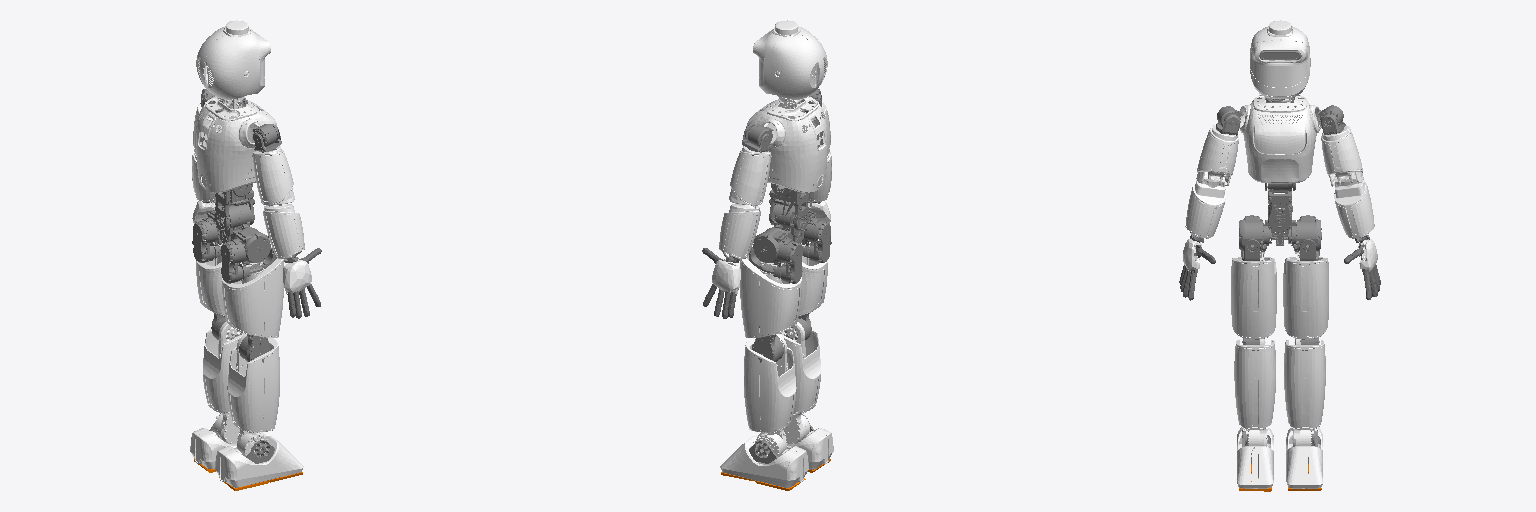
--- Render facts (derived) ---
The picture shows the robot from 3 angles, left to right: view 1: azimuth 30°, elevation 25°; view 2: azimuth 150°, elevation 25°; view 3: azimuth 270°, elevation 25°; orthographic projection.
Model ergoCub with 204 links and 203 joints (57 revolute, 146 fixed), rooted at root_link, posed all joints at 0.
Visible links, largest first — view 1: chest, head, r_lower_leg, r_hip_3, l_lower_leg, r_ankle_2, r_upper_arm, r_forearm, l_hip_3, r_hip_2, l_ankle_2, l_hip_2 (+5 smaller); view 2: chest, head, l_lower_leg, l_hip_3, r_lower_leg, l_ankle_2, l_upper_arm, l_forearm, r_hip_3, l_hip_2, r_ankle_2, r_hip_2 (+5 smaller); view 3: chest, l_lower_leg, r_lower_leg, head, r_hip_3, l_hip_3, r_forearm, l_forearm, r_ankle_2, l_ankle_2, l_upper_arm, r_upper_arm (+4 smaller).
Link boxes in pixels (x1=…): chest: x1=196, y1=96, x2=276, y2=192; head: x1=196, y1=20, x2=270, y2=99; r_lower_leg: x1=227, y1=334, x2=279, y2=455; r_hip_3: x1=222, y1=247, x2=283, y2=337; l_lower_leg: x1=203, y1=322, x2=244, y2=443; r_ankle_2: x1=215, y1=436, x2=303, y2=487; r_upper_arm: x1=253, y1=146, x2=294, y2=205; r_forearm: x1=263, y1=203, x2=304, y2=258; l_hip_3: x1=196, y1=242, x2=230, y2=315; r_hip_2: x1=220, y1=236, x2=274, y2=283; l_ankle_2: x1=190, y1=428, x2=265, y2=468; l_hip_2: x1=193, y1=218, x2=244, y2=262; chest: x1=746, y1=96, x2=827, y2=192; head: x1=753, y1=20, x2=827, y2=99; l_lower_leg: x1=744, y1=334, x2=796, y2=456; l_hip_3: x1=740, y1=255, x2=801, y2=337; r_lower_leg: x1=779, y1=322, x2=820, y2=444; l_ankle_2: x1=720, y1=436, x2=808, y2=487; l_upper_arm: x1=729, y1=146, x2=770, y2=205; l_forearm: x1=719, y1=203, x2=760, y2=258; r_hip_3: x1=790, y1=242, x2=827, y2=315; l_hip_2: x1=749, y1=236, x2=802, y2=283; r_ankle_2: x1=758, y1=428, x2=833, y2=469; r_hip_2: x1=779, y1=218, x2=830, y2=262; chest: x1=1239, y1=95, x2=1320, y2=183; l_lower_leg: x1=1284, y1=339, x2=1325, y2=446; r_lower_leg: x1=1234, y1=339, x2=1275, y2=446; head: x1=1250, y1=20, x2=1310, y2=98; r_hip_3: x1=1231, y1=251, x2=1276, y2=339; l_hip_3: x1=1283, y1=251, x2=1328, y2=339; r_forearm: x1=1185, y1=172, x2=1225, y2=238; l_forearm: x1=1334, y1=172, x2=1374, y2=238; r_ankle_2: x1=1237, y1=427, x2=1273, y2=488; l_ankle_2: x1=1286, y1=427, x2=1322, y2=488; l_upper_arm: x1=1321, y1=125, x2=1363, y2=186; r_upper_arm: x1=1196, y1=125, x2=1238, y2=185.
Bounding box of the posed robot: 0.3003 × 0.6045 × 1.47 m (x, y, z).
Meshes: 66 distinct files referenced, 66 mesh visuals loaded (66 OBJ).

robot.urdf — ergoCub:
<?xml version="1.0"?>
<robot name="ergoCub">
  <link name="root_link">
    <inertial>
      <mass value="2.823751482824641"/>
      <origin xyz="0.0024748962432214403 -1.050794470993344e-4 0.023450368787955644" rpy="0 -0 0"/>
      <inertia ixx="0.005630606285299466" ixy="1.4369039688385168e-6" ixz="2.329934099458601e-5" iyy="0.004380033669258687" iyz="1.4098441290533537e-5" izz="0.003616681010808376"/>
    </inertial>
    <visual>
      <origin xyz="0 0 0" rpy="0 -0 0"/>
      <geometry>
        <mesh filename="package://ergoCub/meshes/simmechanics/sim_ecub_1-1_root_link.obj" scale="0.001 0.001 0.001"/>
      </geometry>
      <material name="">
        <color rgba="0.6 0.6 0.6 1"/>
      </material>
    </visual>
    <collision>
      <origin xyz="0 0 0" rpy="0 -0 0"/>
      <geometry>
        <mesh filename="package://ergoCub/meshes/simmechanics/sim_ecub_1-1_root_link.obj" scale="0.001 0.001 0.001"/>
      </geometry>
      <material name="">
        <color rgba="0.6 0.6 0.6 1"/>
      </material>
    </collision>
  </link>
  <joint name="l_hip_pitch" type="revolute">
    <origin xyz="0.02109999999999964 0.050500000000000836 1.942890293094024e-16" rpy="3.958535957527503e-15 3.810968172190701e-15 1.167434911886406e-16"/>
    <axis xyz="-5.772831379991284e-17 -1 -1.3843833381666392e-17"/>
    <parent link="root_link"/>
    <child link="l_hip_1"/>
    <limit lower="-0.7504915783575618" upper="1.7976891295541595" effort="1e+9" velocity="1e+9"/>
    <dynamics damping="2" friction="0"/>
  </joint>
  <link name="l_hip_1">
    <inertial>
      <mass value="2.231768868859629"/>
      <origin xyz="-0.0040154224851623455 0.028247280560774652 -6.811143992383195e-4" rpy="0 -0 0"/>
      <inertia ixx="0.002210921814931002" ixy="5.971255499379551e-5" ixz="-1.5432160879022988e-5" iyy="0.002695326128467937" iyz="-5.838535051658118e-6" izz="0.0024610381641843883"/>
    </inertial>
    <visual>
      <origin xyz="0 0 0" rpy="0 -0 0"/>
      <geometry>
        <mesh filename="package://ergoCub/meshes/simmechanics/sim_ecub_1-1_l_hip_1.obj" scale="0.001 0.001 0.001"/>
      </geometry>
      <material name="">
        <color rgba="0.6 0.6 0.6 1"/>
      </material>
    </visual>
    <collision>
      <origin xyz="0 0 0" rpy="0 -0 0"/>
      <geometry>
        <mesh filename="package://ergoCub/meshes/simmechanics/sim_ecub_1-1_l_hip_1.obj" scale="0.001 0.001 0.001"/>
      </geometry>
      <material name="">
        <color rgba="0.6 0.6 0.6 1"/>
      </material>
    </collision>
  </link>
  <joint name="r_hip_pitch" type="revolute">
    <origin xyz="0.021099999999999643 -0.05049999999999917 -2.220446049250313e-16" rpy="3.986223624290839e-15 9.012328668422501e-14 4.978996250550603e-17"/>
    <axis xyz="-1.0880513989386065e-16 -1 1.384383338166008e-17"/>
    <parent link="root_link"/>
    <child link="r_hip_1"/>
    <limit lower="-0.7504915783575618" upper="1.7976891295541595" effort="1e+9" velocity="1e+9"/>
    <dynamics damping="2" friction="0"/>
  </joint>
  <link name="r_hip_1">
    <inertial>
      <mass value="2.2320852637398954"/>
      <origin xyz="-0.004032117730258793 -0.028249385885545365 -6.739019720393702e-4" rpy="0 -0 0"/>
      <inertia ixx="0.00221225947743564" ixy="-6.126720536020865e-5" ixz="-1.5035655169601288e-5" iyy="0.002695545891317729" iyz="6.443355522460266e-6" izz="0.0024608876750051726"/>
    </inertial>
    <visual>
      <origin xyz="0 0 0" rpy="0 -0 0"/>
      <geometry>
        <mesh filename="package://ergoCub/meshes/simmechanics/sim_ecub_1-1_r_hip_1.obj" scale="0.001 0.001 0.001"/>
      </geometry>
      <material name="">
        <color rgba="0.6 0.6 0.6 1"/>
      </material>
    </visual>
    <collision>
      <origin xyz="0 0 0" rpy="0 -0 0"/>
      <geometry>
        <mesh filename="package://ergoCub/meshes/simmechanics/sim_ecub_1-1_r_hip_1.obj" scale="0.001 0.001 0.001"/>
      </geometry>
      <material name="">
        <color rgba="0.6 0.6 0.6 1"/>
      </material>
    </collision>
  </link>
  <joint name="torso_roll" type="revolute">
    <origin xyz="-2.23890229767886e-18 -5.551115123142428e-20 0.060500000000000095" rpy="0 -2.2470258116354473e-44 5.656623812198896e-30"/>
    <axis xyz="-1 0 1.4239886692466155e-15"/>
    <parent link="root_link"/>
    <child link="torso_1"/>
    <limit lower="-0.4014257279586958" upper="0.4014257279586958" effort="1e+9" velocity="1e+9"/>
    <dynamics damping="2" friction="0"/>
  </joint>
  <link name="torso_1">
    <inertial>
      <mass value="2.0645667"/>
      <origin xyz="-0.00963997362197503 6.168494736287859e-4 0.08244231288506354" rpy="0 -0 0"/>
      <inertia ixx="0.007406085999999999" ixy="0" ixz="0" iyy="0.0059470732999999994" iyz="0" izz="0.0031780111"/>
    </inertial>
    <visual>
      <origin xyz="0 0 0" rpy="0 -0 0"/>
      <geometry>
        <mesh filename="package://ergoCub/meshes/simmechanics/sim_ecub_1-1_torso_1.obj" scale="0.001 0.001 0.001"/>
      </geometry>
      <material name="">
        <color rgba="0.6 0.6 0.6 1"/>
      </material>
    </visual>
    <collision>
      <origin xyz="0 0 0" rpy="0 -0 0"/>
      <geometry>
        <mesh filename="package://ergoCub/meshes/simmechanics/sim_ecub_1-1_torso_1.obj" scale="0.001 0.001 0.001"/>
      </geometry>
      <material name="">
        <color rgba="0.6 0.6 0.6 1"/>
      </material>
    </collision>
  </link>
  <joint name="torso_pitch" type="revolute">
    <origin xyz="-7.30886630439206e-17 -4.930380657631324e-32 0.11800000000000001" rpy="3.9719461100401744e-15 2.710505431213761e-20 1.0587911275090697e-22"/>
    <axis xyz="1.058791184074231e-22 1 4.336808689942018e-19"/>
    <parent link="torso_1"/>
    <child link="torso_2"/>
    <limit lower="-0.3141592653589793" upper="0.7853981633974483" effort="1e+9" velocity="1e+9"/>
    <dynamics damping="2" friction="0"/>
  </joint>
  <link name="torso_2">
    <inertial>
      <mass value="0.7051627057068411"/>
      <origin xyz="0.0015724674776760373 0.0036223466761378907 0.026019504666210766" rpy="0 -0 0"/>
      <inertia ixx="0.0012590296877101025" ixy="4.1986239270733835e-6" ixz="-5.398163583772818e-6" iyy="6.675525890436374e-4" iyz="7.014302140884287e-5" izz="0.001145822810927014"/>
    </inertial>
    <visual>
      <origin xyz="0 0 0" rpy="0 -0 0"/>
      <geometry>
        <mesh filename="package://ergoCub/meshes/simmechanics/sim_ecub_1-1_torso_2.obj" scale="0.001 0.001 0.001"/>
      </geometry>
      <material name="">
        <color rgba="0.6 0.6 0.6 1"/>
      </material>
    </visual>
    <collision>
      <origin xyz="0 0 0" rpy="0 -0 0"/>
      <geometry>
        <mesh filename="package://ergoCub/meshes/simmechanics/sim_ecub_1-1_torso_2.obj" scale="0.001 0.001 0.001"/>
      </geometry>
      <material name="">
        <color rgba="0.6 0.6 0.6 1"/>
      </material>
    </collision>
  </link>
  <joint name="torso_yaw" type="revolute">
    <origin xyz="7.32502235717738e-17 2.561326957877574e-16 0.0644699999999999" rpy="-3.971868545919581e-15 -4.385099568445115e-23 -3.1763738272196853e-22"/>
    <axis xyz="2.084864385226231e-15 -2.114127025714114e-15 -1"/>
    <parent link="torso_2"/>
    <child link="chest"/>
    <limit lower="-0.7504915783575618" upper="0.7504915783575618" effort="1e+9" velocity="1e+9"/>
    <dynamics damping="2" friction="0"/>
  </joint>
  <link name="chest">
    <inertial>
      <mass value="8.065471632648594"/>
      <origin xyz="-0.010721051678060345 -3.482064053382885e-4 0.07611063517438793" rpy="0 -0 0"/>
      <inertia ixx="0.048454754024617776" ixy="1.7611941682820642e-4" ixz="-3.124089280569708e-4" iyy="0.044938830524554475" iyz="-1.2962048932614557e-4" izz="0.030687687298016447"/>
    </inertial>
    <visual>
      <origin xyz="0 0 0" rpy="0 -0 0"/>
      <geometry>
        <mesh filename="package://ergoCub/meshes/simmechanics/sim_ecub_1-1_chest.obj" scale="0.001 0.001 0.001"/>
      </geometry>
      <material name="">
        <color rgba="1 1 1 1"/>
      </material>
    </visual>
    <collision>
      <origin xyz="0 0 0" rpy="0 -0 0"/>
      <geometry>
        <mesh filename="package://ergoCub/meshes/simmechanics/sim_ecub_1-1_chest.obj" scale="0.001 0.001 0.001"/>
      </geometry>
      <material name="">
        <color rgba="1 1 1 1"/>
      </material>
    </collision>
  </link>
  <joint name="neck_pitch" type="revolute">
    <origin xyz="0.004861512347971912 4.1253975310307907e-16 0.22529999999999994" rpy="-1.541978321110266e-15 -2.0480667158215426e-15 -1.389802281096855e-15"/>
    <axis xyz="2.6472211157644926e-18 -1 -7.807858529815144e-16"/>
    <parent link="chest"/>
    <child link="neck_2"/>
    <limit lower="-0.5235987755982988" upper="0.3839724354387525" effort="1e+9" velocity="1e+9"/>
    <dynamics damping="2" friction="0"/>
  </joint>
  <link name="neck_2">
    <inertial>
      <mass value="0.12100314943032965"/>
      <origin xyz="-0.006305773955890982 3.0141314376407138e-5 0.006373188453183354" rpy="0 -0 0"/>
      <inertia ixx="4.5383766592166864e-5" ixy="-9.375752008423039e-8" ixz="8.622664755132213e-6" iyy="3.848306673536227e-5" iyz="4.870043501244136e-8" izz="3.7535538604448367e-5"/>
    </inertial>
    <visual>
      <origin xyz="0 0 0" rpy="0 -0 0"/>
      <geometry>
        <mesh filename="package://ergoCub/meshes/simmechanics/sim_ecub_1-1_head_neck_2.obj" scale="0.001 0.001 0.001"/>
      </geometry>
      <material name="">
        <color rgba="0.6 0.6 0.6 1"/>
      </material>
    </visual>
    <collision>
      <origin xyz="0 0 0" rpy="0 -0 0"/>
      <geometry>
        <mesh filename="package://ergoCub/meshes/simmechanics/sim_ecub_1-1_head_neck_2.obj" scale="0.001 0.001 0.001"/>
      </geometry>
      <material name="">
        <color rgba="0.6 0.6 0.6 1"/>
      </material>
    </collision>
  </link>
  <joint name="l_shoulder_pitch" type="revolute">
    <origin xyz="-0.013518676842610159 0.06704761117227499 0.12351981080941767" rpy="0.2536123238732541 -0.05203160550449479 -0.27527873241387235"/>
    <axis xyz="-3.452099717193846e-16 1.0000000000000002 3.0531133177191805e-16"/>
    <parent link="chest"/>
    <child link="l_shoulder_1"/>
    <limit lower="-2.9670597283903604" upper="0.6108652381980153" effort="1e+9" velocity="1e+9"/>
    <dynamics damping="2" friction="0"/>
  </joint>
  <link name="l_shoulder_1">
    <inertial>
      <mass value="0.7913756606310043"/>
      <origin xyz="1.4824275422014796e-4 0.06782971819041986 5.036196460999898e-4" rpy="0 -0 0"/>
      <inertia ixx="0.01" ixy="0" ixz="0" iyy="0.01" iyz="0" izz="0.01"/>
    </inertial>
    <visual>
      <origin xyz="0 0 0" rpy="0 -0 0"/>
      <geometry>
        <mesh filename="package://ergoCub/meshes/simmechanics/sim_ecub_1-1_l_shoulder_1.obj" scale="0.001 0.001 0.001"/>
      </geometry>
      <material name="">
        <color rgba="0.6 0.6 0.6 1"/>
      </material>
    </visual>
    <collision>
      <origin xyz="0 0 0" rpy="0 -0 0"/>
      <geometry>
        <mesh filename="package://ergoCub/meshes/simmechanics/sim_ecub_1-1_l_shoulder_1.obj" scale="0.001 0.001 0.001"/>
      </geometry>
      <material name="">
        <color rgba="0.6 0.6 0.6 1"/>
      </material>
    </collision>
  </link>
  <joint name="r_shoulder_pitch" type="revolute">
    <origin xyz="-0.013518676842610352 -0.06704761117227452 0.12351981080941783" rpy="-0.25361232387326116 -0.05203160550449495 0.2752787324138702"/>
    <axis xyz="-2.445960101127298e-16 1 3.552713678800501e-15"/>
    <parent link="chest"/>
    <child link="r_shoulder_1"/>
    <limit lower="-2.9670597283903604" upper="0.6108652381980153" effort="1e+9" velocity="1e+9"/>
    <dynamics damping="2" friction="0"/>
  </joint>
  <link name="r_shoulder_1">
    <inertial>
      <mass value="0.7922822880502421"/>
      <origin xyz="1.7243569867328445e-4 -0.06784040318161474 4.7600094527533443e-4" rpy="0 -0 0"/>
      <inertia ixx="0.01" ixy="0" ixz="0" iyy="0.01" iyz="0" izz="0.01"/>
    </inertial>
    <visual>
      <origin xyz="0 0 0" rpy="0 -0 0"/>
      <geometry>
        <mesh filename="package://ergoCub/meshes/simmechanics/sim_ecub_1-1_r_shoulder_1.obj" scale="0.001 0.001 0.001"/>
      </geometry>
      <material name="">
        <color rgba="0.6 0.6 0.6 1"/>
      </material>
    </visual>
    <collision>
      <origin xyz="0 0 0" rpy="0 -0 0"/>
      <geometry>
        <mesh filename="package://ergoCub/meshes/simmechanics/sim_ecub_1-1_r_shoulder_1.obj" scale="0.001 0.001 0.001"/>
      </geometry>
      <material name="">
        <color rgba="0.6 0.6 0.6 1"/>
      </material>
    </collision>
  </link>
  <joint name="r_shoulder_roll" type="revolute">
    <origin xyz="0.007499999999999977 -0.09330000000000004 -3.885780586188048e-16" rpy="-9.325873406851307e-15 9.520162436160717e-15 -4.718447854656912e-15"/>
    <axis xyz="-1.0000000000000007 8.760353553682006e-16 -4.510281037539194e-16"/>
    <parent link="r_shoulder_1"/>
    <child link="r_shoulder_2"/>
    <limit lower="-0.2617993877991494" upper="2.6179938779914944" effort="1e+9" velocity="1e+9"/>
    <dynamics damping="2" friction="0"/>
  </joint>
  <link name="r_shoulder_2">
    <inertial>
      <mass value="0.4392272062642899"/>
      <origin xyz="0.005113618901434032 -2.13348557806331e-4 -0.020425805469504787" rpy="0 -0 0"/>
      <inertia ixx="0.01" ixy="0" ixz="0" iyy="0.01" iyz="0" izz="0.01"/>
    </inertial>
    <visual>
      <origin xyz="0 0 0" rpy="0 -0 0"/>
      <geometry>
        <mesh filename="package://ergoCub/meshes/simmechanics/sim_ecub_1-1_r_shoulder_2.obj" scale="0.001 0.001 0.001"/>
      </geometry>
      <material name="">
        <color rgba="0.6 0.6 0.6 1"/>
      </material>
    </visual>
    <collision>
      <origin xyz="0 0 0" rpy="0 -0 0"/>
      <geometry>
        <mesh filename="package://ergoCub/meshes/simmechanics/sim_ecub_1-1_r_shoulder_2.obj" scale="0.001 0.001 0.001"/>
      </geometry>
      <material name="">
        <color rgba="0.6 0.6 0.6 1"/>
      </material>
    </collision>
  </link>
  <joint name="r_arm_ft_sensor" type="fixed">
    <origin xyz="-0.006850000000000004 -5.551115123125783e-17 -0.054300000000000015" rpy="-2.220446049250312e-16 -2.3592239273284576e-16 1.6098233857064762e-15"/>
    <parent link="r_shoulder_2"/>
    <child link="r_shoulder_3"/>
  </joint>
  <link name="r_shoulder_3">
    <inertial>
      <mass value="0.271466272759966"/>
      <origin xyz="-8.31167799586717e-5 -3.0654831449927755e-5 -0.007966545320293866" rpy="0 -0 0"/>
      <inertia ixx="0.01" ixy="0" ixz="0" iyy="0.01" iyz="0" izz="0.01"/>
    </inertial>
    <visual>
      <origin xyz="0 0 0" rpy="0 -0 0"/>
      <geometry>
        <mesh filename="package://ergoCub/meshes/simmechanics/sim_ecub_1-1_r_shoulder_3.obj" scale="0.001 0.001 0.001"/>
      </geometry>
      <material name="">
        <color rgba="0.6 0.6 0.6 1"/>
      </material>
    </visual>
    <collision>
      <origin xyz="0 0 0" rpy="0 -0 0"/>
      <geometry>
        <mesh filename="package://ergoCub/meshes/simmechanics/sim_ecub_1-1_r_shoulder_3.obj" scale="0.001 0.001 0.001"/>
      </geometry>
      <material name="">
        <color rgba="0.6 0.6 0.6 1"/>
      </material>
    </collision>
  </link>
  <joint name="r_shoulder_yaw" type="revolute">
    <origin xyz="-7.979727989493313e-17 5.551115123125783e-17 -0.02249999999999998" rpy="-5.55111512312578e-17 -3.0531133177191805e-16 7.660538869913577e-15"/>
    <axis xyz="2.567390744445681e-16 2.775557561562927e-17 1.0000000000000004"/>
    <parent link="r_shoulder_3"/>
    <child link="r_upper_arm"/>
    <limit lower="-0.8726646259971648" upper="1.3962634015954636" effort="1e+9" velocity="1e+9"/>
    <dynamics damping="2" friction="0"/>
  </joint>
  <link name="r_upper_arm">
    <inertial>
      <mass value="1.7722348545631907"/>
      <origin xyz="1.4699786491786937e-4 -0.0023354938418406186 -0.05011711267210951" rpy="0 -0 0"/>
      <inertia ixx="0.0034219198528275844" ixy="3.081029189714289e-5" ixz="2.5743017599563002e-5" iyy="0.003510878854314856" iyz="-1.0938393403810045e-4" izz="0.0015765483711818404"/>
    </inertial>
    <visual>
      <origin xyz="0 0 0" rpy="0 -0 0"/>
      <geometry>
        <mesh filename="package://ergoCub/meshes/simmechanics/sim_ecub_1-1_r_upperarm.obj" scale="0.001 0.001 0.001"/>
      </geometry>
      <material name="">
        <color rgba="1 1 1 1"/>
      </material>
    </visual>
    <collision>
      <origin xyz="0 0 0" rpy="0 -0 0"/>
      <geometry>
        <mesh filename="package://ergoCub/meshes/simmechanics/sim_ecub_1-1_r_upperarm.obj" scale="0.001 0.001 0.001"/>
      </geometry>
      <material name="">
        <color rgba="1 1 1 1"/>
      </material>
    </collision>
  </link>
  <joint name="r_elbow" type="revolute">
    <origin xyz="0.01000000000000002 0.0015000000000005287 -0.12369999999999992" rpy="-4.1633363423443286e-16 -5.842548667089886e-15 -8.326672684688652e-15"/>
    <axis xyz="3.001071613439684e-16 -1.0000000000000027 1.2712053631958044e-14"/>
    <parent link="r_upper_arm"/>
    <child link="r_forearm"/>
    <limit lower="-0.05235987755982989" upper="1.3089969389957472" effort="1e+9" velocity="1e+9"/>
    <dynamics damping="2" friction="0"/>
  </joint>
  <link name="r_forearm">
    <inertial>
      <mass value="1.4760712424977045"/>
      <origin xyz="-0.01830687629472739 -0.002214887320910963 -0.08814943647449926" rpy="0 -0 0"/>
      <inertia ixx="0.009999999999999998" ixy="0" ixz="0" iyy="0.01" iyz="0" izz="0.01"/>
    </inertial>
    <visual>
      <origin xyz="0 0 0" rpy="0 -0 0"/>
      <geometry>
        <mesh filename="package://ergoCub/meshes/simmechanics/sim_ecub_1-1_r_forearm.obj" scale="0.001 0.001 0.001"/>
      </geometry>
      <material name="">
        <color rgba="1 1 1 1"/>
      </material>
    </visual>
    <collision>
      <origin xyz="0 0 0" rpy="0 -0 0"/>
      <geometry>
        <mesh filename="package://ergoCub/meshes/simmechanics/sim_ecub_1-1_r_forearm.obj" scale="0.001 0.001 0.001"/>
      </geometry>
      <material name="">
        <color rgba="1 1 1 1"/>
      </material>
    </collision>
  </link>
  <joint name="r_wrist_yaw" type="revolute">
    <origin xyz="-0.014999999999999767 -0.0019999999999965323 -0.1943500000000011" rpy="-2.081668171172164e-15 -1.1587952819525071e-14 -2.997602166487915e-15"/>
    <axis xyz="5.5788706987414416e-15 -1.2628786905111175e-14 1.000000000000002"/>
    <parent link="r_forearm"/>
    <child link="r_wrist_1"/>
    <limit lower="-1.6057029118347832" upper="1.6057029118347832" effort="1e+9" velocity="1e+9"/>
    <dynamics damping="2" friction="0"/>
  </joint>
  <link name="r_wrist_1">
    <inertial>
      <mass value="0.12269276206782376"/>
      <origin xyz="-1.4544607175177166e-4 1.559247070407055e-4 0.022377800821402394" rpy="0 -0 0"/>
      <inertia ixx="0.01" ixy="0" ixz="0" iyy="0.01" iyz="0" izz="0.01"/>
    </inertial>
    <visual>
      <origin xyz="0 0 0" rpy="0 -0 0"/>
      <geometry>
        <mesh filename="package://ergoCub/meshes/simmechanics/sim_ecub_1-1_r_wrist_1.obj" scale="0.001 0.001 0.001"/>
      </geometry>
      <material name="">
        <color rgba="0.6 0.6 0.6 1"/>
      </material>
    </visual>
    <collision>
      <origin xyz="0 0 0" rpy="0 -0 0"/>
      <geometry>
        <mesh filename="package://ergoCub/meshes/simmechanics/sim_ecub_1-1_r_wrist_1.obj" scale="0.001 0.001 0.001"/>
      </geometry>
      <material name="">
        <color rgba="0.6 0.6 0.6 1"/>
      </material>
    </collision>
  </link>
  <joint name="r_wrist_roll" type="revolute">
    <origin xyz="1.4224732503009818e-16 2.498001805406602e-16 1.3877787807814457e-16" rpy="3.8857805861880484e-16 5.551115123125783e-17 -1.6653345369377353e-16"/>
    <axis xyz="0.9999999999999997 -2.480654570646835e-16 -1.873501354054953e-16"/>
    <parent link="r_wrist_1"/>
    <child link="r_wrist_2"/>
    <limit lower="-1.0821041362364843" upper="0.9075712110370514" effort="1e+9" velocity="1e+9"/>
    <dynamics damping="2" friction="0"/>
  </joint>
  <link name="r_wrist_2">
    <inertial>
      <mass value="0.021188357245777188"/>
      <origin xyz="5.05499045400093e-11 7.897372606293362e-4 -0.004696960055006527" rpy="0 -0 0"/>
      <inertia ixx="0.01" ixy="0" ixz="0" iyy="0.01" iyz="0" izz="0.01"/>
    </inertial>
    <visual>
      <origin xyz="0 0 0" rpy="0 -0 0"/>
      <geometry>
        <mesh filename="package://ergoCub/meshes/simmechanics/sim_ecub_1-1_r_wrist_2.obj" scale="0.001 0.001 0.001"/>
      </geometry>
      <material name="">
        <color rgba="0.5 0.5 0.5 1"/>
      </material>
    </visual>
    <collision>
      <origin xyz="0 0 0" rpy="0 -0 0"/>
      <geometry>
        <mesh filename="package://ergoCub/meshes/simmechanics/sim_ecub_1-1_r_wrist_2.obj" scale="0.001 0.001 0.001"/>
      </geometry>
      <material name="">
        <color rgba="0.5 0.5 0.5 1"/>
      </material>
    </collision>
  </link>
  <joint name="r_wrist_pitch" type="revolute">
    <origin xyz="-4.85722573273506e-17 0 2.7755575615628914e-17" rpy="2.2204460492503136e-16 -5.551115123125783e-17 -3.88578058618805e-16"/>
    <axis xyz="4.128641872824801e-16 -0.9999999999999998 -8.049116928532385e-16"/>
    <parent link="r_wrist_2"/>
    <child link="r_hand_palm"/>
    <limit lower="-0.5585053606381855" upper="0.5585053606381855" effort="1e+9" velocity="1e+9"/>
    <dynamics damping="2" friction="0"/>
  </joint>
  <link name="r_hand_palm">
    <inertial>
      <mass value="0.2020068404688116"/>
      <origin xyz="-0.003982157972782507 -0.0021135289059891482 -0.05842371394186491" rpy="0 -0 0"/>
      <inertia ixx="0.01" ixy="0" ixz="0" iyy="0.01" iyz="0" izz="0.01"/>
    </inertial>
    <visual>
      <origin xyz="0 0 0" rpy="0 -0 0"/>
      <geometry>
        <mesh filename="package://ergoCub/meshes/simmechanics/sim_ecub_1-1_r_hand_palm.obj" scale="0.001 0.001 0.001"/>
      </geometry>
      <material name="">
        <color rgba="1 1 1 1"/>
      </material>
    </visual>
    <collision>
      <origin xyz="0 0 0" rpy="0 -0 0"/>
      <geometry>
        <mesh filename="package://ergoCub/meshes/simmechanics/sim_ecub_1-1_r_hand_palm.obj" scale="0.001 0.001 0.001"/>
      </geometry>
      <material name="">
        <color rgba="1 1 1 1"/>
      </material>
    </collision>
  </link>
  <joint name="r_index_add" type="revolute">
    <origin xyz="0.022499999999999992 0.0015000000000002234 -0.06859999999999983" rpy="-1.6833790438334957e-15 0.29670597283904 3.141592653589792"/>
    <axis xyz="-5.389323627044831e-16 -0.9999999999999999 1.6046911875538946e-15"/>
    <parent link="r_hand_palm"/>
    <child link="r_hand_index_1"/>
    <limit lower="0" upper="0.2617993877991494" effort="1e+9" velocity="1e+9"/>
    <dynamics damping="2" friction="0"/>
  </joint>
  <link name="r_hand_index_1">
    <inertial>
      <mass value="0.019232477290189804"/>
      <origin xyz="-0.008420124408709713 0.003850331678233287 -0.01714942611279774" rpy="0 -0 0"/>
      <inertia ixx="0.01" ixy="0" ixz="0" iyy="0.01" iyz="0" izz="0.01"/>
    </inertial>
    <visual>
      <origin xyz="0 0 0" rpy="0 -0 0"/>
      <geometry>
        <mesh filename="package://ergoCub/meshes/simmechanics/sim_ecub_1-1_r_hand_index_1.obj" scale="0.001 0.001 0.001"/>
      </geometry>
      <material name="">
        <color rgba="0.5 0.5 0.5 1"/>
      </material>
    </visual>
    <collision>
      <origin xyz="0 0 0" rpy="0 -0 0"/>
      <geometry>
        <mesh filename="package://ergoCub/meshes/simmechanics/sim_ecub_1-1_r_hand_index_1.obj" scale="0.001 0.001 0.001"/>
      </geometry>
      <material name="">
        <color rgba="0.5 0.5 0.5 1"/>
      </material>
    </collision>
  </link>
  <joint name="r_middle_prox" type="revolute">
    <origin xyz="0.009599999988882939 0.00150000000000039 -0.1030000000010361" rpy="-1.8596235662471376e-15 -1.0793124727292991e-10 3.1415926535897927"/>
    <axis xyz="-0.9999999999999996 -4.562322741819007e-15 1.079337105802658e-10"/>
    <parent link="r_hand_palm"/>
    <child link="r_hand_middle_1"/>
    <limit lower="0" upper="1.5707963267948966" effort="1e+9" velocity="1e+9"/>
    <dynamics damping="2" friction="0"/>
  </joint>
  <link name="r_hand_middle_1">
    <inertial>
      <mass value="0.007486365997467528"/>
      <origin xyz="5.610258533731913e-5 0.0011131046827904112 -0.01742880983276912" rpy="0 -0 0"/>
      <inertia ixx="0.01" ixy="0" ixz="0" iyy="0.01" iyz="0" izz="0.01"/>
    </inertial>
    <visual>
      <origin xyz="0 0 0" rpy="0 -0 0"/>
      <geometry>
        <mesh filename="package://ergoCub/meshes/simmechanics/sim_ecub_1-1_r_hand_middle_1.obj" scale="0.001 0.001 0.001"/>
      </geometry>
      <material name="">
        <color rgba="0.5 0.5 0.5 1"/>
      </material>
    </visual>
    <collision>
      <origin xyz="0 0 0" rpy="0 -0 0"/>
      <geometry>
        <mesh filename="package://ergoCub/meshes/simmechanics/sim_ecub_1-1_r_hand_middle_1.obj" scale="0.001 0.001 0.001"/>
      </geometry>
      <material name="">
        <color rgba="0.5 0.5 0.5 1"/>
      </material>
    </collision>
  </link>
  <joint name="r_pinkie_prox" type="revolute">
    <origin xyz="-0.035982680943166166 0.002377759579109573 -0.09206828131946371" rpy="4.1095343980510334e-4 -0.08726646259972864 3.1154127148098776"/>
    <axis xyz="-0.9999999999999998 4.364801434782878e-15 0"/>
    <parent link="r_hand_palm"/>
    <child link="r_hand_pinkie_1"/>
    <limit lower="0" upper="1.5707963267948966" effort="1e+9" velocity="1e+9"/>
    <dynamics damping="2" friction="0"/>
  </joint>
  <link name="r_hand_pinkie_1">
    <inertial>
      <mass value="0.006357585733638135"/>
      <origin xyz="3.616260147435227e-5 0.0012147050941129778 -0.015053109692718447" rpy="0 -0 0"/>
      <inertia ixx="0.01" ixy="0" ixz="0" iyy="0.01" iyz="0" izz="0.01"/>
    </inertial>
    <visual>
      <origin xyz="0 0 0" rpy="0 -0 0"/>
      <geometry>
        <mesh filename="package://ergoCub/meshes/simmechanics/sim_ecub_1-1_r_hand_pinkie_1.obj" scale="0.001 0.001 0.001"/>
      </geometry>
      <material name="">
        <color rgba="0.5 0.5 0.5 1"/>
      </material>
    </visual>
    <collision>
      <origin xyz="0 0 0" rpy="0 -0 0"/>
      <geometry>
        <mesh filename="package://ergoCub/meshes/simmechanics/sim_ecub_1-1_r_hand_pinkie_1.obj" scale="0.001 0.001 0.001"/>
      </geometry>
      <material name="">
        <color rgba="0.5 0.5 0.5 1"/>
      </material>
    </collision>
  </link>
  <joint name="r_ring_prox" type="revolute">
    <origin xyz="-0.015417755568684424 0.001849813728471178 -0.09788067183717986" rpy="2.019965811910767e-14 -0.08726646270762471 3.11541271480963"/>
    <axis xyz="-0.9999999999999997 -2.498435601042699e-13 1.0789123761067998e-10"/>
    <parent link="r_hand_palm"/>
    <child link="r_hand_ring_1"/>
    <limit lower="0" upper="1.5707963267948966" effort="1e+9" velocity="1e+9"/>
    <dynamics damping="2" friction="0"/>
  </joint>
  <link name="r_hand_ring_1">
    <inertial>
      <mass value="0.007486365997467528"/>
      <origin xyz="5.6102585337293107e-5 0.0011131045999587252 -0.017428809839565573" rpy="0 -0 0"/>
      <inertia ixx="0.01" ixy="0" ixz="0" iyy="0.01" iyz="0" izz="0.01"/>
    </inertial>
    <visual>
      <origin xyz="0 0 0" rpy="0 -0 0"/>
      <geometry>
        <mesh filename="package://ergoCub/meshes/simmechanics/sim_ecub_1-1_r_hand_ring_1.obj" scale="0.001 0.001 0.001"/>
      </geometry>
      <material name="">
        <color rgba="0.5 0.5 0.5 1"/>
      </material>
    </visual>
    <collision>
      <origin xyz="0 0 0" rpy="0 -0 0"/>
      <geometry>
        <mesh filename="package://ergoCub/meshes/simmechanics/sim_ecub_1-1_r_hand_ring_1.obj" scale="0.001 0.001 0.001"/>
      </geometry>
      <material name="">
        <color rgba="0.5 0.5 0.5 1"/>
      </material>
    </collision>
  </link>
  <joint name="r_thumb_add" type="revolute">
    <origin xyz="0.023374863252664337 0.003000000000000058 -0.03452383847607743" rpy="1.566711369727914e-15 -0.226892802651332 -5.127419028200447e-16"/>
    <axis xyz="-1.0793213545134961e-10 2.4089270891491094e-15 0.9999999999999998"/>
    <parent link="r_hand_palm"/>
    <child link="r_hand_thumb_1"/>
    <limit lower="0" upper="1.7453292519943295" effort="1e+9" velocity="1e+9"/>
    <dynamics damping="2" friction="0"/>
  </joint>
  <link name="r_hand_thumb_1">
    <inertial>
      <mass value="0.02894174189037044"/>
      <origin xyz="0.0183756324403817 -4.55521018183358e-5 0.002126473485347669" rpy="0 -0 0"/>
      <inertia ixx="0.01" ixy="0" ixz="0" iyy="0.01" iyz="0" izz="0.01"/>
    </inertial>
    <visual>
      <origin xyz="0 0 0" rpy="0 -0 0"/>
      <geometry>
        <mesh filename="package://ergoCub/meshes/simmechanics/sim_ecub_1-1_r_hand_thumb_1.obj" scale="0.001 0.001 0.001"/>
      </geometry>
      <material name="">
        <color rgba="0.5 0.5 0.5 1"/>
      </material>
    </visual>
    <collision>
      <origin xyz="0 0 0" rpy="0 -0 0"/>
      <geometry>
        <mesh filename="package://ergoCub/meshes/simmechanics/sim_ecub_1-1_r_hand_thumb_1.obj" scale="0.001 0.001 0.001"/>
      </geometry>
      <material name="">
        <color rgba="0.5 0.5 0.5 1"/>
      </material>
    </collision>
  </link>
  <joint name="r_thumb_prox" type="revolute">
    <origin xyz="0.0380746544995605 0.003469109580325286 -0.0036017448035497446" rpy="-1.7697290685198344 -0.13749152761469902 -2.965379613992927"/>
    <axis xyz="9.992007221626409e-16 -1.1102230246251565e-15 -0.9999999999999997"/>
    <parent link="r_hand_thumb_1"/>
    <child link="r_hand_thumb_2"/>
    <limit lower="0" upper="1.5707963267948966" effort="1e+9" velocity="1e+9"/>
    <dynamics damping="2" friction="0"/>
  </joint>
  <link name="r_hand_thumb_2">
    <inertial>
      <mass value="0.00669603218404702"/>
      <origin xyz="-0.014887264468035837 -0.0011329726380328586 6.26600593671145e-5" rpy="0 -0 0"/>
      <inertia ixx="0.01" ixy="0" ixz="0" iyy="0.01" iyz="0" izz="0.01"/>
    </inertial>
    <visual>
      <origin xyz="0 0 0" rpy="0 -0 0"/>
      <geometry>
        <mesh filename="package://ergoCub/meshes/simmechanics/sim_ecub_1-1_r_hand_thumb_2.obj" scale="0.001 0.001 0.001"/>
      </geometry>
      <material name="">
        <color rgba="0.5 0.5 0.5 1"/>
      </material>
    </visual>
    <collision>
      <origin xyz="0 0 0" rpy="0 -0 0"/>
      <geometry>
        <mesh filename="package://ergoCub/meshes/simmechanics/sim_ecub_1-1_r_hand_thumb_2.obj" scale="0.001 0.001 0.001"/>
      </geometry>
      <material name="">
        <color rgba="0.5 0.5 0.5 1"/>
      </material>
    </collision>
  </link>
  <joint name="r_thumb_dist" type="revolute">
    <origin xyz="-0.035000000003687984 0.0014999999936707586 -1.0737244426906045e-12" rpy="-1.87424381570267e-11 1.845751329554446e-11 3.1415926535883125"/>
    <axis xyz="1.8458673825549887e-11 1.8743298579870785e-11 -0.9999999999999999"/>
    <parent link="r_hand_thumb_2"/>
    <child link="r_hand_thumb_3"/>
    <limit lower="0" upper="1.7697638615222502" effort="1e+9" velocity="1e+9"/>
    <dynamics damping="2" friction="0"/>
  </joint>
  <link name="r_hand_thumb_3">
    <inertial>
      <mass value="0.00683159462238797"/>
      <origin xyz="0.016086236544425966 0.0026526877650291103 4.703179416121195e-5" rpy="0 -0 0"/>
      <inertia ixx="0.01" ixy="0" ixz="0" iyy="0.01" iyz="0" izz="0.01"/>
    </inertial>
    <visual>
      <origin xyz="0 0 0" rpy="0 -0 0"/>
      <geometry>
        <mesh filename="package://ergoCub/meshes/simmechanics/sim_ecub_1-1_r_hand_thumb_3.obj" scale="0.001 0.001 0.001"/>
      </geometry>
      <material name="">
        <color rgba="0.5 0.5 0.5 1"/>
      </material>
    </visual>
    <collision>
      <origin xyz="0 0 0" rpy="0 -0 0"/>
      <geometry>
        <mesh filename="package://ergoCub/meshes/simmechanics/sim_ecub_1-1_r_hand_thumb_3.obj" scale="0.001 0.001 0.001"/>
      </geometry>
      <material name="">
        <color rgba="0.5 0.5 0.5 1"/>
      </material>
    </collision>
  </link>
  <joint name="r_ring_dist" type="revolute">
    <origin xyz="-1.498102770308707e-11 -0.0015000000002765024 -0.040000000000737446" rpy="-5.828670879282074e-16 1.0789557441936992e-10 2.461919557106285e-13"/>
    <axis xyz="-0.9999999999999999 2.4672971998818127e-13 -1.0789569585001324e-10"/>
    <parent link="r_hand_ring_1"/>
    <child link="r_hand_ring_2"/>
    <limit lower="0" upper="1.7994344588061537" effort="1e+9" velocity="1e+9"/>
    <dynamics damping="2" friction="0"/>
  </joint>
  <link name="r_hand_ring_2">
    <inertial>
      <mass value="0.007251413355667432"/>
      <origin xyz="4.43251343077225e-5 0.00275470906266162 -0.018890876418029168" rpy="0 -0 0"/>
      <inertia ixx="0.01" ixy="0" ixz="0" iyy="0.01" iyz="0" izz="0.01"/>
    </inertial>
    <visual>
      <origin xyz="0 0 0" rpy="0 -0 0"/>
      <geometry>
        <mesh filename="package://ergoCub/meshes/simmechanics/sim_ecub_1-1_r_hand_ring_2.obj" scale="0.001 0.001 0.001"/>
      </geometry>
      <material name="">
        <color rgba="0.5 0.5 0.5 1"/>
      </material>
    </visual>
    <collision>
      <origin xyz="0 0 0" rpy="0 -0 0"/>
      <geometry>
        <mesh filename="package://ergoCub/meshes/simmechanics/sim_ecub_1-1_r_hand_ring_2.obj" scale="0.001 0.001 0.001"/>
      </geometry>
      <material name="">
        <color rgba="0.5 0.5 0.5 1"/>
      </material>
    </collision>
  </link>
  <joint name="r_pinkie_dist" type="revolute">
    <origin xyz="4.5102810375396984e-17 -0.001514193309379297 -0.03499938883211873" rpy="-0.0012956915198213642 -1.8735013540549517e-16 -2.775557561562892e-16"/>
    <axis xyz="-0.9999999999999999 9.036247971209683e-16 -2.4586692098222613e-15"/>
    <parent link="r_hand_pinkie_1"/>
    <child link="r_hand_pinkie_2"/>
    <limit lower="0" upper="1.7226399717184033" effort="1e+9" velocity="1e+9"/>
    <dynamics damping="2" friction="0"/>
  </joint>
  <link name="r_hand_pinkie_2">
    <inertial>
      <mass value="0.007240237490764073"/>
      <origin xyz="2.1391072559044655e-5 0.0027712863562942003 -0.018930305880602127" rpy="0 -0 0"/>
      <inertia ixx="0.01" ixy="0" ixz="0" iyy="0.01" iyz="0" izz="0.01"/>
    </inertial>
    <visual>
      <origin xyz="0 0 0" rpy="0 -0 0"/>
      <geometry>
        <mesh filename="package://ergoCub/meshes/simmechanics/sim_ecub_1-1_r_hand_pinkie_2.obj" scale="0.001 0.001 0.001"/>
      </geometry>
      <material name="">
        <color rgba="0.5 0.5 0.5 1"/>
      </material>
    </visual>
    <collision>
      <origin xyz="0 0 0" rpy="0 -0 0"/>
      <geometry>
        <mesh filename="package://ergoCub/meshes/simmechanics/sim_ecub_1-1_r_hand_pinkie_2.obj" scale="0.001 0.001 0.001"/>
      </geometry>
      <material name="">
        <color rgba="0.5 0.5 0.5 1"/>
      </material>
    </collision>
  </link>
  <joint name="r_middle_dist" type="revolute">
    <origin xyz="-1.5434174771566944e-11 -0.0014999999999999736 -0.0399999999989637" rpy="-7.535550930470877e-8 1.0793281546295219e-10 0"/>
    <axis xyz="-0.9999999999999998 -2.0695253452753748e-15 -1.0792969296086812e-10"/>
    <parent link="r_hand_middle_1"/>
    <child link="r_hand_middle_2"/>
    <limit lower="0" upper="1.7994344588061537" effort="1e+9" velocity="1e+9"/>
    <dynamics damping="2" friction="0"/>
  </joint>
  <link name="r_hand_middle_2">
    <inertial>
      <mass value="0.007251413355667432"/>
      <origin xyz="4.432513430769475e-5 0.0027547091926723166 -0.018890876399070666" rpy="0 -0 0"/>
      <inertia ixx="0.01" ixy="0" ixz="0" iyy="0.01" iyz="0" izz="0.01"/>
    </inertial>
    <visual>
      <origin xyz="0 0 0" rpy="0 -0 0"/>
      <geometry>
        <mesh filename="package://ergoCub/meshes/simmechanics/sim_ecub_1-1_r_hand_middle_2.obj" scale="0.001 0.001 0.001"/>
      </geometry>
      <material name="">
        <color rgba="0.5 0.5 0.5 1"/>
      </material>
    </visual>
    <collision>
      <origin xyz="0 0 0" rpy="0 -0 0"/>
      <geometry>
        <mesh filename="package://ergoCub/meshes/simmechanics/sim_ecub_1-1_r_hand_middle_2.obj" scale="0.001 0.001 0.001"/>
      </geometry>
      <material name="">
        <color rgba="0.5 0.5 0.5 1"/>
      </material>
    </collision>
  </link>
  <joint name="r_index_prox" type="revolute">
    <origin xyz="-0.009192533317427393 5.551115123125783e-17 -0.030713451316238316" rpy="-3.0531133177191805e-16 -2.0816681711721685e-17 0"/>
    <axis xyz="-0.9999999999999993 3.434752482434078e-15 -1.672273430841644e-15"/>
    <parent link="r_hand_index_1"/>
    <child link="r_hand_index_2"/>
    <limit lower="0" upper="1.5707963267948966" effort="1e+9" velocity="1e+9"/>
    <dynamics damping="2" friction="0"/>
  </joint>
  <link name="r_hand_index_2">
    <inertial>
      <mass value="0.007486365997467528"/>
      <origin xyz="5.610258533736423e-5 0.0011131050125119946 -0.01742880980571504" rpy="0 -0 0"/>
      <inertia ixx="0.01" ixy="0" ixz="0" iyy="0.01" iyz="0" izz="0.01"/>
    </inertial>
    <visual>
      <origin xyz="0 0 0" rpy="0 -0 0"/>
      <geometry>
        <mesh filename="package://ergoCub/meshes/simmechanics/sim_ecub_1-1_r_hand_index_2.obj" scale="0.001 0.001 0.001"/>
      </geometry>
      <material name="">
        <color rgba="0.5 0.5 0.5 1"/>
      </material>
    </visual>
    <collision>
      <origin xyz="0 0 0" rpy="0 -0 0"/>
      <geometry>
        <mesh filename="package://ergoCub/meshes/simmechanics/sim_ecub_1-1_r_hand_index_2.obj" scale="0.001 0.001 0.001"/>
      </geometry>
      <material name="">
        <color rgba="0.5 0.5 0.5 1"/>
      </material>
    </collision>
  </link>
  <joint name="r_index_dist" type="revolute">
    <origin xyz="4.163336342344337e-17 -0.0014999999999998903 -0.040000000000000036" rpy="1.942890293094024e-16 3.469446951953614e-17 1.665334536937736e-16"/>
    <axis xyz="-0.9999999999999993 -2.0122792321330975e-16 -4.510281037539697e-16"/>
    <parent link="r_hand_index_2"/>
    <child link="r_hand_index_3"/>
    <limit lower="0" upper="1.7994344588061537" effort="1e+9" velocity="1e+9"/>
    <dynamics damping="2" friction="0"/>
  </joint>
  <link name="r_hand_index_3">
    <inertial>
      <mass value="0.007251413355667432"/>
      <origin xyz="4.432513430773638e-5 0.0027547026217409343 -0.01889087735725714" rpy="0 -0 0"/>
      <inertia ixx="0.01" ixy="0" ixz="0" iyy="0.01" iyz="0" izz="0.01"/>
    </inertial>
    <visual>
      <origin xyz="0 0 0" rpy="0 -0 0"/>
      <geometry>
        <mesh filename="package://ergoCub/meshes/simmechanics/sim_ecub_1-1_r_hand_index_3.obj" scale="0.001 0.001 0.001"/>
      </geometry>
      <material name="">
        <color rgba="0.5 0.5 0.5 1"/>
      </material>
    </visual>
    <collision>
      <origin xyz="0 0 0" rpy="0 -0 0"/>
      <geometry>
        <mesh filename="package://ergoCub/meshes/simmechanics/sim_ecub_1-1_r_hand_index_3.obj" scale="0.001 0.001 0.001"/>
      </geometry>
      <material name="">
        <color rgba="0.5 0.5 0.5 1"/>
      </material>
    </collision>
  </link>
  <joint name="l_shoulder_roll" type="revolute">
    <origin xyz="0.005000000000000011 0.09329999999999987 -3.0531133177191805e-16" rpy="2.6895152771544417e-14 1.790234627208065e-15 -2.3314683517128287e-15"/>
    <axis xyz="1 4.891920202255013e-16 3.3029134982598896e-15"/>
    <parent link="l_shoulder_1"/>
    <child link="l_shoulder_2"/>
    <limit lower="-0.2617993877991494" upper="2.6179938779914944" effort="1e+9" velocity="1e+9"/>
    <dynamics damping="2" friction="0"/>
  </joint>
  <link name="l_shoulder_2">
    <inertial>
      <mass value="0.44093319265387243"/>
      <origin xyz="0.007519395712385758 1.8727197477702573e-4 -0.020486062588588566" rpy="0 -0 0"/>
      <inertia ixx="0.01" ixy="0" ixz="0" iyy="0.01" iyz="0" izz="0.01"/>
    </inertial>
    <visual>
      <origin xyz="0 0 0" rpy="0 -0 0"/>
      <geometry>
        <mesh filename="package://ergoCub/meshes/simmechanics/sim_ecub_1-1_l_shoulder_2.obj" scale="0.001 0.001 0.001"/>
      </geometry>
      <material name="">
        <color rgba="0.6 0.6 0.6 1"/>
      </material>
    </visual>
    <collision>
      <origin xyz="0 0 0" rpy="0 -0 0"/>
      <geometry>
        <mesh filename="package://ergoCub/meshes/simmechanics/sim_ecub_1-1_l_shoulder_2.obj" scale="0.001 0.001 0.001"/>
      </geometry>
      <material name="">
        <color rgba="0.6 0.6 0.6 1"/>
      </material>
    </collision>
  </link>
  <joint name="l_arm_ft_sensor" type="fixed">
    <origin xyz="-0.004349999999999986 -2.7755575615628914e-17 -0.05430000000000004" rpy="2.2204460492503136e-16 6.938893903907228e-18 1.4988010832439621e-15"/>
    <parent link="l_shoulder_2"/>
    <child link="l_shoulder_3"/>
  </joint>
  <link name="l_shoulder_3">
    <inertial>
      <mass value="0.271466272759966"/>
      <origin xyz="8.311677995862313e-5 3.065483169523153e-5 -0.007966545320293866" rpy="0 -0 0"/>
      <inertia ixx="0.01" ixy="0" ixz="0" iyy="0.01" iyz="0" izz="0.01"/>
    </inertial>
    <visual>
      <origin xyz="0 0 0" rpy="0 -0 0"/>
      <geometry>
        <mesh filename="package://ergoCub/meshes/simmechanics/sim_ecub_1-1_l_shoulder_3.obj" scale="0.001 0.001 0.001"/>
      </geometry>
      <material name="">
        <color rgba="0.6 0.6 0.6 1"/>
      </material>
    </visual>
    <collision>
      <origin xyz="0 0 0" rpy="0 -0 0"/>
      <geometry>
        <mesh filename="package://ergoCub/meshes/simmechanics/sim_ecub_1-1_l_shoulder_3.obj" scale="0.001 0.001 0.001"/>
      </geometry>
      <material name="">
        <color rgba="0.6 0.6 0.6 1"/>
      </material>
    </collision>
  </link>
  <joint name="l_shoulder_yaw" type="revolute">
    <origin xyz="4.163336342344337e-17 -5.551115123125783e-17 -0.022499999999999937" rpy="-3.3029134982598486e-15 -3.002459392220658e-14 6.383782391594671e-15"/>
    <axis xyz="-3.0080105073437835e-14 3.191891195797326e-15 -0.9999999999999977"/>
    <parent link="l_shoulder_3"/>
    <child link="l_upper_arm"/>
    <limit lower="-0.8726646259971648" upper="1.3962634015954636" effort="1e+9" velocity="1e+9"/>
    <dynamics damping="2" friction="0"/>
  </joint>
  <link name="l_upper_arm">
    <inertial>
      <mass value="1.7708527474969076"/>
      <origin xyz="1.3049265136780286e-4 0.0022530185376357925 -0.050065038959805325" rpy="0 -0 0"/>
      <inertia ixx="0.003417154867942194" ixy="-2.952452997527239e-5" ixz="2.6752323704214618e-5" iyy="0.0035109035513553296" iyz="1.0388063737032838e-4" izz="0.0015716101936389657"/>
    </inertial>
    <visual>
      <origin xyz="0 0 0" rpy="0 -0 0"/>
      <geometry>
        <mesh filename="package://ergoCub/meshes/simmechanics/sim_ecub_1-1_l_upperarm.obj" scale="0.001 0.001 0.001"/>
      </geometry>
      <material name="">
        <color rgba="1 1 1 1"/>
      </material>
    </visual>
    <collision>
      <origin xyz="0 0 0" rpy="0 -0 0"/>
      <geometry>
        <mesh filename="package://ergoCub/meshes/simmechanics/sim_ecub_1-1_l_upperarm.obj" scale="0.001 0.001 0.001"/>
      </geometry>
      <material name="">
        <color rgba="1 1 1 1"/>
      </material>
    </collision>
  </link>
  <joint name="l_elbow" type="revolute">
    <origin xyz="0.009999999999996342 -0.0014999999999996405 -0.12369999999999956" rpy="-3.1641356201817088e-15 -3.134298376394895e-14 -7.827072323607395e-15"/>
    <axis xyz="-4.215378046622413e-16 -0.9999999999999953 6.5780714209038095e-15"/>
    <parent link="l_upper_arm"/>
    <child link="l_forearm"/>
    <limit lower="-0.05235987755982989" upper="1.3089969389957472" effort="1e+9" velocity="1e+9"/>
    <dynamics damping="2" friction="0"/>
  </joint>
  <link name="l_forearm">
    <inertial>
      <mass value="1.4604487031386884"/>
      <origin xyz="-0.018553263328673478 0.0023119252259846124 -0.08919372240797706" rpy="0 -0 0"/>
      <inertia ixx="0.009999999999999998" ixy="0" ixz="0" iyy="0.010000000000000002" iyz="0" izz="0.01"/>
    </inertial>
    <visual>
      <origin xyz="0 0 0" rpy="0 -0 0"/>
      <geometry>
        <mesh filename="package://ergoCub/meshes/simmechanics/sim_ecub_1-1_l_forearm.obj" scale="0.001 0.001 0.001"/>
      </geometry>
      <material name="">
        <color rgba="1 1 1 1"/>
      </material>
    </visual>
    <collision>
      <origin xyz="0 0 0" rpy="0 -0 0"/>
      <geometry>
        <mesh filename="package://ergoCub/meshes/simmechanics/sim_ecub_1-1_l_forearm.obj" scale="0.001 0.001 0.001"/>
      </geometry>
      <material name="">
        <color rgba="1 1 1 1"/>
      </material>
    </collision>
  </link>
  <joint name="l_wrist_yaw" type="revolute">
    <origin xyz="-0.014999999999992455 0.0020000000000007234 -0.1943500000000013" rpy="-2.775557561562897e-16 -7.741723928589295e-14 -5.551115123125795e-17"/>
    <axis xyz="-3.1023794644369224e-14 2.9420910152566676e-15 -0.9999999999999981"/>
    <parent link="l_forearm"/>
    <child link="l_wrist_1"/>
    <limit lower="-1.6057029118347832" upper="1.6057029118347832" effort="1e+9" velocity="1e+9"/>
    <dynamics damping="2" friction="0"/>
  </joint>
  <link name="l_wrist_1">
    <inertial>
      <mass value="0.1226928"/>
      <origin xyz="1.4545073498396788e-4 -1.5595311920038601e-4 0.022377795694245" rpy="0 -0 0"/>
      <inertia ixx="0.01" ixy="0" ixz="0" iyy="0.01" iyz="0" izz="0.01"/>
    </inertial>
    <visual>
      <origin xyz="0 0 0" rpy="0 -0 0"/>
      <geometry>
        <mesh filename="package://ergoCub/meshes/simmechanics/sim_ecub_1-1_l_wrist_1.obj" scale="0.001 0.001 0.001"/>
      </geometry>
      <material name="">
        <color rgba="0.6 0.6 0.6 1"/>
      </material>
    </visual>
    <collision>
      <origin xyz="0 0 0" rpy="0 -0 0"/>
      <geometry>
        <mesh filename="package://ergoCub/meshes/simmechanics/sim_ecub_1-1_l_wrist_1.obj" scale="0.001 0.001 0.001"/>
      </geometry>
      <material name="">
        <color rgba="0.6 0.6 0.6 1"/>
      </material>
    </collision>
  </link>
  <joint name="l_wrist_roll" type="revolute">
    <origin xyz="2.7755575615628914e-17 1.942890293094024e-16 2.7755575615628914e-17" rpy="3.885780586188047e-16 9.71445146547012e-17 -4.440892098500624e-16"/>
    <axis xyz="-1.0000000000000004 4.909267437014364e-16 -2.0122792321330943e-16"/>
    <parent link="l_wrist_1"/>
    <child link="l_wrist_2"/>
    <limit lower="-1.0821041362364843" upper="0.9075712110370514" effort="1e+9" velocity="1e+9"/>
    <dynamics damping="2" friction="0"/>
  </joint>
  <link name="l_wrist_2">
    <inertial>
      <mass value="0.02118836"/>
      <origin xyz="-7.4183919215875535e-9 -7.897157534373368e-4 -0.0046969679508168105" rpy="0 -0 0"/>
      <inertia ixx="0.01" ixy="0" ixz="0" iyy="0.01" iyz="0" izz="0.01"/>
    </inertial>
    <visual>
      <origin xyz="0 0 0" rpy="0 -0 0"/>
      <geometry>
        <mesh filename="package://ergoCub/meshes/simmechanics/sim_ecub_1-1_l_wrist_2.obj" scale="0.001 0.001 0.001"/>
      </geometry>
      <material name="">
        <color rgba="0.5 0.5 0.5 1"/>
      </material>
    </visual>
    <collision>
      <origin xyz="0 0 0" rpy="0 -0 0"/>
      <geometry>
        <mesh filename="package://ergoCub/meshes/simmechanics/sim_ecub_1-1_l_wrist_2.obj" scale="0.001 0.001 0.001"/>
      </geometry>
      <material name="">
        <color rgba="0.5 0.5 0.5 1"/>
      </material>
    </collision>
  </link>
  <joint name="l_wrist_pitch" type="revolute">
    <origin xyz="-1.214306433183765e-16 -1.6653345369377348e-16 0" rpy="-4.163336342344336e-16 1.0798191507621624e-10 3.330669073875468e-16"/>
    <axis xyz="-2.4459601009774425e-16 -1.0000000000000002 -1.3600232051562635e-15"/>
    <parent link="l_wrist_2"/>
    <child link="l_hand_palm"/>
    <limit lower="-0.5585053606381855" upper="0.5585053606381855" effort="1e+9" velocity="1e+9"/>
    <dynamics damping="2" friction="0"/>
  </joint>
  <link name="l_hand_palm">
    <inertial>
      <mass value="0.20364988213680776"/>
      <origin xyz="-0.003950502224178115 0.0019881930945492288 -0.058015852438740544" rpy="0 -0 0"/>
      <inertia ixx="0.01" ixy="0" ixz="0" iyy="0.01" iyz="0" izz="0.01"/>
    </inertial>
    <visual>
      <origin xyz="0 0 0" rpy="0 -0 0"/>
      <geometry>
        <mesh filename="package://ergoCub/meshes/simmechanics/sim_ecub_1-1_l_hand_palm.obj" scale="0.001 0.001 0.001"/>
      </geometry>
      <material name="">
        <color rgba="1 1 1 1"/>
      </material>
    </visual>
    <collision>
      <origin xyz="0 0 0" rpy="0 -0 0"/>
      <geometry>
        <mesh filename="package://ergoCub/meshes/simmechanics/sim_ecub_1-1_l_hand_palm.obj" scale="0.001 0.001 0.001"/>
      </geometry>
      <material name="">
        <color rgba="1 1 1 1"/>
      </material>
    </collision>
  </link>
  <joint name="l_index_add" type="revolute">
    <origin xyz="0.022500000000000023 -0.0015000000000006952 -0.0685999999999996" rpy="-8.416895217637947e-16 -0.29670597224465534 5.804755322508926e-17"/>
    <axis xyz="1.1895336853461886e-15 0.9999999999999999 -1.9812040713213337e-15"/>
    <parent link="l_hand_palm"/>
    <child link="l_hand_index_1"/>
    <limit lower="0" upper="0.2617993877991494" effort="1e+9" velocity="1e+9"/>
    <dynamics damping="2" friction="0"/>
  </joint>
  <link name="l_hand_index_1">
    <inertial>
      <mass value="0.01923264"/>
      <origin xyz="0.008430306749277854 0.0038510231844406384 -0.017148502808541133" rpy="0 -0 0"/>
      <inertia ixx="0.01" ixy="0" ixz="0" iyy="0.01" iyz="0" izz="0.01"/>
    </inertial>
    <visual>
      <origin xyz="0 0 0" rpy="0 -0 0"/>
      <geometry>
        <mesh filename="package://ergoCub/meshes/simmechanics/sim_ecub_1-1_l_hand_index_1.obj" scale="0.001 0.001 0.001"/>
      </geometry>
      <material name="">
        <color rgba="0.5 0.5 0.5 1"/>
      </material>
    </visual>
    <collision>
      <origin xyz="0 0 0" rpy="0 -0 0"/>
      <geometry>
        <mesh filename="package://ergoCub/meshes/simmechanics/sim_ecub_1-1_l_hand_index_1.obj" scale="0.001 0.001 0.001"/>
      </geometry>
      <material name="">
        <color rgba="0.5 0.5 0.5 1"/>
      </material>
    </collision>
  </link>
  <joint name="l_middle_prox" type="revolute">
    <origin xyz="0.00960000000000016 -0.0015000000000005842 -0.10299999999999959" rpy="5.479728916549446e-4 1.4363510381087963e-15 -8.32667268468867e-16"/>
    <axis xyz="-1.0000000000000004 1.6098145522958664e-16 4.176883423103147e-15"/>
    <parent link="l_hand_palm"/>
    <child link="l_hand_middle_1"/>
    <limit lower="0" upper="1.5707963267948966" effort="1e+9" velocity="1e+9"/>
    <dynamics damping="2" friction="0"/>
  </joint>
  <link name="l_hand_middle_1">
    <inertial>
      <mass value="0.007486366"/>
      <origin xyz="5.609414423399586e-5 0.0010938363913530202 -0.0174225309754375" rpy="0 -0 0"/>
      <inertia ixx="0.01" ixy="0" ixz="0" iyy="0.01" iyz="0" izz="0.01"/>
    </inertial>
    <visual>
      <origin xyz="0 0 0" rpy="0 -0 0"/>
      <geometry>
        <mesh filename="package://ergoCub/meshes/simmechanics/sim_ecub_1-1_l_hand_middle_1.obj" scale="0.001 0.001 0.001"/>
      </geometry>
      <material name="">
        <color rgba="0.5 0.5 0.5 1"/>
      </material>
    </visual>
    <collision>
      <origin xyz="0 0 0" rpy="0 -0 0"/>
      <geometry>
        <mesh filename="package://ergoCub/meshes/simmechanics/sim_ecub_1-1_l_hand_middle_1.obj" scale="0.001 0.001 0.001"/>
      </geometry>
      <material name="">
        <color rgba="0.5 0.5 0.5 1"/>
      </material>
    </collision>
  </link>
  <joint name="l_pinkie_prox" type="revolute">
    <origin xyz="-0.035982322249527285 -0.0023883158589564635 -0.09206560929209856" rpy="-1.9934591492976922e-5 0.08728175651239228 0.02618761244812705"/>
    <axis xyz="-0.9999999998538295 7.644772463726695e-6 -1.529375771042174e-5"/>
    <parent link="l_hand_palm"/>
    <child link="l_hand_pinkie_1"/>
    <limit lower="0" upper="1.5707963267948966" effort="1e+9" velocity="1e+9"/>
    <dynamics damping="2" friction="0"/>
  </joint>
  <link name="l_hand_pinkie_1">
    <inertial>
      <mass value="0.006357586"/>
      <origin xyz="3.6554577562467744e-5 0.0012135491682558897 -0.015052861815374408" rpy="0 -0 0"/>
      <inertia ixx="0.01" ixy="0" ixz="0" iyy="0.01" iyz="0" izz="0.01"/>
    </inertial>
    <visual>
      <origin xyz="0 0 0" rpy="0 -0 0"/>
      <geometry>
        <mesh filename="package://ergoCub/meshes/simmechanics/sim_ecub_1-1_l_hand_pinkie_1.obj" scale="0.001 0.001 0.001"/>
      </geometry>
      <material name="">
        <color rgba="0.5 0.5 0.5 1"/>
      </material>
    </visual>
    <collision>
      <origin xyz="0 0 0" rpy="0 -0 0"/>
      <geometry>
        <mesh filename="package://ergoCub/meshes/simmechanics/sim_ecub_1-1_l_hand_pinkie_1.obj" scale="0.001 0.001 0.001"/>
      </geometry>
      <material name="">
        <color rgba="0.5 0.5 0.5 1"/>
      </material>
    </collision>
  </link>
  <joint name="l_ring_prox" type="revolute">
    <origin xyz="-0.015417755558120038 -0.0018498137284707894 -0.09788067183884419" rpy="-4.001819369804634e-5 0.08726646259973214 0.026179938779914452"/>
    <axis xyz="-1.0000000000000002 4.364549018964596e-17 3.6637359812630166e-15"/>
    <parent link="l_hand_palm"/>
    <child link="l_hand_ring_1"/>
    <limit lower="0" upper="1.5707963267948966" effort="1e+9" velocity="1e+9"/>
    <dynamics damping="2" friction="0"/>
  </joint>
  <link name="l_hand_ring_1">
    <inertial>
      <mass value="0.007486366"/>
      <origin xyz="5.610953414397422e-5 0.001113903955753115 -0.017428756834488968" rpy="0 -0 0"/>
      <inertia ixx="0.01" ixy="0" ixz="0" iyy="0.01" iyz="0" izz="0.01"/>
    </inertial>
    <visual>
      <origin xyz="0 0 0" rpy="0 -0 0"/>
      <geometry>
        <mesh filename="package://ergoCub/meshes/simmechanics/sim_ecub_1-1_l_hand_ring_1.obj" scale="0.001 0.001 0.001"/>
      </geometry>
      <material name="">
        <color rgba="0.5 0.5 0.5 1"/>
      </material>
    </visual>
    <collision>
      <origin xyz="0 0 0" rpy="0 -0 0"/>
      <geometry>
        <mesh filename="package://ergoCub/meshes/simmechanics/sim_ecub_1-1_l_hand_ring_1.obj" scale="0.001 0.001 0.001"/>
      </geometry>
      <material name="">
        <color rgba="0.5 0.5 0.5 1"/>
      </material>
    </collision>
  </link>
  <joint name="l_thumb_add" type="revolute">
    <origin xyz="0.02337486325639077 -0.0030000000000002525 -0.03452383847355461" rpy="-0.04044970061859103 0.22331918636553513 2.9608435412698353"/>
    <axis xyz="9.71445146547012e-16 1.0269562977782698e-15 -1.0000000000000002"/>
    <parent link="l_hand_palm"/>
    <child link="l_hand_thumb_1"/>
    <limit lower="0" upper="1.7453292519943295" effort="1e+9" velocity="1e+9"/>
    <dynamics damping="2" friction="0"/>
  </joint>
  <link name="l_hand_thumb_1">
    <inertial>
      <mass value="0.029029542280278556"/>
      <origin xyz="-0.018039176431428286 -0.0028662725726853466 0.0021177719486905056" rpy="0 -0 0"/>
      <inertia ixx="0.01" ixy="0" ixz="0" iyy="0.01" iyz="0" izz="0.01"/>
    </inertial>
    <visual>
      <origin xyz="0 0 0" rpy="0 -0 0"/>
      <geometry>
        <mesh filename="package://ergoCub/meshes/simmechanics/sim_ecub_1-1_l_hand_thumb_1.obj" scale="0.001 0.001 0.001"/>
      </geometry>
      <material name="">
        <color rgba="0.5 0.5 0.5 1"/>
      </material>
    </visual>
    <collision>
      <origin xyz="0 0 0" rpy="0 -0 0"/>
      <geometry>
        <mesh filename="package://ergoCub/meshes/simmechanics/sim_ecub_1-1_l_hand_thumb_1.obj" scale="0.001 0.001 0.001"/>
      </geometry>
      <material name="">
        <color rgba="0.5 0.5 0.5 1"/>
      </material>
    </collision>
  </link>
  <joint name="l_thumb_prox" type="revolute">
    <origin xyz="-0.038093197449591214 -0.0032591938585579128 -0.0036017448035497446" rpy="1.37186358506996 0.1374915276146556 -3.1415926535689005"/>
    <axis xyz="5.134781488891349e-16 3.1363800445660672e-15 -0.9999999999999996"/>
    <parent link="l_hand_thumb_1"/>
    <child link="l_hand_thumb_2"/>
    <limit lower="0" upper="1.5707963267948966" effort="1e+9" velocity="1e+9"/>
    <dynamics damping="2" friction="0"/>
  </joint>
  <link name="l_hand_thumb_2">
    <inertial>
      <mass value="0.00669603218404702"/>
      <origin xyz="0.014887264468035857 0.0011329726380328031 6.266005936719776e-5" rpy="0 -0 0"/>
      <inertia ixx="0.01" ixy="0" ixz="0" iyy="0.01" iyz="0" izz="0.01"/>
    </inertial>
    <visual>
      <origin xyz="0 0 0" rpy="0 -0 0"/>
      <geometry>
        <mesh filename="package://ergoCub/meshes/simmechanics/sim_ecub_1-1_l_hand_thumb_2.obj" scale="0.001 0.001 0.001"/>
      </geometry>
      <material name="">
        <color rgba="0.5 0.5 0.5 1"/>
      </material>
    </visual>
    <collision>
      <origin xyz="0 0 0" rpy="0 -0 0"/>
      <geometry>
        <mesh filename="package://ergoCub/meshes/simmechanics/sim_ecub_1-1_l_hand_thumb_2.obj" scale="0.001 0.001 0.001"/>
      </geometry>
      <material name="">
        <color rgba="0.5 0.5 0.5 1"/>
      </material>
    </collision>
  </link>
  <joint name="l_thumb_dist" type="revolute">
    <origin xyz="0.03500000000368915 -0.001499999993667872 1.0741685319004546e-12" rpy="1.8750459518379624e-11 -1.8465340367868066e-11 -1.4806766923669552e-12"/>
    <axis xyz="-1.846719305254041e-11 -1.8750709318560158e-11 -0.9999999999999996"/>
    <parent link="l_hand_thumb_2"/>
    <child link="l_hand_thumb_3"/>
    <limit lower="0" upper="1.7697638615222502" effort="1e+9" velocity="1e+9"/>
    <dynamics damping="2" friction="0"/>
  </joint>
  <link name="l_hand_thumb_3">
    <inertial>
      <mass value="0.006831595"/>
      <origin xyz="0.016086252532748233 0.0026526887310780456 4.701425890352162e-5" rpy="0 -0 0"/>
      <inertia ixx="0.01" ixy="0" ixz="0" iyy="0.01" iyz="0" izz="0.01"/>
    </inertial>
    <visual>
      <origin xyz="0 0 0" rpy="0 -0 0"/>
      <geometry>
        <mesh filename="package://ergoCub/meshes/simmechanics/sim_ecub_1-1_l_hand_thumb_3.obj" scale="0.001 0.001 0.001"/>
      </geometry>
      <material name="">
        <color rgba="0.5 0.5 0.5 1"/>
      </material>
    </visual>
    <collision>
      <origin xyz="0 0 0" rpy="0 -0 0"/>
      <geometry>
        <mesh filename="package://ergoCub/meshes/simmechanics/sim_ecub_1-1_l_hand_thumb_3.obj" scale="0.001 0.001 0.001"/>
      </geometry>
      <material name="">
        <color rgba="0.5 0.5 0.5 1"/>
      </material>
    </collision>
  </link>
  <joint name="l_ring_dist" type="revolute">
    <origin xyz="1.4987329953475292e-11 -0.0015000000002768354 -0.04000000000073728" rpy="-1.2044308636062927e-4 -1.0794291155358238e-10 -2.509104035652854e-13"/>
    <axis xyz="-1 -2.617159685310911e-13 1.0794249544288393e-10"/>
    <parent link="l_hand_ring_1"/>
    <child link="l_hand_ring_2"/>
    <limit lower="0" upper="1.7994344588061537" effort="1e+9" velocity="1e+9"/>
    <dynamics damping="2" friction="0"/>
  </joint>
  <link name="l_hand_ring_2">
    <inertial>
      <mass value="0.007251413"/>
      <origin xyz="4.433654030530642e-5 0.0027546754597598533 -0.01889085949732494" rpy="0 -0 0"/>
      <inertia ixx="0.01" ixy="0" ixz="0" iyy="0.01" iyz="0" izz="0.01"/>
    </inertial>
    <visual>
      <origin xyz="0 0 0" rpy="0 -0 0"/>
      <geometry>
        <mesh filename="package://ergoCub/meshes/simmechanics/sim_ecub_1-1_l_hand_ring_2.obj" scale="0.001 0.001 0.001"/>
      </geometry>
      <material name="">
        <color rgba="0.5 0.5 0.5 1"/>
      </material>
    </visual>
    <collision>
      <origin xyz="0 0 0" rpy="0 -0 0"/>
      <geometry>
        <mesh filename="package://ergoCub/meshes/simmechanics/sim_ecub_1-1_l_hand_ring_2.obj" scale="0.001 0.001 0.001"/>
      </geometry>
      <material name="">
        <color rgba="0.5 0.5 0.5 1"/>
      </material>
    </collision>
  </link>
  <joint name="l_pinkie_dist" type="revolute">
    <origin xyz="1.4015903021524778e-11 -0.0014999999962120036 -0.03500000000709719" rpy="-4.438681233740257e-5 -1.0794289073690067e-10 -2.489120021209601e-13"/>
    <axis xyz="-0.9999999998538309 7.645451042193251e-6 -1.5293310428212298e-5"/>
    <parent link="l_hand_pinkie_1"/>
    <child link="l_hand_pinkie_2"/>
    <limit lower="0" upper="1.7226399717184033" effort="1e+9" velocity="1e+9"/>
    <dynamics damping="2" friction="0"/>
  </joint>
  <link name="l_hand_pinkie_2">
    <inertial>
      <mass value="0.007240237"/>
      <origin xyz="2.2378292628411067e-5 0.0027712834790767915 -0.018930353878106154" rpy="0 -0 0"/>
      <inertia ixx="0.01" ixy="0" ixz="0" iyy="0.01" iyz="0" izz="0.01"/>
    </inertial>
    <visual>
      <origin xyz="0 0 0" rpy="0 -0 0"/>
      <geometry>
        <mesh filename="package://ergoCub/meshes/simmechanics/sim_ecub_1-1_l_hand_pinkie_2.obj" scale="0.001 0.001 0.001"/>
      </geometry>
      <material name="">
        <color rgba="0.5 0.5 0.5 1"/>
      </material>
    </visual>
    <collision>
      <origin xyz="0 0 0" rpy="0 -0 0"/>
      <geometry>
        <mesh filename="package://ergoCub/meshes/simmechanics/sim_ecub_1-1_l_hand_pinkie_2.obj" scale="0.001 0.001 0.001"/>
      </geometry>
      <material name="">
        <color rgba="0.5 0.5 0.5 1"/>
      </material>
    </collision>
  </link>
  <joint name="l_middle_dist" type="revolute">
    <origin xyz="1.5440777129116512e-11 -0.001499999999999363 -0.03999999999896309" rpy="0.017535706363213464 -1.0797945176888035e-10 5.917488721252084e-14"/>
    <axis xyz="-1 1.952334931070572e-12 1.0795870667149422e-10"/>
    <parent link="l_hand_middle_1"/>
    <child link="l_hand_middle_2"/>
    <limit lower="0" upper="1.7994344588061537" effort="1e+9" velocity="1e+9"/>
    <dynamics damping="2" friction="0"/>
  </joint>
  <link name="l_hand_middle_2">
    <inertial>
      <mass value="0.007251413"/>
      <origin xyz="4.4316320155644157e-5 0.0027547229469275236 -0.018890877319942878" rpy="0 -0 0"/>
      <inertia ixx="0.01" ixy="0" ixz="0" iyy="0.01" iyz="0" izz="0.01"/>
    </inertial>
    <visual>
      <origin xyz="0 0 0" rpy="0 -0 0"/>
      <geometry>
        <mesh filename="package://ergoCub/meshes/simmechanics/sim_ecub_1-1_l_hand_middle_2.obj" scale="0.001 0.001 0.001"/>
      </geometry>
      <material name="">
        <color rgba="0.5 0.5 0.5 1"/>
      </material>
    </visual>
    <collision>
      <origin xyz="0 0 0" rpy="0 -0 0"/>
      <geometry>
        <mesh filename="package://ergoCub/meshes/simmechanics/sim_ecub_1-1_l_hand_middle_2.obj" scale="0.001 0.001 0.001"/>
      </geometry>
      <material name="">
        <color rgba="0.5 0.5 0.5 1"/>
      </material>
    </collision>
  </link>
  <joint name="l_index_prox" type="revolute">
    <origin xyz="0.00919253334679343 0 -0.030713451309624218" rpy="-3.0531133177191815e-16 -7.023611484080483e-10 -7.771561172376096e-16"/>
    <axis xyz="-1 8.326672684688522e-17 7.023654435833748e-10"/>
    <parent link="l_hand_index_1"/>
    <child link="l_hand_index_2"/>
    <limit lower="0" upper="1.5707963267948966" effort="1e+9" velocity="1e+9"/>
    <dynamics damping="2" friction="0"/>
  </joint>
  <link name="l_hand_index_2">
    <inertial>
      <mass value="0.007486366"/>
      <origin xyz="5.6100110941745274e-5 0.001113133191428639 -0.01742880406449937" rpy="0 -0 0"/>
      <inertia ixx="0.01" ixy="0" ixz="0" iyy="0.01" iyz="0" izz="0.01"/>
    </inertial>
    <visual>
      <origin xyz="0 0 0" rpy="0 -0 0"/>
      <geometry>
        <mesh filename="package://ergoCub/meshes/simmechanics/sim_ecub_1-1_l_hand_index_2.obj" scale="0.001 0.001 0.001"/>
      </geometry>
      <material name="">
        <color rgba="0.5 0.5 0.5 1"/>
      </material>
    </visual>
    <collision>
      <origin xyz="0 0 0" rpy="0 -0 0"/>
      <geometry>
        <mesh filename="package://ergoCub/meshes/simmechanics/sim_ecub_1-1_l_hand_index_2.obj" scale="0.001 0.001 0.001"/>
      </geometry>
      <material name="">
        <color rgba="0.5 0.5 0.5 1"/>
      </material>
    </collision>
  </link>
  <joint name="l_index_dist" type="revolute">
    <origin xyz="-1.3877787807814457e-17 -0.001500000000000029 -0.03999999999999987" rpy="-7.482326172536535e-8 1.8041124150158794e-16 -6.106226635438361e-16"/>
    <axis xyz="-1 -2.359224176539984e-16 4.163337069211178e-17"/>
    <parent link="l_hand_index_2"/>
    <child link="l_hand_index_3"/>
    <limit lower="0" upper="1.7994344588061537" effort="1e+9" velocity="1e+9"/>
    <dynamics damping="2" friction="0"/>
  </joint>
  <link name="l_hand_index_3">
    <inertial>
      <mass value="0.007251413"/>
      <origin xyz="4.431356673249148e-5 0.0027546711855188366 -0.018890916917498335" rpy="0 -0 0"/>
      <inertia ixx="0.01" ixy="0" ixz="0" iyy="0.01" iyz="0" izz="0.01"/>
    </inertial>
    <visual>
      <origin xyz="0 0 0" rpy="0 -0 0"/>
      <geometry>
        <mesh filename="package://ergoCub/meshes/simmechanics/sim_ecub_1-1_l_hand_index_3.obj" scale="0.001 0.001 0.001"/>
      </geometry>
      <material name="">
        <color rgba="0.5 0.5 0.5 1"/>
      </material>
    </visual>
    <collision>
      <origin xyz="0 0 0" rpy="0 -0 0"/>
      <geometry>
        <mesh filename="package://ergoCub/meshes/simmechanics/sim_ecub_1-1_l_hand_index_3.obj" scale="0.001 0.001 0.001"/>
      </geometry>
      <material name="">
        <color rgba="0.5 0.5 0.5 1"/>
      </material>
    </collision>
  </link>
  <joint name="neck_roll" type="revolute">
    <origin xyz="8.673617379884035e-19 6.416192023745373e-17 0.009499999999999786" rpy="-1.7364294099408703e-15 -2.980403162017727e-16 1.580860396783509e-15"/>
    <axis xyz="1 -1.6820355477448088e-15 -3.806893332301044e-15"/>
    <parent link="neck_2"/>
    <child link="neck_3"/>
    <limit lower="-0.3490658503988659" upper="0.3490658503988659" effort="1e+9" velocity="1e+9"/>
    <dynamics damping="2" friction="0"/>
  </joint>
  <link name="neck_3">
    <inertial>
      <mass value="0.17811376821431446"/>
      <origin xyz="7.590511663558711e-4 -4.0916906938460536e-5 0.036035516549226765" rpy="0 -0 0"/>
      <inertia ixx="9.70548692219775e-5" ixy="1.7629468835177367e-7" ixz="6.130672988864901e-6" iyy="1.0759851740143377e-4" iyz="-2.503969674072287e-7" izz="3.626415440724103e-5"/>
    </inertial>
    <visual>
      <origin xyz="0 0 0" rpy="0 -0 0"/>
      <geometry>
        <mesh filename="package://ergoCub/meshes/simmechanics/sim_ecub_1-1_head_neck_3.obj" scale="0.001 0.001 0.001"/>
      </geometry>
      <material name="">
        <color rgba="0.6 0.6 0.6 1"/>
      </material>
    </visual>
    <collision>
      <origin xyz="0 0 0" rpy="0 -0 0"/>
      <geometry>
        <mesh filename="package://ergoCub/meshes/simmechanics/sim_ecub_1-1_head_neck_3.obj" scale="0.001 0.001 0.001"/>
      </geometry>
      <material name="">
        <color rgba="0.6 0.6 0.6 1"/>
      </material>
    </collision>
  </link>
  <joint name="neck_yaw" type="revolute">
    <origin xyz="-1.43982048506075e-16 -4.1419339784385294e-17 0.06914999999999999" rpy="1.2720090288173385e-15 -3.1687776687987536e-15 3.715432083235576e-16"/>
    <axis xyz="3.1628618281392715e-15 1.6479574685948862e-15 0.9999999999999998"/>
    <parent link="neck_3"/>
    <child link="head"/>
    <limit lower="-0.7853981633974483" upper="0.7853981633974483" effort="1e+9" velocity="1e+9"/>
    <dynamics damping="2" friction="0"/>
  </joint>
  <link name="head">
    <inertial>
      <mass value="1.972127893184972"/>
      <origin xyz="-0.01620091412622722 -0.002268813231724542 0.03500744217497026" rpy="0 -0 0"/>
      <inertia ixx="0.007991907355842523" ixy="1.8186740348760937e-4" ixz="-1.9244538977657914e-4" iyy="0.009883124315185845" iyz="-3.994074771344834e-5" izz="0.00786000669468763"/>
    </inertial>
    <visual>
      <origin xyz="0 0 0" rpy="0 -0 0"/>
      <geometry>
        <mesh filename="package://ergoCub/meshes/simmechanics/sim_ecub_1-1_head.obj" scale="0.001 0.001 0.001"/>
      </geometry>
      <material name="">
        <color rgba="1 1 1 1"/>
      </material>
    </visual>
    <collision>
      <origin xyz="0 0 0" rpy="0 -0 0"/>
      <geometry>
        <mesh filename="package://ergoCub/meshes/simmechanics/sim_ecub_1-1_head.obj" scale="0.001 0.001 0.001"/>
      </geometry>
      <material name="">
        <color rgba="1 1 1 1"/>
      </material>
    </collision>
  </link>
  <joint name="camera_tilt" type="revolute">
    <origin xyz="0.06250999999999993 -3.0000000001105853e-5 0.07639250000000064" rpy="9.166950960511526e-15 2.595819949100105e-4 1.9343583275079285e-15"/>
    <axis xyz="-3.1332662159460226e-17 -1 -1.3036401662462866e-15"/>
    <parent link="head"/>
    <child link="realsense"/>
    <limit lower="-0.5235987755982988" upper="0.5235987755982988" effort="1e+9" velocity="1e+9"/>
    <dynamics damping="2" friction="0"/>
  </joint>
  <link name="realsense">
    <inertial>
      <mass value="0.0973042045264468"/>
      <origin xyz="-0.01566548310600667 0.004519995218644514 0.002745610154123612" rpy="0 -0 0"/>
      <inertia ixx="0.01" ixy="0" ixz="0" iyy="0.01" iyz="0" izz="0.01"/>
    </inertial>
    <visual>
      <origin xyz="0 0 0" rpy="0 -0 0"/>
      <geometry>
        <mesh filename="package://ergoCub/meshes/simmechanics/sim_ecub_1-1_realsense.obj" scale="0.001 0.001 0.001"/>
      </geometry>
      <material name="">
        <color rgba="0.6 0.6 0.6 1"/>
      </material>
    </visual>
    <collision>
      <origin xyz="0 0 0" rpy="0 -0 0"/>
      <geometry>
        <mesh filename="package://ergoCub/meshes/simmechanics/sim_ecub_1-1_realsense.obj" scale="0.001 0.001 0.001"/>
      </geometry>
      <material name="">
        <color rgba="0.6 0.6 0.6 1"/>
      </material>
    </collision>
  </link>
  <joint name="r_hip_roll" type="revolute">
    <origin xyz="-0.047250000000000625 -0.033099999999999824 -0.009000000000000091" rpy="-2.73316156054826e-16 2.504641391024977e-16 -3.1036377681447894e-15"/>
    <axis xyz="-1 -3.3813287685016297e-16 -7.120227705451219e-17"/>
    <parent link="r_hip_1"/>
    <child link="r_hip_2"/>
    <limit lower="-0.2792526803190927" upper="1.9024088846738192" effort="1e+9" velocity="1e+9"/>
    <dynamics damping="2" friction="0"/>
  </joint>
  <link name="r_hip_2">
    <inertial>
      <mass value="1.8425374083524118"/>
      <origin xyz="-0.004338858395569037 -4.276785411407025e-5 -0.03711583728304848" rpy="0 -0 0"/>
      <inertia ixx="0.003120303249647105" ixy="2.3735315120274186e-6" ixz="0.0010124685247925123" iyy="0.005459166113270065" iyz="-1.8523984061140002e-6" izz="0.003419002844852166"/>
    </inertial>
    <visual>
      <origin xyz="0 0 0" rpy="0 -0 0"/>
      <geometry>
        <mesh filename="package://ergoCub/meshes/simmechanics/sim_ecub_1-1_r_hip_2.obj" scale="0.001 0.001 0.001"/>
      </geometry>
      <material name="">
        <color rgba="0.6 0.6 0.6 1"/>
      </material>
    </visual>
    <collision>
      <origin xyz="0 0 0" rpy="0 -0 0"/>
      <geometry>
        <mesh filename="package://ergoCub/meshes/simmechanics/sim_ecub_1-1_r_hip_2.obj" scale="0.001 0.001 0.001"/>
      </geometry>
      <material name="">
        <color rgba="0.6 0.6 0.6 1"/>
      </material>
    </collision>
  </link>
  <joint name="r_leg_ft_sensor" type="fixed">
    <origin xyz="0.036699999999999976 -5.551115123125783e-17 -0.08969999999999992" rpy="-1.3775953441385743e-15 5.490828022886651e-16 1.6105578736269433e-15"/>
    <parent link="r_hip_2"/>
    <child link="r_hip_3"/>
  </joint>
  <link name="r_hip_3">
    <inertial>
      <mass value="2.147900058066585"/>
      <origin xyz="0.0051510124501743006 0.012832092744145235 -0.05168842502826221" rpy="0 -0 0"/>
      <inertia ixx="0.007193177523135792" ixy="3.498727117566612e-5" ixz="2.4096738440560362e-5" iyy="0.008149001665389528" iyz="-1.2572783372468582e-4" izz="0.0057278283877820494"/>
    </inertial>
    <visual>
      <origin xyz="0 0 0" rpy="0 -0 0"/>
      <geometry>
        <mesh filename="package://ergoCub/meshes/simmechanics/sim_ecub_1-1_r_hip_3.obj" scale="0.001 0.001 0.001"/>
      </geometry>
      <material name="">
        <color rgba="1 1 1 1"/>
      </material>
    </visual>
    <collision>
      <origin xyz="0 0 0" rpy="0 -0 0"/>
      <geometry>
        <mesh filename="package://ergoCub/meshes/simmechanics/sim_ecub_1-1_r_hip_3.obj" scale="0.001 0.001 0.001"/>
      </geometry>
      <material name="">
        <color rgba="1 1 1 1"/>
      </material>
    </collision>
  </link>
  <joint name="r_hip_yaw" type="revolute">
    <origin xyz="-2.8622937353617317e-16 0.014999999999999777 -0.07269999999999871" rpy="-3.94514163379533e-15 7.430123072146451e-16 1.2193157749540276e-6"/>
    <axis xyz="-2.3953050207433507e-20 1.4749328491810949e-15 -1"/>
    <parent link="r_hip_3"/>
    <child link="r_upper_leg"/>
    <limit lower="-1.3788101090755203" upper="1.3788101090755203" effort="1e+9" velocity="1e+9"/>
    <dynamics damping="2" friction="0"/>
  </joint>
  <link name="r_upper_leg">
    <inertial>
      <mass value="2.784923431729287"/>
      <origin xyz="0.008517474024287675 -0.014468465702474021 -0.12674960557185616" rpy="0 -0 0"/>
      <inertia ixx="0.01186013252999811" ixy="5.455450241372543e-5" ixz="5.393573740676933e-4" iyy="0.01210913335208505" iyz="-4.0331041015476653e-4" izz="0.0022609706907693243"/>
    </inertial>
    <visual>
      <origin xyz="0 0 0" rpy="0 -0 0"/>
      <geometry>
        <mesh filename="package://ergoCub/meshes/simmechanics/sim_ecub_1-1_r_upper_leg.obj" scale="0.001 0.001 0.001"/>
      </geometry>
      <material name="">
        <color rgba="0.6 0.6 0.6 1"/>
      </material>
    </visual>
    <collision>
      <origin xyz="0 0 0" rpy="0 -0 0"/>
      <geometry>
        <mesh filename="package://ergoCub/meshes/simmechanics/sim_ecub_1-1_r_upper_leg.obj" scale="0.001 0.001 0.001"/>
      </geometry>
      <material name="">
        <color rgba="0.6 0.6 0.6 1"/>
      </material>
    </collision>
  </link>
  <joint name="r_knee" type="revolute">
    <origin xyz="0.01060000963260985 0.007899987075259289 -0.17970000000000058" rpy="6.892643261935339e-14 -6.650159361880639e-14 -1.2193157700904425e-6"/>
    <axis xyz="1.2193157766326317e-6 -0.9999999999992566 4.719551160658923e-15"/>
    <parent link="r_upper_leg"/>
    <child link="r_lower_leg"/>
    <limit lower="-1.8151424220741028" upper="0.10471975511965978" effort="1e+9" velocity="1e+9"/>
    <dynamics damping="2" friction="0"/>
  </joint>
  <link name="r_lower_leg">
    <inertial>
      <mass value="3.7621532589747924"/>
      <origin xyz="0.0012157689164458522 -0.006184734585333342 -0.21372759879868175" rpy="0 -0 0"/>
      <inertia ixx="0.04644215616821937" ixy="3.7269274872175814e-5" ixz="-8.519885904633137e-4" iyy="0.047738936736850285" iyz="-0.0018042981721195497" izz="0.004839671863500647"/>
    </inertial>
    <visual>
      <origin xyz="0 0 0" rpy="0 -0 0"/>
      <geometry>
        <mesh filename="package://ergoCub/meshes/simmechanics/sim_ecub_1-1_r_lower_leg.obj" scale="0.001 0.001 0.001"/>
      </geometry>
      <material name="">
        <color rgba="1 1 1 1"/>
      </material>
    </visual>
    <collision>
      <origin xyz="0 0 0" rpy="0 -0 0"/>
      <geometry>
        <mesh filename="package://ergoCub/meshes/simmechanics/sim_ecub_1-1_r_lower_leg.obj" scale="0.001 0.001 0.001"/>
      </geometry>
      <material name="">
        <color rgba="1 1 1 1"/>
      </material>
    </collision>
  </link>
  <joint name="r_ankle_pitch" type="revolute">
    <origin xyz="-5.936223734792634e-15 -0.03190000000000005 -0.3210000000000002" rpy="-2.9932805576414174e-15 -2.0242047360524565e-14 8.880636788937802e-17"/>
    <axis xyz="-3.505264366441263e-17 1 -1.331317022347139e-16"/>
    <parent link="r_lower_leg"/>
    <child link="r_ankle_1"/>
    <limit lower="-0.7853981633974483" upper="0.7853981633974483" effort="1e+9" velocity="1e+9"/>
    <dynamics damping="2" friction="0"/>
  </joint>
  <link name="r_ankle_1">
    <inertial>
      <mass value="0.3481278950635556"/>
      <origin xyz="-0.0013672309746954776 -6.60186959019704e-4 -0.014087432401547305" rpy="0 -0 0"/>
      <inertia ixx="0.01" ixy="0" ixz="0" iyy="0.01" iyz="0" izz="0.01"/>
    </inertial>
    <visual>
      <origin xyz="0 0 0" rpy="0 -0 0"/>
      <geometry>
        <mesh filename="package://ergoCub/meshes/simmechanics/sim_ecub_1-1_r_ankle_1.obj" scale="0.001 0.001 0.001"/>
      </geometry>
      <material name="">
        <color rgba="0.6 0.6 0.6 1"/>
      </material>
    </visual>
    <collision>
      <origin xyz="0 0 0" rpy="0 -0 0"/>
      <geometry>
        <mesh filename="package://ergoCub/meshes/simmechanics/sim_ecub_1-1_r_ankle_1.obj" scale="0.001 0.001 0.001"/>
      </geometry>
      <material name="">
        <color rgba="0.6 0.6 0.6 1"/>
      </material>
    </collision>
  </link>
  <joint name="r_ankle_roll" type="revolute">
    <origin xyz="-0.052750000000001546 0.018200000000000008 -0.0349999999999977" rpy="-1.0176053241861382e-24 3.8838282931741325e-14 -9.278622199115707e-23"/>
    <axis xyz="-1 -1.628246671334752e-16 2.560295622560413e-15"/>
    <parent link="r_ankle_1"/>
    <child link="r_ankle_2"/>
    <limit lower="-0.4363323129985824" upper="0.4363323129985824" effort="1e+9" velocity="1e+9"/>
    <dynamics damping="2" friction="0"/>
  </joint>
  <link name="r_ankle_2">
    <inertial>
      <mass value="1.5418216247038539"/>
      <origin xyz="0.04052646811695935 -8.642493098851012e-5 -0.023871143533700234" rpy="0 -0 0"/>
      <inertia ixx="0.01" ixy="0" ixz="0" iyy="0.009999999999999998" iyz="0" izz="0.01"/>
    </inertial>
    <visual>
      <origin xyz="0 0 0" rpy="0 -0 0"/>
      <geometry>
        <mesh filename="package://ergoCub/meshes/simmechanics/sim_ecub_1-1_r_ankle_2.obj" scale="0.001 0.001 0.001"/>
      </geometry>
      <material name="">
        <color rgba="1 1 1 1"/>
      </material>
    </visual>
    <collision>
      <origin xyz="0 0 0" rpy="0 -0 0"/>
      <geometry>
        <mesh filename="package://ergoCub/meshes/simmechanics/sim_ecub_1-1_r_ankle_2.obj" scale="0.001 0.001 0.001"/>
      </geometry>
      <material name="">
        <color rgba="1 1 1 1"/>
      </material>
    </collision>
  </link>
  <joint name="r_foot_front_ft_sensor" type="fixed">
    <origin xyz="0.13525000000000004 0 -0.04789999999999994" rpy="2.66139136471374e-17 -9.20811369242055e-17 -1.4551888385804406e-15"/>
    <parent link="r_ankle_2"/>
    <child link="r_foot_front"/>
  </joint>
  <link name="r_foot_front">
    <inertial>
      <mass value="0.22110467939552797"/>
      <origin xyz="5.879202911245884e-4 -3.747924692820703e-9 -0.02000061661590058" rpy="0 -0 0"/>
      <inertia ixx="0.009999999999999998" ixy="0" ixz="0" iyy="0.01" iyz="0" izz="0.01"/>
    </inertial>
    <visual>
      <origin xyz="0 0 0" rpy="0 -0 0"/>
      <geometry>
        <mesh filename="package://ergoCub/meshes/simmechanics/sim_ecub_1-1_r_foot_front.obj" scale="0.001 0.001 0.001"/>
      </geometry>
      <material name="">
        <color rgba="1 0.51 0 1"/>
      </material>
    </visual>
    <collision>
      <origin xyz="0 0 -0.0193" rpy="0 -0 0"/>
      <geometry>
        <box size="0.117 0.1 0.006"/>
      </geometry>
    </collision>
  </link>
  <joint name="r_foot_rear_ft_sensor" type="fixed">
    <origin xyz="0.016 0 -0.04789999999999983" rpy="2.661391364712478e-17 -9.208113692419957e-17 -1.566211141042955e-15"/>
    <parent link="r_ankle_2"/>
    <child link="r_foot_rear"/>
  </joint>
  <link name="r_foot_rear">
    <inertial>
      <mass value="0.22110467939552797"/>
      <origin xyz="5.879202911244878e-4 -3.747924665065128e-9 -0.020000616615901023" rpy="0 -0 0"/>
      <inertia ixx="0.01" ixy="0" ixz="0" iyy="0.01" iyz="0" izz="0.01"/>
    </inertial>
    <visual>
      <origin xyz="0 0 0" rpy="0 -0 0"/>
      <geometry>
        <mesh filename="package://ergoCub/meshes/simmechanics/sim_ecub_1-1_r_foot_rear.obj" scale="0.001 0.001 0.001"/>
      </geometry>
      <material name="">
        <color rgba="1 0.51 0 1"/>
      </material>
    </visual>
    <collision>
      <origin xyz="0 0 -0.0193" rpy="0 -0 0"/>
      <geometry>
        <box size="0.117 0.1 0.006"/>
      </geometry>
    </collision>
  </link>
  <joint name="l_hip_roll" type="revolute">
    <origin xyz="-0.04725000000000078 0.033100000000000004 -0.009000000000000119" rpy="7.584245024416732e-16 1.5745686587446743e-30 1.1102230246251548e-16"/>
    <axis xyz="1 -6.123233995736708e-17 6.3201403498236e-16"/>
    <parent link="l_hip_1"/>
    <child link="l_hip_2"/>
    <limit lower="-0.2792526803190927" upper="1.9024088846738192" effort="1e+9" velocity="1e+9"/>
    <dynamics damping="2" friction="0"/>
  </joint>
  <link name="l_hip_2">
    <inertial>
      <mass value="1.8338392164825101"/>
      <origin xyz="-0.004125697068299468 3.917475804632309e-5 -0.03750964603556273" rpy="0 -0 0"/>
      <inertia ixx="0.003159514595905926" ixy="-1.6542815235215681e-6" ixz="9.977368607484037e-4" iyy="0.005488243677251951" iyz="-2.1904093887368695e-6" izz="0.0033984945726571185"/>
    </inertial>
    <visual>
      <origin xyz="0 0 0" rpy="0 -0 0"/>
      <geometry>
        <mesh filename="package://ergoCub/meshes/simmechanics/sim_ecub_1-1_l_hip_2.obj" scale="0.001 0.001 0.001"/>
      </geometry>
      <material name="">
        <color rgba="0.6 0.6 0.6 1"/>
      </material>
    </visual>
    <collision>
      <origin xyz="0 0 0" rpy="0 -0 0"/>
      <geometry>
        <mesh filename="package://ergoCub/meshes/simmechanics/sim_ecub_1-1_l_hip_2.obj" scale="0.001 0.001 0.001"/>
      </geometry>
      <material name="">
        <color rgba="0.6 0.6 0.6 1"/>
      </material>
    </collision>
  </link>
  <joint name="l_leg_ft_sensor" type="fixed">
    <origin xyz="0.03669999999999985 -1.3877787807814457e-17 -0.08970000000000003" rpy="-1.1075796462727634e-15 -2.3847605106274887e-30 2.775557561562846e-16"/>
    <parent link="l_hip_2"/>
    <child link="l_hip_3"/>
  </joint>
  <link name="l_hip_3">
    <inertial>
      <mass value="2.147524084050246"/>
      <origin xyz="0.005176125839593024 -0.01282881302682233 -0.05174852447453404" rpy="0 -0 0"/>
      <inertia ixx="0.007242161971060034" ixy="-3.321392954197042e-5" ixz="2.505985505401264e-5" iyy="0.008197962692605146" iyz="1.2474874840596051e-4" izz="0.005727458772759987"/>
    </inertial>
    <visual>
      <origin xyz="0 0 0" rpy="0 -0 0"/>
      <geometry>
        <mesh filename="package://ergoCub/meshes/simmechanics/sim_ecub_1-1_l_hip_3.obj" scale="0.001 0.001 0.001"/>
      </geometry>
      <material name="">
        <color rgba="1 1 1 1"/>
      </material>
    </visual>
    <collision>
      <origin xyz="0 0 0" rpy="0 -0 0"/>
      <geometry>
        <mesh filename="package://ergoCub/meshes/simmechanics/sim_ecub_1-1_l_hip_3.obj" scale="0.001 0.001 0.001"/>
      </geometry>
      <material name="">
        <color rgba="1 1 1 1"/>
      </material>
    </collision>
  </link>
  <joint name="l_hip_yaw" type="revolute">
    <origin xyz="-8.448103328007051e-16 -0.014999999999999944 -0.07269999999999993" rpy="3.011883887564833e-16 1.143142903721238e-14 -2.2204460492502608e-16"/>
    <axis xyz="-8.622588011769357e-16 1.593666547307703e-16 1"/>
    <parent link="l_hip_3"/>
    <child link="l_upper_leg"/>
    <limit lower="-1.3788101090755203" upper="1.3788101090755203" effort="1e+9" velocity="1e+9"/>
    <dynamics damping="2" friction="0"/>
  </joint>
  <link name="l_upper_leg">
    <inertial>
      <mass value="2.784923431765453"/>
      <origin xyz="0.008503494694160183 0.014484874736048647 -0.12674659802303312" rpy="0 -0 0"/>
      <inertia ixx="0.011852293952284196" ixy="-4.907145319317264e-5" ixz="5.393933817879138e-4" iyy="0.012109807149567942" iyz="3.9208918647670385e-4" izz="0.002253627916731084"/>
    </inertial>
    <visual>
      <origin xyz="0 0 0" rpy="0 -0 0"/>
      <geometry>
        <mesh filename="package://ergoCub/meshes/simmechanics/sim_ecub_1-1_l_upper_leg.obj" scale="0.001 0.001 0.001"/>
      </geometry>
      <material name="">
        <color rgba="0.6 0.6 0.6 1"/>
      </material>
    </visual>
    <collision>
      <origin xyz="0 0 0" rpy="0 -0 0"/>
      <geometry>
        <mesh filename="package://ergoCub/meshes/simmechanics/sim_ecub_1-1_l_upper_leg.obj" scale="0.001 0.001 0.001"/>
      </geometry>
      <material name="">
        <color rgba="0.6 0.6 0.6 1"/>
      </material>
    </collision>
  </link>
  <joint name="l_knee" type="revolute">
    <origin xyz="0.010600000000000822 -0.007900000000000185 -0.17969999999999958" rpy="1.970486418692682e-16 -1.1419428146632273e-14 2.8602839935211434e-15"/>
    <axis xyz="-2.608937546411318e-16 -1 5.166588955193111e-17"/>
    <parent link="l_upper_leg"/>
    <child link="l_lower_leg"/>
    <limit lower="-1.8151424220741028" upper="0.10471975511965978" effort="1e+9" velocity="1e+9"/>
    <dynamics damping="2" friction="0"/>
  </joint>
  <link name="l_lower_leg">
    <inertial>
      <mass value="3.767581145212888"/>
      <origin xyz="0.0014201768088090358 0.006186333743956739 -0.21383298861124922" rpy="0 -0 0"/>
      <inertia ixx="0.04647110900067475" ixy="-2.1189289797886653e-5" ixz="-8.110710215722959e-4" iyy="0.04776726641499918" iyz="0.0018123762001582078" izz="0.004840491251955261"/>
    </inertial>
    <visual>
      <origin xyz="0 0 0" rpy="0 -0 0"/>
      <geometry>
        <mesh filename="package://ergoCub/meshes/simmechanics/sim_ecub_1-1_l_lower_leg.obj" scale="0.001 0.001 0.001"/>
      </geometry>
      <material name="">
        <color rgba="1 1 1 1"/>
      </material>
    </visual>
    <collision>
      <origin xyz="0 0 0" rpy="0 -0 0"/>
      <geometry>
        <mesh filename="package://ergoCub/meshes/simmechanics/sim_ecub_1-1_l_lower_leg.obj" scale="0.001 0.001 0.001"/>
      </geometry>
      <material name="">
        <color rgba="1 1 1 1"/>
      </material>
    </collision>
  </link>
  <joint name="l_ankle_pitch" type="revolute">
    <origin xyz="-4.468647674116255e-15 0.03189999999999981 -0.3209999999999995" rpy="-1.9704864186927032e-16 -8.673617379880112e-19 -1.8683953730959558e-16"/>
    <axis xyz="-2.389602037081462e-16 1 1.4538275231733847e-16"/>
    <parent link="l_lower_leg"/>
    <child link="l_ankle_1"/>
    <limit lower="-0.7853981633974483" upper="0.7853981633974483" effort="1e+9" velocity="1e+9"/>
    <dynamics damping="2" friction="0"/>
  </joint>
  <link name="l_ankle_1">
    <inertial>
      <mass value="0.3481278951519182"/>
      <origin xyz="-0.0013852125067176195 6.601869600093568e-4 -0.014087432474324535" rpy="0 -0 0"/>
      <inertia ixx="0.01" ixy="0" ixz="0" iyy="0.01" iyz="0" izz="0.01"/>
    </inertial>
    <visual>
      <origin xyz="0 0 0" rpy="0 -0 0"/>
      <geometry>
        <mesh filename="package://ergoCub/meshes/simmechanics/sim_ecub_1-1_l_ankle_1.obj" scale="0.001 0.001 0.001"/>
      </geometry>
      <material name="">
        <color rgba="0.6 0.6 0.6 1"/>
      </material>
    </visual>
    <collision>
      <origin xyz="0 0 0" rpy="0 -0 0"/>
      <geometry>
        <mesh filename="package://ergoCub/meshes/simmechanics/sim_ecub_1-1_l_ankle_1.obj" scale="0.001 0.001 0.001"/>
      </geometry>
      <material name="">
        <color rgba="0.6 0.6 0.6 1"/>
      </material>
    </collision>
  </link>
  <joint name="l_ankle_roll" type="revolute">
    <origin xyz="-0.052750000000000324 -0.01819999999999991 -0.03499999999999959" rpy="3.340196646750626e-19 1.1217589357404033e-14 -2.3665827156630354e-30"/>
    <axis xyz="1 -4.05028482201375e-16 -1.2496691978128869e-15"/>
    <parent link="l_ankle_1"/>
    <child link="l_ankle_2"/>
    <limit lower="-0.4363323129985824" upper="0.4363323129985824" effort="1e+9" velocity="1e+9"/>
    <dynamics damping="2" friction="0"/>
  </joint>
  <link name="l_ankle_2">
    <inertial>
      <mass value="1.5418216247038539"/>
      <origin xyz="0.0405224005088543 -9.790751646740482e-5 -0.02387114353368558" rpy="0 -0 0"/>
      <inertia ixx="0.01" ixy="0" ixz="0" iyy="0.010000000000000002" iyz="0" izz="0.01"/>
    </inertial>
    <visual>
      <origin xyz="0 0 0" rpy="0 -0 0"/>
      <geometry>
        <mesh filename="package://ergoCub/meshes/simmechanics/sim_ecub_1-1_l_ankle_2.obj" scale="0.001 0.001 0.001"/>
      </geometry>
      <material name="">
        <color rgba="1 1 1 1"/>
      </material>
    </visual>
    <collision>
      <origin xyz="0 0 0" rpy="0 -0 0"/>
      <geometry>
        <mesh filename="package://ergoCub/meshes/simmechanics/sim_ecub_1-1_l_ankle_2.obj" scale="0.001 0.001 0.001"/>
      </geometry>
      <material name="">
        <color rgba="1 1 1 1"/>
      </material>
    </collision>
  </link>
  <joint name="l_foot_front_ft_sensor" type="fixed">
    <origin xyz="0.13524999999999998 -5.551115123125783e-17 -0.047899999999999165" rpy="-8.751425667295598e-31 1.9428902930939912e-16 -9.788946385468152e-16"/>
    <parent link="l_ankle_2"/>
    <child link="l_foot_front"/>
  </joint>
  <link name="l_foot_front">
    <inertial>
      <mass value="0.22110467939552797"/>
      <origin xyz="5.879202911245329e-4 -3.747924692820703e-9 -0.02000061661590158" rpy="0 -0 0"/>
      <inertia ixx="0.01" ixy="0" ixz="0" iyy="0.01" iyz="0" izz="0.01"/>
    </inertial>
    <visual>
      <origin xyz="0 0 0" rpy="0 -0 0"/>
      <geometry>
        <mesh filename="package://ergoCub/meshes/simmechanics/sim_ecub_1-1_l_foot_front.obj" scale="0.001 0.001 0.001"/>
      </geometry>
      <material name="">
        <color rgba="1 0.51 0 1"/>
      </material>
    </visual>
    <collision>
      <origin xyz="0 0 -0.0193" rpy="0 -0 0"/>
      <geometry>
        <box size="0.117 0.1 0.006"/>
      </geometry>
    </collision>
  </link>
  <joint name="l_foot_rear_ft_sensor" type="fixed">
    <origin xyz="0.015999999999999986 -4.163336342344337e-17 -0.04789999999999994" rpy="-1.0970096963229695e-30 1.942890293093975e-16 2.0306083615826833e-17"/>
    <parent link="l_ankle_2"/>
    <child link="l_foot_rear"/>
  </joint>
  <link name="l_foot_rear">
    <inertial>
      <mass value="0.22110467939552797"/>
      <origin xyz="5.879202911244826e-4 -3.7479246789429155e-9 -0.020000616615901134" rpy="0 -0 0"/>
      <inertia ixx="0.01" ixy="0" ixz="0" iyy="0.01" iyz="0" izz="0.01"/>
    </inertial>
    <visual>
      <origin xyz="0 0 0" rpy="0 -0 0"/>
      <geometry>
        <mesh filename="package://ergoCub/meshes/simmechanics/sim_ecub_1-1_l_foot_rear.obj" scale="0.001 0.001 0.001"/>
      </geometry>
      <material name="">
        <color rgba="1 0.51 0 1"/>
      </material>
    </visual>
    <collision>
      <origin xyz="0 0 -0.0193" rpy="0 -0 0"/>
      <geometry>
        <box size="0.117 0.1 0.006"/>
      </geometry>
    </collision>
  </link>
  <link name="head_imu_0"/>
  <joint name="head_imu_0_fixed_joint" type="fixed">
    <origin xyz="-0.004299999999999899 -0.005500000000001061 0.03823450000000106" rpy="-3.141592653589788 -9.688477917552238e-15 1.5707963267948986"/>
    <parent link="head"/>
    <child link="head_imu_0"/>
  </joint>
  <link name="realsense_imu_0"/>
  <joint name="realsense_imu_0_fixed_joint" type="fixed">
    <origin xyz="0.007515481871156526 0.010000000000000002 1.7352099479506222e-8" rpy="-1.5707963267948966 3.7596758519972983e-16 -1.5707963267948966"/>
    <parent link="realsense"/>
    <child link="realsense_imu_0"/>
  </joint>
  <link name="l_arm_ft"/>
  <joint name="l_arm_ft_fixed_joint" type="fixed">
    <origin xyz="-0.004349999999999996 -2.7755575615628914e-17 -0.054300000000000015" rpy="3.141592653589793 2.498001805406602e-16 -1.5707963267948952"/>
    <parent link="l_shoulder_2"/>
    <child link="l_arm_ft"/>
  </joint>
  <link name="l_foot_front_ft"/>
  <joint name="l_foot_front_ft_fixed_joint" type="fixed">
    <origin xyz="0.13525 -4.163336342344337e-17 -0.047899999999999054" rpy="-4.259189482954547e-17 -7.513330770412076e-17 -2.0943951023931966"/>
    <parent link="l_ankle_2"/>
    <child link="l_foot_front_ft"/>
  </joint>
  <link name="l_foot_rear_ft"/>
  <joint name="l_foot_rear_ft_fixed_joint" type="fixed">
    <origin xyz="0.015999999999999993 -2.7755575615628914e-17 -0.04789999999999983" rpy="-4.259189482954531e-17 -7.513330770412153e-17 -2.0943951023931957"/>
    <parent link="l_ankle_2"/>
    <child link="l_foot_rear_ft"/>
  </joint>
  <link name="l_leg_ft"/>
  <joint name="l_leg_ft_fixed_joint" type="fixed">
    <origin xyz="0.03669999999999986 -1.3877787807814457e-17 -0.08969999999999997" rpy="-3.1415926535897927 -1.4675346083959194e-15 2.617993877991494"/>
    <parent link="l_hip_2"/>
    <child link="l_leg_ft"/>
  </joint>
  <link name="r_arm_ft"/>
  <joint name="r_arm_ft_fixed_joint" type="fixed">
    <origin xyz="-0.006849999999999986 -2.7755575615628914e-17 -0.05429999999999999" rpy="3.141592653589793 1.6653345369377348e-16 1.5707963267948981"/>
    <parent link="r_shoulder_2"/>
    <child link="r_arm_ft"/>
  </joint>
  <link name="r_foot_front_ft"/>
  <joint name="r_foot_front_ft_fixed_joint" type="fixed">
    <origin xyz="0.13525 1.3877787807814457e-17 -0.04789999999999983" rpy="-4.2591894829555776e-17 -7.513330770412949e-17 -2.094395102393197"/>
    <parent link="r_ankle_2"/>
    <child link="r_foot_front_ft"/>
  </joint>
  <link name="r_foot_rear_ft"/>
  <joint name="r_foot_rear_ft_fixed_joint" type="fixed">
    <origin xyz="0.016 1.3877787807814457e-17 -0.04789999999999994" rpy="-4.2591894829543154e-17 -7.513330770412949e-17 -2.0943951023931966"/>
    <parent link="r_ankle_2"/>
    <child link="r_foot_rear_ft"/>
  </joint>
  <link name="r_leg_ft"/>
  <joint name="r_leg_ft_fixed_joint" type="fixed">
    <origin xyz="0.03669999999999999 0 -0.08969999999999997" rpy="-3.1415926535897927 -8.654368135774127e-16 -2.6179938779914935"/>
    <parent link="r_hip_2"/>
    <child link="r_leg_ft"/>
  </joint>
  <link name="realsense_depth_frame"/>
  <joint name="realsense_depth_frame_fixed_joint" type="fixed">
    <origin xyz="0.007515481871156526 0.010000000000000002 1.7352099479506222e-8" rpy="-1.5707963267948966 3.7596758519972983e-16 -1.5707963267948966"/>
    <parent link="realsense"/>
    <child link="realsense_depth_frame"/>
  </joint>
  <link name="imu_frame"/>
  <joint name="imu_frame_fixed_joint" type="fixed">
    <origin xyz="-0.004299999999999899 -0.005500000000001061 0.03823450000000106" rpy="-3.141592653589788 -9.688477917552238e-15 1.5707963267948986"/>
    <parent link="head"/>
    <child link="imu_frame"/>
  </joint>
  <link name="realsense_rgb_frame"/>
  <joint name="realsense_rgb_frame_fixed_joint" type="fixed">
    <origin xyz="0.007515481871156526 -0.011499999999999996 1.7352099701550827e-8" rpy="-1.5707963267948966 3.7596758519972983e-16 -1.5707963267948966"/>
    <parent link="realsense"/>
    <child link="realsense_rgb_frame"/>
  </joint>
  <link name="head_laser_frame"/>
  <joint name="head_laser_frame_fixed_joint" type="fixed">
    <origin xyz="5.000000000061726e-5 -1.938549701738834e-15 0.13480249990363524" rpy="9.721954681893984e-15 5.33156930061495e-15 3.167605067133685e-15"/>
    <parent link="head"/>
    <child link="head_laser_frame"/>
  </joint>
  <link name="l_hand_index_skin_0"/>
  <joint name="l_hand_index_skin_0_fixed_joint" type="fixed">
    <origin xyz="-1.3877787807814457e-17 -0.002433918058236534 -0.03140545777888892" rpy="-5.286130912234566e-16 1.2225055986691187 -1.570796326794897"/>
    <parent link="l_hand_index_3"/>
    <child link="l_hand_index_skin_0"/>
  </joint>
  <link name="l_hand_index_skin_1"/>
  <joint name="l_hand_index_skin_1_fixed_joint" type="fixed">
    <origin xyz="0.0032999999999999974 -0.0031311476143919548 -0.033280418005286916" rpy="-5.049308804587452e-16 1.2200949024613605 -1.570796326794897"/>
    <parent link="l_hand_index_3"/>
    <child link="l_hand_index_skin_1"/>
  </joint>
  <link name="l_hand_index_skin_10"/>
  <joint name="l_hand_index_skin_10_fixed_joint" type="fixed">
    <origin xyz="-0.003300000000000025 -0.004081940988398508 -0.03776668459795801" rpy="-3.1415926535897913 1.5049109712528748 1.5707963267948997"/>
    <parent link="l_hand_index_3"/>
    <child link="l_hand_index_skin_10"/>
  </joint>
  <link name="l_hand_index_skin_11"/>
  <joint name="l_hand_index_skin_11_fixed_joint" type="fixed">
    <origin xyz="-0.0033000000000000113 -0.0031311476143919548 -0.033280418005286916" rpy="-5.049308804587451e-16 1.2200949024613599 -1.570796326794897"/>
    <parent link="l_hand_index_3"/>
    <child link="l_hand_index_skin_11"/>
  </joint>
  <link name="l_hand_index_skin_2"/>
  <joint name="l_hand_index_skin_2_fixed_joint" type="fixed">
    <origin xyz="-6.938893903907228e-18 -0.003758241653579991 -0.035192049408458936" rpy="-6.620570360759466e-16 1.3056813328515076 -1.5707963267948972"/>
    <parent link="l_hand_index_3"/>
    <child link="l_hand_index_skin_2"/>
  </joint>
  <link name="l_hand_index_skin_3"/>
  <joint name="l_hand_index_skin_3_fixed_joint" type="fixed">
    <origin xyz="0.0032999999999999974 -0.004081940988398425 -0.03776668459795801" rpy="-3.1415926535897913 1.5049109712528748 1.5707963267948997"/>
    <parent link="l_hand_index_3"/>
    <child link="l_hand_index_skin_3"/>
  </joint>
  <link name="l_hand_index_skin_4"/>
  <joint name="l_hand_index_skin_4_fixed_joint" type="fixed">
    <origin xyz="0.005929525942276338 -0.001192320688661208 -0.03799999999999998" rpy="3.1415926535897922 1.2994442229713599 2.7771555423255903"/>
    <parent link="l_hand_index_3"/>
    <child link="l_hand_index_skin_4"/>
  </joint>
  <link name="l_hand_index_skin_5"/>
  <joint name="l_hand_index_skin_5_fixed_joint" type="fixed">
    <origin xyz="1.3877787807814457e-17 -0.0034840921633512434 -0.03982136611863335" rpy="-3.1415926535897927 1.088751329798359 1.5707963267948972"/>
    <parent link="l_hand_index_3"/>
    <child link="l_hand_index_skin_5"/>
  </joint>
  <link name="l_hand_index_skin_6"/>
  <joint name="l_hand_index_skin_6_fixed_joint" type="fixed">
    <origin xyz="0.0032999999999999696 -0.001828801718873424 -0.04176963440415199" rpy="3.141592653589793 0.7788155893137823 2.5320677565812"/>
    <parent link="l_hand_index_3"/>
    <child link="l_hand_index_skin_6"/>
  </joint>
  <link name="l_hand_index_skin_7"/>
  <joint name="l_hand_index_skin_7_fixed_joint" type="fixed">
    <origin xyz="-6.938893903907228e-18 -2.9018466437888413e-4 -0.043259640911881" rpy="-3.141592653589793 0.6209480183022732 1.571212482632116"/>
    <parent link="l_hand_index_3"/>
    <child link="l_hand_index_skin_7"/>
  </joint>
  <link name="l_hand_index_skin_8"/>
  <joint name="l_hand_index_skin_8_fixed_joint" type="fixed">
    <origin xyz="-0.003300000000000025 -0.0018288017188733685 -0.041769634404151934" rpy="-3.1415926535897927 0.7788155893137829 0.6095248970085935"/>
    <parent link="l_hand_index_3"/>
    <child link="l_hand_index_skin_8"/>
  </joint>
  <link name="l_hand_index_skin_9"/>
  <joint name="l_hand_index_skin_9_fixed_joint" type="fixed">
    <origin xyz="-0.005929525942276387 -0.001192320688661208 -0.03799999999999998" rpy="-3.141592653589792 1.2994442229713608 0.36443711126420336"/>
    <parent link="l_hand_index_3"/>
    <child link="l_hand_index_skin_9"/>
  </joint>
  <link name="l_hand_middle_skin_0"/>
  <joint name="l_hand_middle_skin_0_fixed_joint" type="fixed">
    <origin xyz="0 -0.002433918058236506 -0.03140545777888887" rpy="1.626501819149097e-16 1.22250559866912 -1.5707963267948966"/>
    <parent link="l_hand_middle_2"/>
    <child link="l_hand_middle_skin_0"/>
  </joint>
  <link name="l_hand_middle_skin_1"/>
  <joint name="l_hand_middle_skin_1_fixed_joint" type="fixed">
    <origin xyz="0.0033000000000000043 -0.003131147614391927 -0.033280418005286805" rpy="1.615778817467984e-16 1.2200949024613614 -1.5707963267948966"/>
    <parent link="l_hand_middle_2"/>
    <child link="l_hand_middle_skin_1"/>
  </joint>
  <link name="l_hand_middle_skin_10"/>
  <joint name="l_hand_middle_skin_10_fixed_joint" type="fixed">
    <origin xyz="-0.003299999999999973 -0.004081940988398425 -0.037766684597957956" rpy="3.1415926535897922 1.5049109712528765 1.5707963267948972"/>
    <parent link="l_hand_middle_2"/>
    <child link="l_hand_middle_skin_10"/>
  </joint>
  <link name="l_hand_middle_skin_11"/>
  <joint name="l_hand_middle_skin_11_fixed_joint" type="fixed">
    <origin xyz="-0.003299999999999994 -0.0031311476143918715 -0.033280418005286805" rpy="1.615778817467984e-16 1.2200949024613614 -1.5707963267948966"/>
    <parent link="l_hand_middle_2"/>
    <child link="l_hand_middle_skin_11"/>
  </joint>
  <link name="l_hand_middle_skin_2"/>
  <joint name="l_hand_middle_skin_2_fixed_joint" type="fixed">
    <origin xyz="-6.938893903907228e-18 -0.0037582416535799634 -0.035192049408458936" rpy="2.118582515443029e-16 1.305681332851508 -1.5707963267948966"/>
    <parent link="l_hand_middle_2"/>
    <child link="l_hand_middle_skin_2"/>
  </joint>
  <link name="l_hand_middle_skin_3"/>
  <joint name="l_hand_middle_skin_3_fixed_joint" type="fixed">
    <origin xyz="0.0033000000000000113 -0.004081940988398369 -0.03776668459795801" rpy="3.1415926535897922 1.5049109712528765 1.5707963267948968"/>
    <parent link="l_hand_middle_2"/>
    <child link="l_hand_middle_skin_3"/>
  </joint>
  <link name="l_hand_middle_skin_4"/>
  <joint name="l_hand_middle_skin_4_fixed_joint" type="fixed">
    <origin xyz="0.005929525942276356 -0.0011923206886611804 -0.03799999999999998" rpy="3.1415926535897922 1.2994442229713614 2.7771555423255903"/>
    <parent link="l_hand_middle_2"/>
    <child link="l_hand_middle_skin_4"/>
  </joint>
  <link name="l_hand_middle_skin_5"/>
  <joint name="l_hand_middle_skin_5_fixed_joint" type="fixed">
    <origin xyz="1.0408340855860843e-17 -0.0034840921633511046 -0.03982136611863335" rpy="3.141592653589793 1.0887513297983595 1.570796326794897"/>
    <parent link="l_hand_middle_2"/>
    <child link="l_hand_middle_skin_5"/>
  </joint>
  <link name="l_hand_middle_skin_6"/>
  <joint name="l_hand_middle_skin_6_fixed_joint" type="fixed">
    <origin xyz="0.003300000000000008 -0.0018288017188733685 -0.04176963440415188" rpy="3.1415926535897927 0.7788155893137828 2.5320677565811995"/>
    <parent link="l_hand_middle_2"/>
    <child link="l_hand_middle_skin_6"/>
  </joint>
  <link name="l_hand_middle_skin_7"/>
  <joint name="l_hand_middle_skin_7_fixed_joint" type="fixed">
    <origin xyz="-3.469446951953614e-18 -2.9018466437885637e-4 -0.04325964091188095" rpy="3.141592653589793 0.6209480183022731 1.571212482632116"/>
    <parent link="l_hand_middle_2"/>
    <child link="l_hand_middle_skin_7"/>
  </joint>
  <link name="l_hand_middle_skin_8"/>
  <joint name="l_hand_middle_skin_8_fixed_joint" type="fixed">
    <origin xyz="-0.003299999999999994 -0.0018288017188733963 -0.041769634404151934" rpy="-3.141592653589793 0.7788155893137828 0.6095248970085932"/>
    <parent link="l_hand_middle_2"/>
    <child link="l_hand_middle_skin_8"/>
  </joint>
  <link name="l_hand_middle_skin_9"/>
  <joint name="l_hand_middle_skin_9_fixed_joint" type="fixed">
    <origin xyz="-0.0059295259422763695 -0.001192320688661208 -0.03799999999999998" rpy="-3.1415926535897922 1.2994442229713608 0.3644371112642029"/>
    <parent link="l_hand_middle_2"/>
    <child link="l_hand_middle_skin_9"/>
  </joint>
  <link name="l_hand_pinkie_skin_0"/>
  <joint name="l_hand_pinkie_skin_0_fixed_joint" type="fixed">
    <origin xyz="1.1364587082021704e-6 -0.0024339180633243807 -0.03140545776518122" rpy="4.4810406990145916e-5 1.222505598463966 -1.5707618523704918"/>
    <parent link="l_hand_pinkie_2"/>
    <child link="l_hand_pinkie_skin_0"/>
  </joint>
  <link name="l_hand_pinkie_skin_1"/>
  <joint name="l_hand_pinkie_skin_1_fixed_joint" type="fixed">
    <origin xyz="0.003301159802142385 -0.003131172849448638 -0.033280367523160825" rpy="4.451498643578038e-5 1.2200949022586114 -1.5707621667995164"/>
    <parent link="l_hand_pinkie_2"/>
    <child link="l_hand_pinkie_skin_1"/>
  </joint>
  <link name="l_hand_pinkie_skin_10"/>
  <joint name="l_hand_pinkie_skin_10_fixed_joint" type="fixed">
    <origin xyz="-0.003298778855785424 -0.004081915763448796 -0.037766735051979805" rpy="3.14136036390978 1.5049109693635563 1.5705568956520668"/>
    <parent link="l_hand_pinkie_2"/>
    <child link="l_hand_pinkie_skin_10"/>
  </joint>
  <link name="l_hand_pinkie_skin_11"/>
  <joint name="l_hand_pinkie_skin_11_fixed_joint" type="fixed">
    <origin xyz="-0.003298840196892895 -0.0031311223894700813 -0.033280468459722046" rpy="4.4514986435780384e-5 1.2200949022586114 -1.5707621667995162"/>
    <parent link="l_hand_pinkie_2"/>
    <child link="l_hand_pinkie_skin_11"/>
  </joint>
  <link name="l_hand_pinkie_skin_2"/>
  <joint name="l_hand_pinkie_skin_2_fixed_joint" type="fixed">
    <origin xyz="1.1842435866243894e-6 -0.0037582416586290635 -0.0351920493944633" rpy="5.8367315429754e-5 1.305681332537708 -1.570747644146057"/>
    <parent link="l_hand_pinkie_2"/>
    <child link="l_hand_pinkie_skin_2"/>
  </joint>
  <link name="l_hand_pinkie_skin_3"/>
  <joint name="l_hand_pinkie_skin_3_fixed_joint" type="fixed">
    <origin xyz="0.0033012211432498564 -0.00408196622342738 -0.03776663411541853" rpy="3.14136036390978 1.5049109693635563 1.5705568956520668"/>
    <parent link="l_hand_pinkie_2"/>
    <child link="l_hand_pinkie_skin_3"/>
  </joint>
  <link name="l_hand_pinkie_skin_4"/>
  <joint name="l_hand_pinkie_skin_4_fixed_joint" type="fixed">
    <origin xyz="0.005930772745783179 -0.0011923660276871306 -0.037999909302654955" rpy="3.141572315440389 1.2994585118923023 2.7771283028717044"/>
    <parent link="l_hand_pinkie_2"/>
    <child link="l_hand_pinkie_skin_4"/>
  </joint>
  <link name="l_hand_pinkie_skin_5"/>
  <joint name="l_hand_pinkie_skin_5_fixed_joint" type="fixed">
    <origin xyz="1.2571376604118834e-6 -0.003484092168408337 -0.03982136610406428" rpy="3.1415596646367674 1.0887513294579219 1.570759451523612"/>
    <parent link="l_hand_pinkie_2"/>
    <child link="l_hand_pinkie_skin_5"/>
  </joint>
  <link name="l_hand_pinkie_skin_6"/>
  <joint name="l_hand_pinkie_skin_6_fixed_joint" type="fixed">
    <origin xyz="0.0033012995883024976 -0.00182882695396816 -0.04176958392088087" rpy="3.1415803523625088 0.7788281285900823 2.532051470238895"/>
    <parent link="l_hand_pinkie_2"/>
    <child link="l_hand_pinkie_skin_6"/>
  </joint>
  <link name="l_hand_pinkie_skin_7"/>
  <joint name="l_hand_pinkie_skin_7_fixed_joint" type="fixed">
    <origin xyz="1.3341394995113054e-6 -2.901846695293475e-4 -0.04325964089653633" rpy="3.141573850067606 0.6209480244661378 1.571193897169884"/>
    <parent link="l_hand_pinkie_2"/>
    <child link="l_hand_pinkie_skin_7"/>
  </joint>
  <link name="l_hand_pinkie_skin_8"/>
  <joint name="l_hand_pinkie_skin_8_fixed_joint" type="fixed">
    <origin xyz="-0.003298700410732769 -0.0018287764939896034 -0.041769684857442146" rpy="3.1415803529363586 0.7788030498279591 0.6095086111791652"/>
    <parent link="l_hand_pinkie_2"/>
    <child link="l_hand_pinkie_skin_8"/>
  </joint>
  <link name="l_hand_pinkie_skin_9"/>
  <joint name="l_hand_pinkie_skin_9_fixed_joint" type="fixed">
    <origin xyz="-0.005928279137036092 -0.0011922753598834768 -0.0380000906680969" rpy="3.14157231834453 1.2994299338602708 0.36440987468608"/>
    <parent link="l_hand_pinkie_2"/>
    <child link="l_hand_pinkie_skin_9"/>
  </joint>
  <link name="l_hand_ring_skin_0"/>
  <joint name="l_hand_ring_skin_0_fixed_joint" type="fixed">
    <origin xyz="6.938893903907228e-18 -0.0024339180582365616 -0.03140545777888881" rpy="5.692756367021836e-16 1.222505598669119 -1.5707963267948966"/>
    <parent link="l_hand_ring_2"/>
    <child link="l_hand_ring_skin_0"/>
  </joint>
  <link name="l_hand_ring_skin_1"/>
  <joint name="l_hand_ring_skin_1_fixed_joint" type="fixed">
    <origin xyz="0.0033000000000000095 -0.0031311476143919548 -0.033280418005286805" rpy="5.655225861137946e-16 1.2200949024613605 -1.5707963267948966"/>
    <parent link="l_hand_ring_2"/>
    <child link="l_hand_ring_skin_1"/>
  </joint>
  <link name="l_hand_ring_skin_10"/>
  <joint name="l_hand_ring_skin_10_fixed_joint" type="fixed">
    <origin xyz="-0.0033000000000000043 -0.004081940988398369 -0.037766684597957956" rpy="3.141592653589791 1.5049109712528765 1.5707963267948966"/>
    <parent link="l_hand_ring_2"/>
    <child link="l_hand_ring_skin_10"/>
  </joint>
  <link name="l_hand_ring_skin_11"/>
  <joint name="l_hand_ring_skin_11_fixed_joint" type="fixed">
    <origin xyz="-0.0032999999999999887 -0.003131147614391927 -0.03328041800528686" rpy="5.655225861137945e-16 1.2200949024613605 -1.5707963267948966"/>
    <parent link="l_hand_ring_2"/>
    <child link="l_hand_ring_skin_11"/>
  </joint>
  <link name="l_hand_ring_skin_2"/>
  <joint name="l_hand_ring_skin_2_fixed_joint" type="fixed">
    <origin xyz="-5.204170427930421e-18 -0.003758241653579991 -0.03519204940845888" rpy="6.885393175189842e-16 1.305681332851508 -1.5707963267948963"/>
    <parent link="l_hand_ring_2"/>
    <child link="l_hand_ring_skin_2"/>
  </joint>
  <link name="l_hand_ring_skin_3"/>
  <joint name="l_hand_ring_skin_3_fixed_joint" type="fixed">
    <origin xyz="0.003300000000000008 -0.004081940988398397 -0.037766684597957956" rpy="3.141592653589791 1.5049109712528765 1.5707963267948968"/>
    <parent link="l_hand_ring_2"/>
    <child link="l_hand_ring_skin_3"/>
  </joint>
  <link name="l_hand_ring_skin_4"/>
  <joint name="l_hand_ring_skin_4_fixed_joint" type="fixed">
    <origin xyz="0.005929525942276373 -0.0011923206886612359 -0.03799999999999992" rpy="3.141592653589792 1.299444222971361 2.7771555423255903"/>
    <parent link="l_hand_ring_2"/>
    <child link="l_hand_ring_skin_4"/>
  </joint>
  <link name="l_hand_ring_skin_5"/>
  <joint name="l_hand_ring_skin_5_fixed_joint" type="fixed">
    <origin xyz="6.938893903907228e-18 -0.00348409216335116 -0.03982136611863335" rpy="3.1415926535897927 1.088751329798359 1.5707963267948968"/>
    <parent link="l_hand_ring_2"/>
    <child link="l_hand_ring_skin_5"/>
  </joint>
  <link name="l_hand_ring_skin_6"/>
  <joint name="l_hand_ring_skin_6_fixed_joint" type="fixed">
    <origin xyz="0.003299999999999994 -0.0018288017188733685 -0.041769634404151934" rpy="3.1415926535897927 0.7788155893137829 2.5320677565811995"/>
    <parent link="l_hand_ring_2"/>
    <child link="l_hand_ring_skin_6"/>
  </joint>
  <link name="l_hand_ring_skin_7"/>
  <joint name="l_hand_ring_skin_7_fixed_joint" type="fixed">
    <origin xyz="1.9081958235744878e-17 -2.9018466437888413e-4 -0.04325964091188089" rpy="3.141592653589793 0.6209480183022733 1.5712124826321159"/>
    <parent link="l_hand_ring_2"/>
    <child link="l_hand_ring_skin_7"/>
  </joint>
  <link name="l_hand_ring_skin_8"/>
  <joint name="l_hand_ring_skin_8_fixed_joint" type="fixed">
    <origin xyz="-0.0032999999999999852 -0.0018288017188733685 -0.041769634404151934" rpy="-3.141592653589793 0.7788155893137823 0.6095248970085929"/>
    <parent link="l_hand_ring_2"/>
    <child link="l_hand_ring_skin_8"/>
  </joint>
  <link name="l_hand_ring_skin_9"/>
  <joint name="l_hand_ring_skin_9_fixed_joint" type="fixed">
    <origin xyz="-0.005929525942276356 -0.0011923206886611804 -0.03799999999999992" rpy="-3.1415926535897927 1.2994442229713594 0.3644371112642026"/>
    <parent link="l_hand_ring_2"/>
    <child link="l_hand_ring_skin_9"/>
  </joint>
  <link name="l_sole"/>
  <joint name="l_sole_fixed_joint" type="fixed">
    <origin xyz="0.059629999999999996 -1.3877787807814457e-17 -0.024299999999999877" rpy="0 1.5094274020956558e-31 0"/>
    <parent link="l_foot_rear"/>
    <child link="l_sole"/>
  </joint>
  <link name="l_hand_thumb_skin_0"/>
  <joint name="l_hand_thumb_skin_0_fixed_joint" type="fixed">
    <origin xyz="0.026405457778888957 -0.002433918058236617 5.551115123125783e-17" rpy="-1.5707963267948963 1.1102230246251565e-16 2.793301925464017"/>
    <parent link="l_hand_thumb_3"/>
    <child link="l_hand_thumb_skin_0"/>
  </joint>
  <link name="l_hand_thumb_skin_1"/>
  <joint name="l_hand_thumb_skin_1_fixed_joint" type="fixed">
    <origin xyz="0.028280418005286963 -0.0031311476143920103 0.0033000000000000806" rpy="-1.5707963267948961 -7.216449660063518e-16 -2.1816615649914324"/>
    <parent link="l_hand_thumb_3"/>
    <child link="l_hand_thumb_skin_1"/>
  </joint>
  <link name="l_hand_thumb_skin_10"/>
  <joint name="l_hand_thumb_skin_10_fixed_joint" type="fixed">
    <origin xyz="0.032766684597958076 -0.004081940988398508 -0.0032999999999999696" rpy="-1.5707963267948961 -5.551115123125783e-17 -3.075707298047779"/>
    <parent link="l_hand_thumb_3"/>
    <child link="l_hand_thumb_skin_10"/>
  </joint>
  <link name="l_hand_thumb_skin_11"/>
  <joint name="l_hand_thumb_skin_11_fixed_joint" type="fixed">
    <origin xyz="0.028280418005286963 -0.0031311476143919825 -0.0032999999999999696" rpy="-1.5707963267948961 -0 2.790891229256258"/>
    <parent link="l_hand_thumb_3"/>
    <child link="l_hand_thumb_skin_11"/>
  </joint>
  <link name="l_hand_thumb_skin_2"/>
  <joint name="l_hand_thumb_skin_2_fixed_joint" type="fixed">
    <origin xyz="0.030192049408458998 -0.0037582416535800467 0" rpy="-1.5707963267948961 -0 2.8764776596464054"/>
    <parent link="l_hand_thumb_3"/>
    <child link="l_hand_thumb_skin_2"/>
  </joint>
  <link name="l_hand_thumb_skin_3"/>
  <joint name="l_hand_thumb_skin_3_fixed_joint" type="fixed">
    <origin xyz="0.03276668459795809 -0.004081940988398536 0.003300000000000025" rpy="-1.5707963267948961 -7.216449660063518e-16 -2.1816615649914324"/>
    <parent link="l_hand_thumb_3"/>
    <child link="l_hand_thumb_skin_3"/>
  </joint>
  <link name="l_hand_thumb_skin_4"/>
  <joint name="l_hand_thumb_skin_4_fixed_joint" type="fixed">
    <origin xyz="0.03300000000000006 -0.0011923206886612636 0.005929525942276415" rpy="-3.1415926535897927 3.3306690738754696e-16 -3.1415926535883125"/>
    <parent link="l_hand_thumb_3"/>
    <child link="l_hand_thumb_skin_4"/>
  </joint>
  <link name="l_hand_thumb_skin_5"/>
  <joint name="l_hand_thumb_skin_5_fixed_joint" type="fixed">
    <origin xyz="0.034821366118633415 -0.0034840921633512156 8.326672684688674e-17" rpy="-1.5707963267948963 -2.220446049250313e-16 -2.6595476565932565"/>
    <parent link="l_hand_thumb_3"/>
    <child link="l_hand_thumb_skin_5"/>
  </joint>
  <link name="l_hand_thumb_skin_6"/>
  <joint name="l_hand_thumb_skin_6_fixed_joint" type="fixed">
    <origin xyz="0.036769634404151985 -0.0018288017188734795 0.003300000000000053" rpy="1.5707963267948968 -2.7755575615628914e-16 -2.399827721490722"/>
    <parent link="l_hand_thumb_3"/>
    <child link="l_hand_thumb_skin_6"/>
  </joint>
  <link name="l_hand_thumb_skin_7"/>
  <joint name="l_hand_thumb_skin_7_fixed_joint" type="fixed">
    <origin xyz="0.03825964091188104 -2.9018466437893964e-4 0" rpy="-1.570554204626614 -3.384708831138008e-4 -2.1917443860728234"/>
    <parent link="l_hand_thumb_3"/>
    <child link="l_hand_thumb_skin_7"/>
  </joint>
  <link name="l_hand_thumb_skin_8"/>
  <joint name="l_hand_thumb_skin_8_fixed_joint" type="fixed">
    <origin xyz="0.03676963440415201 -0.001828801718873424 -0.003299999999999942" rpy="-2.3592109405351698 0.6231239758157896 -2.6159603834403367"/>
    <parent link="l_hand_thumb_3"/>
    <child link="l_hand_thumb_skin_8"/>
  </joint>
  <link name="l_hand_thumb_skin_9"/>
  <joint name="l_hand_thumb_skin_9_fixed_joint" type="fixed">
    <origin xyz="0.03300000000000007 -0.0011923206886612636 -0.005929525942276359" rpy="-2.7645689049691455 0.25312544974719003 -3.042753660865159"/>
    <parent link="l_hand_thumb_3"/>
    <child link="l_hand_thumb_skin_9"/>
  </joint>
  <link name="r_hand_index_skin_0"/>
  <joint name="r_hand_index_skin_0_fixed_joint" type="fixed">
    <origin xyz="3.469446951953614e-17 -0.002433928982192385 -0.03140545693228214" rpy="2.8463754567347765e-16 1.2225052508328904 -1.5707963267948963"/>
    <parent link="r_hand_index_3"/>
    <child link="r_hand_index_skin_0"/>
  </joint>
  <link name="r_hand_index_skin_1"/>
  <joint name="r_hand_index_skin_1_fixed_joint" type="fixed">
    <origin xyz="0.0032999999999999974 -0.0031311591905268388 -0.033280416916158295" rpy="2.4236659217065896e-16 1.2200945546251307 -1.5707963267948963"/>
    <parent link="r_hand_index_3"/>
    <child link="r_hand_index_skin_1"/>
  </joint>
  <link name="r_hand_index_skin_10"/>
  <joint name="r_hand_index_skin_10_fixed_joint" type="fixed">
    <origin xyz="-0.0032999999999999696 -0.0040819541250192715 -0.03776668317810877" rpy="3.1415926535897922 1.5049113190891115 1.5707963267948952"/>
    <parent link="r_hand_index_3"/>
    <child link="r_hand_index_skin_10"/>
  </joint>
  <link name="r_hand_index_skin_11"/>
  <joint name="r_hand_index_skin_11_fixed_joint" type="fixed">
    <origin xyz="-0.0033000000000000043 -0.0031311591905267833 -0.033280416916158295" rpy="2.4236659217065896e-16 1.2200945546251307 -1.5707963267948963"/>
    <parent link="r_hand_index_3"/>
    <child link="r_hand_index_skin_11"/>
  </joint>
  <link name="r_hand_index_skin_2"/>
  <joint name="r_hand_index_skin_2_fixed_joint" type="fixed">
    <origin xyz="6.938893903907228e-18 -0.003758253894649538 -0.03519204810120419" rpy="3.177869701880381e-16 1.3056809850152777 -1.5707963267948961"/>
    <parent link="r_hand_index_3"/>
    <child link="r_hand_index_skin_2"/>
  </joint>
  <link name="r_hand_index_skin_3"/>
  <joint name="r_hand_index_skin_3_fixed_joint" type="fixed">
    <origin xyz="0.0033000000000000043 -0.004081954125019299 -0.03776668317810877" rpy="3.1415926535897922 1.5049113190891115 1.5707963267948952"/>
    <parent link="r_hand_index_3"/>
    <child link="r_hand_index_skin_3"/>
  </joint>
  <link name="r_hand_index_skin_4"/>
  <joint name="r_hand_index_skin_4_fixed_joint" type="fixed">
    <origin xyz="0.005929525942276359 -0.0011923339064377758 -0.03799999958526529" rpy="-3.1415914410880514 1.299444346948154 2.777156710461142"/>
    <parent link="r_hand_index_3"/>
    <child link="r_hand_index_skin_4"/>
  </joint>
  <link name="r_hand_index_skin_5"/>
  <joint name="r_hand_index_skin_5_fixed_joint" type="fixed">
    <origin xyz="6.938893903907228e-18 -0.003484106014664784 -0.03982136490673749" rpy="3.141592653589793 1.0887516776345891 1.5707963267948963"/>
    <parent link="r_hand_index_3"/>
    <child link="r_hand_index_skin_5"/>
  </joint>
  <link name="r_hand_index_skin_6"/>
  <joint name="r_hand_index_skin_6_fixed_joint" type="fixed">
    <origin xyz="0.0033000000000000043 -0.0018288162478654058 -0.04176963376802595" rpy="-3.141592252887904 0.7788157884423246 2.5320680380490246"/>
    <parent link="r_hand_index_3"/>
    <child link="r_hand_index_skin_6"/>
  </joint>
  <link name="r_hand_index_skin_7"/>
  <joint name="r_hand_index_skin_7_fixed_joint" type="fixed">
    <origin xyz="-2.7755575615628914e-17 -2.901997116492028e-4 -0.04325964081094158" rpy="-3.1415926534118155 0.6209483661384732 1.5712124827356644"/>
    <parent link="r_hand_index_3"/>
    <child link="r_hand_index_skin_7"/>
  </joint>
  <link name="r_hand_index_skin_8"/>
  <joint name="r_hand_index_skin_8_fixed_joint" type="fixed">
    <origin xyz="-0.0032999999999999835 -0.0018288162478654058 -0.04176963376802595" rpy="3.141592252887904 0.7788157884423246 0.6095246155407682"/>
    <parent link="r_hand_index_3"/>
    <child link="r_hand_index_skin_8"/>
  </joint>
  <link name="r_hand_index_skin_9"/>
  <joint name="r_hand_index_skin_9_fixed_joint" type="fixed">
    <origin xyz="-0.005929525942276352 -0.0011923339064378036 -0.03799999958526534" rpy="3.1415914410880514 1.2994443469481536 0.36443594312865046"/>
    <parent link="r_hand_index_3"/>
    <child link="r_hand_index_skin_9"/>
  </joint>
  <link name="r_hand_middle_skin_0"/>
  <joint name="r_hand_middle_skin_0_fixed_joint" type="fixed">
    <origin xyz="-2.0816681711721685e-17 -0.002433918058236506 -0.03140545777888887" rpy="-2.4397527287236403e-16 1.2225055986691193 -1.570796326794897"/>
    <parent link="r_hand_middle_2"/>
    <child link="r_hand_middle_skin_0"/>
  </joint>
  <link name="r_hand_middle_skin_1"/>
  <joint name="r_hand_middle_skin_1_fixed_joint" type="fixed">
    <origin xyz="0.003299999999999987 -0.0031311476143918993 -0.033280418005286916" rpy="-2.4236682262019717e-16 1.2200949024613599 -1.5707963267948972"/>
    <parent link="r_hand_middle_2"/>
    <child link="r_hand_middle_skin_1"/>
  </joint>
  <link name="r_hand_middle_skin_10"/>
  <joint name="r_hand_middle_skin_10_fixed_joint" type="fixed">
    <origin xyz="-0.0033000000000000113 -0.004081940988398369 -0.03776668459795801" rpy="-3.141592653589792 1.5049109712528799 1.5707963267948983"/>
    <parent link="r_hand_middle_2"/>
    <child link="r_hand_middle_skin_10"/>
  </joint>
  <link name="r_hand_middle_skin_11"/>
  <joint name="r_hand_middle_skin_11_fixed_joint" type="fixed">
    <origin xyz="-0.003300000000000025 -0.0031311476143918715 -0.03328041800528686" rpy="-2.4236682262019727e-16 1.2200949024613594 -1.5707963267948972"/>
    <parent link="r_hand_middle_2"/>
    <child link="r_hand_middle_skin_11"/>
  </joint>
  <link name="r_hand_middle_skin_2"/>
  <joint name="r_hand_middle_skin_2_fixed_joint" type="fixed">
    <origin xyz="-4.5102810375396984e-17 -0.003758241653579991 -0.035192049408458936" rpy="-3.177873773164535e-16 1.3056813328515076 -1.5707963267948972"/>
    <parent link="r_hand_middle_2"/>
    <child link="r_hand_middle_skin_2"/>
  </joint>
  <link name="r_hand_middle_skin_3"/>
  <joint name="r_hand_middle_skin_3_fixed_joint" type="fixed">
    <origin xyz="0.003299999999999942 -0.004081940988398425 -0.03776668459795801" rpy="-3.141592653589792 1.5049109712528799 1.5707963267948986"/>
    <parent link="r_hand_middle_2"/>
    <child link="r_hand_middle_skin_3"/>
  </joint>
  <link name="r_hand_middle_skin_4"/>
  <joint name="r_hand_middle_skin_4_fixed_joint" type="fixed">
    <origin xyz="0.005929525942276321 -0.001192320688661208 -0.03799999999999998" rpy="-3.141592653589792 1.2994442229713614 2.7771555423255876"/>
    <parent link="r_hand_middle_2"/>
    <child link="r_hand_middle_skin_4"/>
  </joint>
  <link name="r_hand_middle_skin_5"/>
  <joint name="r_hand_middle_skin_5_fixed_joint" type="fixed">
    <origin xyz="-2.42861286636753e-17 -0.0034840921633511046 -0.03982136611863335" rpy="-3.141592653589793 1.08875132979836 1.5707963267948968"/>
    <parent link="r_hand_middle_2"/>
    <child link="r_hand_middle_skin_5"/>
  </joint>
  <link name="r_hand_middle_skin_6"/>
  <joint name="r_hand_middle_skin_6_fixed_joint" type="fixed">
    <origin xyz="0.0032999999999999766 -0.0018288017188733963 -0.041769634404151934" rpy="-3.1415926535897927 0.778815589313783 2.532067756581199"/>
    <parent link="r_hand_middle_2"/>
    <child link="r_hand_middle_skin_6"/>
  </joint>
  <link name="r_hand_middle_skin_7"/>
  <joint name="r_hand_middle_skin_7_fixed_joint" type="fixed">
    <origin xyz="-5.204170427930421e-17 -2.9018466437888413e-4 -0.04325964091188089" rpy="-3.141592653589793 0.6209480183022739 1.5712124826321157"/>
    <parent link="r_hand_middle_2"/>
    <child link="r_hand_middle_skin_7"/>
  </joint>
  <link name="r_hand_middle_skin_8"/>
  <joint name="r_hand_middle_skin_8_fixed_joint" type="fixed">
    <origin xyz="-0.0033000000000000217 -0.0018288017188733408 -0.04176963440415199" rpy="3.1415926535897927 0.778815589313783 0.6095248970085936"/>
    <parent link="r_hand_middle_2"/>
    <child link="r_hand_middle_skin_8"/>
  </joint>
  <link name="r_hand_middle_skin_9"/>
  <joint name="r_hand_middle_skin_9_fixed_joint" type="fixed">
    <origin xyz="-0.00592952594227638 -0.0011923206886611526 -0.03799999999999998" rpy="3.141592653589792 1.299444222971361 0.3644371112642049"/>
    <parent link="r_hand_middle_2"/>
    <child link="r_hand_middle_skin_9"/>
  </joint>
  <link name="r_hand_pinkie_skin_0"/>
  <joint name="r_hand_pinkie_skin_0_fixed_joint" type="fixed">
    <origin xyz="0 -0.0024339180582408637 -0.03140545777888881" rpy="2.6430654561173425e-16 1.2225055986691284 -1.5707963267948966"/>
    <parent link="r_hand_pinkie_2"/>
    <child link="r_hand_pinkie_skin_0"/>
  </joint>
  <link name="r_hand_pinkie_skin_1"/>
  <joint name="r_hand_pinkie_skin_1_fixed_joint" type="fixed">
    <origin xyz="0.0033000000000000113 -0.0031311476143962846 -0.03328041800528675" rpy="1.8177511696515236e-16 1.2200949024613699 -1.5707963267948966"/>
    <parent link="r_hand_pinkie_2"/>
    <child link="r_hand_pinkie_skin_1"/>
  </joint>
  <link name="r_hand_pinkie_skin_10"/>
  <joint name="r_hand_pinkie_skin_10_fixed_joint" type="fixed">
    <origin xyz="-0.0032999999999999974 -0.004081940988402782 -0.037766684597957845" rpy="3.1415926535897922 1.5049109712528714 1.5707963267948974"/>
    <parent link="r_hand_pinkie_2"/>
    <child link="r_hand_pinkie_skin_10"/>
  </joint>
  <link name="r_hand_pinkie_skin_11"/>
  <joint name="r_hand_pinkie_skin_11_fixed_joint" type="fixed">
    <origin xyz="-0.0032999999999999904 -0.0031311476143963124 -0.033280418005286805" rpy="1.8177511696515236e-16 1.2200949024613699 -1.5707963267948966"/>
    <parent link="r_hand_pinkie_2"/>
    <child link="r_hand_pinkie_skin_11"/>
  </joint>
  <link name="r_hand_pinkie_skin_2"/>
  <joint name="r_hand_pinkie_skin_2_fixed_joint" type="fixed">
    <origin xyz="0 -0.003758241653584321 -0.03519204940845877" rpy="3.17787377316464e-16 1.3056813328515169 -1.5707963267948966"/>
    <parent link="r_hand_pinkie_2"/>
    <child link="r_hand_pinkie_skin_2"/>
  </joint>
  <link name="r_hand_pinkie_skin_3"/>
  <joint name="r_hand_pinkie_skin_3_fixed_joint" type="fixed">
    <origin xyz="0.003300000000000018 -0.004081940988402699 -0.0377666845979579" rpy="3.1415926535897922 1.5049109712528714 1.5707963267948977"/>
    <parent link="r_hand_pinkie_2"/>
    <child link="r_hand_pinkie_skin_3"/>
  </joint>
  <link name="r_hand_pinkie_skin_4"/>
  <joint name="r_hand_pinkie_skin_4_fixed_joint" type="fixed">
    <origin xyz="0.005929525942276366 -0.0011923206886655102 -0.03799999999999981" rpy="3.1415926535897625 1.2994442229713585 2.777155542325558"/>
    <parent link="r_hand_pinkie_2"/>
    <child link="r_hand_pinkie_skin_4"/>
  </joint>
  <link name="r_hand_pinkie_skin_5"/>
  <joint name="r_hand_pinkie_skin_5_fixed_joint" type="fixed">
    <origin xyz="1.3877787807814457e-17 -0.00348409216335549 -0.03982136611863324" rpy="3.141592653589793 1.0887513297983513 1.5707963267948968"/>
    <parent link="r_hand_pinkie_2"/>
    <child link="r_hand_pinkie_skin_5"/>
  </joint>
  <link name="r_hand_pinkie_skin_6"/>
  <joint name="r_hand_pinkie_skin_6_fixed_joint" type="fixed">
    <origin xyz="0.0033000000000000043 -0.0018288017188776429 -0.04176963440415177" rpy="3.1415926535897833 0.778815589313778 2.532067756581192"/>
    <parent link="r_hand_pinkie_2"/>
    <child link="r_hand_pinkie_skin_6"/>
  </joint>
  <link name="r_hand_pinkie_skin_7"/>
  <joint name="r_hand_pinkie_skin_7_fixed_joint" type="fixed">
    <origin xyz="-6.938893903907228e-18 -2.901846643830752e-4 -0.04325964091188084" rpy="3.141592653589793 0.620948018302265 1.5712124826321159"/>
    <parent link="r_hand_pinkie_2"/>
    <child link="r_hand_pinkie_skin_7"/>
  </joint>
  <link name="r_hand_pinkie_skin_8"/>
  <joint name="r_hand_pinkie_skin_8_fixed_joint" type="fixed">
    <origin xyz="-0.0032999999999999904 -0.0018288017188776429 -0.04176963440415177" rpy="-3.1415926535897833 0.7788155893137778 0.6095248970086008"/>
    <parent link="r_hand_pinkie_2"/>
    <child link="r_hand_pinkie_skin_8"/>
  </joint>
  <link name="r_hand_pinkie_skin_9"/>
  <joint name="r_hand_pinkie_skin_9_fixed_joint" type="fixed">
    <origin xyz="-0.005929525942276352 -0.0011923206886654825 -0.03799999999999981" rpy="-3.141592653589763 1.299444222971359 0.3644371112642355"/>
    <parent link="r_hand_pinkie_2"/>
    <child link="r_hand_pinkie_skin_9"/>
  </joint>
  <link name="r_hand_ring_skin_0"/>
  <joint name="r_hand_ring_skin_0_fixed_joint" type="fixed">
    <origin xyz="3.469446951953614e-18 -0.0024339182743748355 -0.03140545776213821" rpy="1.4231890647798227e-16 1.222505591786931 -1.5707963267948966"/>
    <parent link="r_hand_ring_2"/>
    <child link="r_hand_ring_skin_0"/>
  </joint>
  <link name="r_hand_ring_skin_1"/>
  <joint name="r_hand_ring_skin_1_fixed_joint" type="fixed">
    <origin xyz="0.0032999999999999974 -0.0031311478434340456 -0.03328041798373782" rpy="1.4138064386867392e-16 1.2200948955791715 -1.5707963267948966"/>
    <parent link="r_hand_ring_2"/>
    <child link="r_hand_ring_skin_1"/>
  </joint>
  <link name="r_hand_ring_skin_10"/>
  <joint name="r_hand_ring_skin_10_fixed_joint" type="fixed">
    <origin xyz="-0.0033000000000000113 -0.004081941248315957 -0.03776668456986537" rpy="3.1415926535897927 1.5049109781350702 1.5707963267948977"/>
    <parent link="r_hand_ring_2"/>
    <child link="r_hand_ring_skin_10"/>
  </joint>
  <link name="r_hand_ring_skin_11"/>
  <joint name="r_hand_ring_skin_11_fixed_joint" type="fixed">
    <origin xyz="-0.0033000000000000026 -0.0031311478434340456 -0.033280417983737876" rpy="1.4138064386867392e-16 1.2200948955791715 -1.5707963267948966"/>
    <parent link="r_hand_ring_2"/>
    <child link="r_hand_ring_skin_11"/>
  </joint>
  <link name="r_hand_ring_skin_2"/>
  <joint name="r_hand_ring_skin_2_fixed_joint" type="fixed">
    <origin xyz="1.214306433183765e-17 -0.0037582418957782804 -0.035192049382594015" rpy="1.324114038587985e-16 1.305681325969319 -1.5707963267948966"/>
    <parent link="r_hand_ring_2"/>
    <child link="r_hand_ring_skin_2"/>
  </joint>
  <link name="r_hand_ring_skin_3"/>
  <joint name="r_hand_ring_skin_3_fixed_joint" type="fixed">
    <origin xyz="0.003299999999999987 -0.004081941248315901 -0.03776668456986537" rpy="3.1415926535897927 1.5049109781350702 1.5707963267948974"/>
    <parent link="r_hand_ring_2"/>
    <child link="r_hand_ring_skin_3"/>
  </joint>
  <link name="r_hand_ring_skin_4"/>
  <joint name="r_hand_ring_skin_4_fixed_joint" type="fixed">
    <origin xyz="0.005929525942276352 -0.0011923209501843446 -0.03799999999179421" rpy="-3.1415926295995895 1.2994442254243346 2.777155565437974"/>
    <parent link="r_hand_ring_2"/>
    <child link="r_hand_ring_skin_4"/>
  </joint>
  <link name="r_hand_ring_skin_5"/>
  <joint name="r_hand_ring_skin_5_fixed_joint" type="fixed">
    <origin xyz="-1.214306433183765e-17 -0.0034840924374092974 -0.03982136609465514" rpy="3.141592653589793 1.0887513366805477 1.570796326794897"/>
    <parent link="r_hand_ring_2"/>
    <child link="r_hand_ring_skin_5"/>
  </joint>
  <link name="r_hand_ring_skin_6"/>
  <joint name="r_hand_ring_skin_6_fixed_joint" type="fixed">
    <origin xyz="0.0032999999999999974 -0.0018288020063398913 -0.04176963439156578" rpy="-3.141592645661621 0.7788155932536848 2.53206776215024"/>
    <parent link="r_hand_ring_2"/>
    <child link="r_hand_ring_skin_6"/>
  </joint>
  <link name="r_hand_ring_skin_7"/>
  <joint name="r_hand_ring_skin_7_fixed_joint" type="fixed">
    <origin xyz="3.469446951953614e-18 -2.901849620998431e-4 -0.04325964090988388" rpy="-3.141592653586272 0.6209480251844615 1.5712124826341647"/>
    <parent link="r_hand_ring_2"/>
    <child link="r_hand_ring_skin_7"/>
  </joint>
  <link name="r_hand_ring_skin_8"/>
  <joint name="r_hand_ring_skin_8_fixed_joint" type="fixed">
    <origin xyz="-0.0032999999999999956 -0.0018288020063398913 -0.04176963439156589" rpy="3.141592645661621 0.7788155932536843 0.6095248914395535"/>
    <parent link="r_hand_ring_2"/>
    <child link="r_hand_ring_skin_8"/>
  </joint>
  <link name="r_hand_ring_skin_9"/>
  <joint name="r_hand_ring_skin_9_fixed_joint" type="fixed">
    <origin xyz="-0.0059295259422763695 -0.0011923209501843723 -0.03799999999179421" rpy="3.141592629599589 1.2994442254243332 0.36443708815181947"/>
    <parent link="r_hand_ring_2"/>
    <child link="r_hand_ring_skin_9"/>
  </joint>
  <link name="r_sole"/>
  <joint name="r_sole_fixed_joint" type="fixed">
    <origin xyz="0.05963 -1.3877787807814457e-17 -0.02429999999999999" rpy="0 3.1371750050201436e-30 0"/>
    <parent link="r_foot_rear"/>
    <child link="r_sole"/>
  </joint>
  <link name="r_hand_thumb_skin_0"/>
  <joint name="r_hand_thumb_skin_0_fixed_joint" type="fixed">
    <origin xyz="0.02640545777888894 -0.002433918058236617 0" rpy="-1.5707963267948961 2.220446049250313e-16 2.793301925464017"/>
    <parent link="r_hand_thumb_3"/>
    <child link="r_hand_thumb_skin_0"/>
  </joint>
  <link name="r_hand_thumb_skin_1"/>
  <joint name="r_hand_thumb_skin_1_fixed_joint" type="fixed">
    <origin xyz="0.028280418005286932 -0.0031311476143919825 0.003300000000000025" rpy="-1.570796326794896 -7.216449660063518e-16 -2.1816615649914324"/>
    <parent link="r_hand_thumb_3"/>
    <child link="r_hand_thumb_skin_1"/>
  </joint>
  <link name="r_hand_thumb_skin_10"/>
  <joint name="r_hand_thumb_skin_10_fixed_joint" type="fixed">
    <origin xyz="0.03276668459795807 -0.00408194098839848 -0.003300000000000025" rpy="-1.5707963267948961 5.551115123125783e-17 -3.075707298047779"/>
    <parent link="r_hand_thumb_3"/>
    <child link="r_hand_thumb_skin_10"/>
  </joint>
  <link name="r_hand_thumb_skin_11"/>
  <joint name="r_hand_thumb_skin_11_fixed_joint" type="fixed">
    <origin xyz="0.028280418005286953 -0.0031311476143919825 -0.0032999999999999974" rpy="-1.5707963267948961 1.6653345369377348e-16 2.790891229256258"/>
    <parent link="r_hand_thumb_3"/>
    <child link="r_hand_thumb_skin_11"/>
  </joint>
  <link name="r_hand_thumb_skin_2"/>
  <joint name="r_hand_thumb_skin_2_fixed_joint" type="fixed">
    <origin xyz="0.030192049408458994 -0.003758241653580019 0" rpy="-1.5707963267948961 2.7755575615628914e-16 2.8764776596464054"/>
    <parent link="r_hand_thumb_3"/>
    <child link="r_hand_thumb_skin_2"/>
  </joint>
  <link name="r_hand_thumb_skin_3"/>
  <joint name="r_hand_thumb_skin_3_fixed_joint" type="fixed">
    <origin xyz="0.03276668459795803 -0.004081940988398508 0.0032999999999999974" rpy="-1.570796326794896 -8.326672684688674e-16 -2.1816615649914324"/>
    <parent link="r_hand_thumb_3"/>
    <child link="r_hand_thumb_skin_3"/>
  </joint>
  <link name="r_hand_thumb_skin_4"/>
  <joint name="r_hand_thumb_skin_4_fixed_joint" type="fixed">
    <origin xyz="0.03300000000000006 -0.0011923206886612636 0.005929525942276415" rpy="-3.1415926535897927 2.220446049250313e-16 -3.1415926535883125"/>
    <parent link="r_hand_thumb_3"/>
    <child link="r_hand_thumb_skin_4"/>
  </joint>
  <link name="r_hand_thumb_skin_5"/>
  <joint name="r_hand_thumb_skin_5_fixed_joint" type="fixed">
    <origin xyz="0.03482136611863341 -0.0034840921633512434 0" rpy="-1.5707963267948961 -1.6653345369377348e-16 -2.659547656593256"/>
    <parent link="r_hand_thumb_3"/>
    <child link="r_hand_thumb_skin_5"/>
  </joint>
  <link name="r_hand_thumb_skin_6"/>
  <joint name="r_hand_thumb_skin_6_fixed_joint" type="fixed">
    <origin xyz="0.036769634404151964 -0.0018288017188734518 0.0032999999999999974" rpy="1.570796326794897 -2.220446049250313e-16 -2.399827721490722"/>
    <parent link="r_hand_thumb_3"/>
    <child link="r_hand_thumb_skin_6"/>
  </joint>
  <link name="r_hand_thumb_skin_7"/>
  <joint name="r_hand_thumb_skin_7_fixed_joint" type="fixed">
    <origin xyz="0.03825964091188099 -2.901846643789119e-4 0" rpy="-1.5705542046266139 -3.3847088311368976e-4 -2.191744386072823"/>
    <parent link="r_hand_thumb_3"/>
    <child link="r_hand_thumb_skin_7"/>
  </joint>
  <link name="r_hand_thumb_skin_8"/>
  <joint name="r_hand_thumb_skin_8_fixed_joint" type="fixed">
    <origin xyz="0.036769634404152 -0.0018288017188734518 -0.003300000000000025" rpy="-2.3592109405351698 0.6231239758157898 -2.6159603834403367"/>
    <parent link="r_hand_thumb_3"/>
    <child link="r_hand_thumb_skin_8"/>
  </joint>
  <link name="r_hand_thumb_skin_9"/>
  <joint name="r_hand_thumb_skin_9_fixed_joint" type="fixed">
    <origin xyz="0.03300000000000001 -0.0011923206886612636 -0.005929525942276359" rpy="-2.7645689049691455 0.25312544974719 -3.042753660865159"/>
    <parent link="r_hand_thumb_3"/>
    <child link="r_hand_thumb_skin_9"/>
  </joint>
  <link name="waist_imu_0"/>
  <joint name="waist_imu_0_fixed_joint" type="fixed">
    <origin xyz="0.0606 -0.00639428 0.01745" rpy="1.5708 -0.000105208 -1.5708"/>
    <parent link="torso_1"/>
    <child link="waist_imu_0"/>
    <dynamics damping="0.1"/>
  </joint>
  <gazebo>
    <plugin name="ergocub_yarp_gazebo_plugin_IMU" filename="libgazebo_yarp_imu.so">
      <yarpConfigurationFile>model://ergoCub/conf/gazebo_ergocub_waist_inertial.ini</yarpConfigurationFile>
    </plugin>
  </gazebo>
  <gazebo reference="torso_1">
    <sensor name="waist_imu_0" type="imu">
      <always_on>1</always_on>
      <update_rate>100</update_rate>
      <pose>0.0606 -0.00639428 0.01745 1.5708 -0.000105208 -1.5708</pose>
      <plugin name="ergocub_yarp_gazebo_plugin_IMU" filename="libgazebo_yarp_imu.so">
        <yarpConfigurationFile>model://ergoCub/conf/gazebo_ergocub_waist_inertial.ini</yarpConfigurationFile>
      </plugin>
    </sensor>
  </gazebo>
  <gazebo>
    <plugin name="gzyarp::Imu" filename="gz-sim-yarp-imu-system">
      <yarpConfigurationFile>model://ergoCub/conf/gazebo_ergocub_waist_inertial.ini</yarpConfigurationFile>
    </plugin>
  </gazebo>
  <sensor name="waist_imu_0" type="accelerometer">
    <parent link="torso_1"/>
    <origin xyz="0.0606 -0.00639428 0.01745" rpy="1.5708 -0.000105208 -1.5708"/>
  </sensor>
  <link name="base_link"/>
  <joint name="base_link_fixed_joint" type="fixed">
    <origin xyz="0 0 0" rpy="0 -0 0"/>
    <axis xyz="0 0 0"/>
    <parent link="root_link"/>
    <child link="base_link"/>
  </joint>
  <gazebo reference="r_arm_ft_sensor">
    <preserveFixedJoint>true</preserveFixedJoint>
    <!-- For compatibility with SDFormat < 4.4 -->
    <disableFixedJointLumping>true</disableFixedJointLumping>
  </gazebo>
  <gazebo reference="l_arm_ft_sensor">
    <preserveFixedJoint>true</preserveFixedJoint>
    <!-- For compatibility with SDFormat < 4.4 -->
    <disableFixedJointLumping>true</disableFixedJointLumping>
  </gazebo>
  <gazebo>
    <plugin name="gzyarp::ForceTorque" filename="gz-sim-yarp-forcetorque-system">
      <yarpConfigurationFile>model://ergoCub/conf/FT/gazebo_ergocub_left_arm_ft.ini</yarpConfigurationFile>
    </plugin>
  </gazebo>
  <gazebo>
    <plugin name="gzyarp::ForceTorque" filename="gz-sim-yarp-forcetorque-system">
      <yarpConfigurationFile>model://ergoCub/conf/FT/gazebo_ergocub_right_arm_ft.ini</yarpConfigurationFile>
    </plugin>
  </gazebo>
  <gazebo>
    <plugin name="gzyarp::Imu" filename="gz-sim-yarp-imu-system">
      <yarpConfigurationFile>model://ergoCub/conf/gazebo_ergocub_l_arm_ft_sensor_inertial.ini</yarpConfigurationFile>
    </plugin>
  </gazebo>
  <gazebo>
    <plugin name="gzyarp::Imu" filename="gz-sim-yarp-imu-system">
      <yarpConfigurationFile>model://ergoCub/conf/gazebo_ergocub_r_arm_ft_sensor_inertial.ini</yarpConfigurationFile>
    </plugin>
  </gazebo>
  <gazebo>
    <plugin name="controlboard_torso" filename="libgazebo_yarp_controlboard.so">
      <yarpConfigurationFile>model://ergoCub/conf/gazebo_ergocub_torso.ini</yarpConfigurationFile>
    </plugin>
  </gazebo>
  <gazebo>
    <plugin name="gzyarp::ControlBoard" filename="gz-sim-yarp-controlboard-system">
      <yarpConfigurationFile>model://ergoCub/conf/gazebo_ergocub_torso.ini</yarpConfigurationFile>
    </plugin>
  </gazebo>
  <gazebo reference="torso_pitch">
    <implicitSpringDamper>1</implicitSpringDamper>
  </gazebo>
  <gazebo reference="torso_roll">
    <implicitSpringDamper>1</implicitSpringDamper>
  </gazebo>
  <gazebo reference="torso_yaw">
    <implicitSpringDamper>1</implicitSpringDamper>
  </gazebo>
  <gazebo reference="r_shoulder_pitch">
    <implicitSpringDamper>1</implicitSpringDamper>
  </gazebo>
  <gazebo reference="r_shoulder_roll">
    <implicitSpringDamper>1</implicitSpringDamper>
  </gazebo>
  <gazebo reference="r_shoulder_yaw">
    <implicitSpringDamper>1</implicitSpringDamper>
  </gazebo>
  <gazebo reference="l_shoulder_pitch">
    <implicitSpringDamper>1</implicitSpringDamper>
  </gazebo>
  <gazebo reference="l_shoulder_roll">
    <implicitSpringDamper>1</implicitSpringDamper>
  </gazebo>
  <gazebo reference="l_shoulder_yaw">
    <implicitSpringDamper>1</implicitSpringDamper>
  </gazebo>
  <gazebo reference="l_leg_ft_sensor">
    <preserveFixedJoint>true</preserveFixedJoint>
    <!-- For compatibility with SDFormat < 4.4 -->
    <disableFixedJointLumping>true</disableFixedJointLumping>
  </gazebo>
  <gazebo reference="l_foot_front_ft_sensor">
    <preserveFixedJoint>true</preserveFixedJoint>
    <!-- For compatibility with SDFormat < 4.4 -->
    <disableFixedJointLumping>true</disableFixedJointLumping>
  </gazebo>
  <gazebo reference="l_foot_rear_ft_sensor">
    <preserveFixedJoint>true</preserveFixedJoint>
    <!-- For compatibility with SDFormat < 4.4 -->
    <disableFixedJointLumping>true</disableFixedJointLumping>
  </gazebo>
  <gazebo reference="l_foot_front">
    <collision>
      <surface>
        <bounce>
          <restitution_coefficient>0</restitution_coefficient>
          <threshold>100000</threshold>
        </bounce>
      </surface>
    </collision>
    <maxContacts>4</maxContacts>
    <kp>18000000</kp>
    <kd>100</kd>
    <maxVel>100</maxVel>
    <minDepth>0.0001</minDepth>
    <mu1>1</mu1>
    <mu2>1</mu2>
    <fdir1>0 0 0</fdir1>
  </gazebo>
  <gazebo reference="l_foot_rear">
    <collision>
      <surface>
        <bounce>
          <restitution_coefficient>0</restitution_coefficient>
          <threshold>100000</threshold>
        </bounce>
      </surface>
    </collision>
    <maxContacts>4</maxContacts>
    <kp>18000000</kp>
    <kd>100</kd>
    <maxVel>100</maxVel>
    <minDepth>0.0001</minDepth>
    <mu1>1</mu1>
    <mu2>1</mu2>
    <fdir1>0 0 0</fdir1>
  </gazebo>
  <gazebo>
    <plugin name="gzyarp::ForceTorque" filename="gz-sim-yarp-forcetorque-system">
      <yarpConfigurationFile>model://ergoCub/conf/FT/gazebo_ergocub_left_leg_ft.ini</yarpConfigurationFile>
    </plugin>
  </gazebo>
  <gazebo>
    <plugin name="gzyarp::ForceTorque" filename="gz-sim-yarp-forcetorque-system">
      <yarpConfigurationFile>model://ergoCub/conf/FT/gazebo_ergocub_left_foot_front_ft.ini</yarpConfigurationFile>
    </plugin>
  </gazebo>
  <gazebo>
    <plugin name="gzyarp::ForceTorque" filename="gz-sim-yarp-forcetorque-system">
      <yarpConfigurationFile>model://ergoCub/conf/FT/gazebo_ergocub_left_foot_rear_ft.ini</yarpConfigurationFile>
    </plugin>
  </gazebo>
  <gazebo>
    <plugin name="gzyarp::Imu" filename="gz-sim-yarp-imu-system">
      <yarpConfigurationFile>model://ergoCub/conf/gazebo_ergocub_l_foot_front_ft_sensor_inertial.ini</yarpConfigurationFile>
    </plugin>
  </gazebo>
  <gazebo>
    <plugin name="gzyarp::Imu" filename="gz-sim-yarp-imu-system">
      <yarpConfigurationFile>model://ergoCub/conf/gazebo_ergocub_l_foot_rear_ft_sensor_inertial.ini</yarpConfigurationFile>
    </plugin>
  </gazebo>
  <gazebo>
    <plugin name="gzyarp::Imu" filename="gz-sim-yarp-imu-system">
      <yarpConfigurationFile>model://ergoCub/conf/gazebo_ergocub_l_leg_ft_sensor_inertial.ini</yarpConfigurationFile>
    </plugin>
  </gazebo>
  <gazebo>
    <plugin name="controlboard_left_leg" filename="libgazebo_yarp_controlboard.so">
      <yarpConfigurationFile>model://ergoCub/conf/gazebo_ergocub_left_leg.ini</yarpConfigurationFile>
    </plugin>
  </gazebo>
  <gazebo>
    <plugin name="gzyarp::ControlBoard" filename="gz-sim-yarp-controlboard-system">
      <yarpConfigurationFile>model://ergoCub/conf/gazebo_ergocub_left_leg.ini</yarpConfigurationFile>
    </plugin>
  </gazebo>
  <gazebo reference="l_hip_pitch">
    <implicitSpringDamper>1</implicitSpringDamper>
  </gazebo>
  <gazebo reference="l_hip_roll">
    <implicitSpringDamper>1</implicitSpringDamper>
  </gazebo>
  <gazebo reference="l_hip_yaw">
    <implicitSpringDamper>1</implicitSpringDamper>
  </gazebo>
  <gazebo reference="l_knee">
    <implicitSpringDamper>1</implicitSpringDamper>
  </gazebo>
  <gazebo reference="l_ankle_pitch">
    <implicitSpringDamper>1</implicitSpringDamper>
  </gazebo>
  <gazebo reference="l_ankle_roll">
    <implicitSpringDamper>1</implicitSpringDamper>
  </gazebo>
  <gazebo reference="r_leg_ft_sensor">
    <preserveFixedJoint>true</preserveFixedJoint>
    <!-- For compatibility with SDFormat < 4.4 -->
    <disableFixedJointLumping>true</disableFixedJointLumping>
  </gazebo>
  <gazebo reference="r_foot_front_ft_sensor">
    <preserveFixedJoint>true</preserveFixedJoint>
    <!-- For compatibility with SDFormat < 4.4 -->
    <disableFixedJointLumping>true</disableFixedJointLumping>
  </gazebo>
  <gazebo reference="r_foot_rear_ft_sensor">
    <preserveFixedJoint>true</preserveFixedJoint>
    <!-- For compatibility with SDFormat < 4.4 -->
    <disableFixedJointLumping>true</disableFixedJointLumping>
  </gazebo>
  <gazebo reference="r_foot_front">
    <collision>
      <surface>
        <bounce>
          <restitution_coefficient>0</restitution_coefficient>
          <threshold>100000</threshold>
        </bounce>
      </surface>
    </collision>
    <maxContacts>4</maxContacts>
    <kp>18000000</kp>
    <kd>100</kd>
    <maxVel>100</maxVel>
    <minDepth>0.0001</minDepth>
    <mu1>1</mu1>
    <mu2>1</mu2>
    <fdir1>0 0 0</fdir1>
  </gazebo>
  <gazebo reference="r_foot_rear">
    <collision>
      <surface>
        <bounce>
          <restitution_coefficient>0</restitution_coefficient>
          <threshold>100000</threshold>
        </bounce>
      </surface>
    </collision>
    <maxContacts>4</maxContacts>
    <kp>18000000</kp>
    <kd>100</kd>
    <maxVel>100</maxVel>
    <minDepth>0.0001</minDepth>
    <mu1>1</mu1>
    <mu2>1</mu2>
    <fdir1>0 0 0</fdir1>
  </gazebo>
  <gazebo>
    <plugin name="gzyarp::ForceTorque" filename="gz-sim-yarp-forcetorque-system">
      <yarpConfigurationFile>model://ergoCub/conf/FT/gazebo_ergocub_right_leg_ft.ini</yarpConfigurationFile>
    </plugin>
  </gazebo>
  <gazebo>
    <plugin name="gzyarp::ForceTorque" filename="gz-sim-yarp-forcetorque-system">
      <yarpConfigurationFile>model://ergoCub/conf/FT/gazebo_ergocub_right_foot_front_ft.ini</yarpConfigurationFile>
    </plugin>
  </gazebo>
  <gazebo>
    <plugin name="gzyarp::ForceTorque" filename="gz-sim-yarp-forcetorque-system">
      <yarpConfigurationFile>model://ergoCub/conf/FT/gazebo_ergocub_right_foot_rear_ft.ini</yarpConfigurationFile>
    </plugin>
  </gazebo>
  <gazebo>
    <plugin name="gzyarp::Imu" filename="gz-sim-yarp-imu-system">
      <yarpConfigurationFile>model://ergoCub/conf/gazebo_ergocub_r_foot_front_ft_sensor_inertial.ini</yarpConfigurationFile>
    </plugin>
  </gazebo>
  <gazebo>
    <plugin name="gzyarp::Imu" filename="gz-sim-yarp-imu-system">
      <yarpConfigurationFile>model://ergoCub/conf/gazebo_ergocub_r_foot_rear_ft_sensor_inertial.ini</yarpConfigurationFile>
    </plugin>
  </gazebo>
  <gazebo>
    <plugin name="gzyarp::Imu" filename="gz-sim-yarp-imu-system">
      <yarpConfigurationFile>model://ergoCub/conf/gazebo_ergocub_r_leg_ft_sensor_inertial.ini</yarpConfigurationFile>
    </plugin>
  </gazebo>
  <gazebo>
    <plugin name="controlboard_right_leg" filename="libgazebo_yarp_controlboard.so">
      <yarpConfigurationFile>model://ergoCub/conf/gazebo_ergocub_right_leg.ini</yarpConfigurationFile>
    </plugin>
  </gazebo>
  <gazebo>
    <plugin name="gzyarp::ControlBoard" filename="gz-sim-yarp-controlboard-system">
      <yarpConfigurationFile>model://ergoCub/conf/gazebo_ergocub_right_leg.ini</yarpConfigurationFile>
    </plugin>
  </gazebo>
  <gazebo reference="r_hip_pitch">
    <implicitSpringDamper>1</implicitSpringDamper>
  </gazebo>
  <gazebo reference="r_hip_roll">
    <implicitSpringDamper>1</implicitSpringDamper>
  </gazebo>
  <gazebo reference="r_hip_yaw">
    <implicitSpringDamper>1</implicitSpringDamper>
  </gazebo>
  <gazebo reference="r_knee">
    <implicitSpringDamper>1</implicitSpringDamper>
  </gazebo>
  <gazebo reference="r_ankle_pitch">
    <implicitSpringDamper>1</implicitSpringDamper>
  </gazebo>
  <gazebo reference="r_ankle_roll">
    <implicitSpringDamper>1</implicitSpringDamper>
  </gazebo>
  <gazebo>
    <plugin name="gzyarp::Imu" filename="gz-sim-yarp-imu-system">
      <yarpConfigurationFile>model://ergoCub/conf/gazebo_ergocub_inertial.ini</yarpConfigurationFile>
    </plugin>
  </gazebo>
  <gazebo>
    <plugin name="gzyarp::Imu" filename="gz-sim-yarp-imu-system">
      <yarpConfigurationFile>model://ergoCub/conf/gazebo_ergocub_realsense_inertial.ini</yarpConfigurationFile>
    </plugin>
  </gazebo>
  <gazebo>
    <plugin name="gzyarp::Laser" filename="gz-sim-yarp-laser-system">
      <yarpConfigurationFile>model://ergoCub/conf/sensors/gazebo_ergocub_lidar.ini</yarpConfigurationFile>
    </plugin>
  </gazebo>
  <gazebo>
    <plugin name="controlboard_head" filename="libgazebo_yarp_controlboard.so">
      <yarpConfigurationFile>model://ergoCub/conf/gazebo_ergocub_head.ini</yarpConfigurationFile>
    </plugin>
  </gazebo>
  <gazebo>
    <plugin name="gzyarp::ControlBoard" filename="gz-sim-yarp-controlboard-system">
      <yarpConfigurationFile>model://ergoCub/conf/gazebo_ergocub_head.ini</yarpConfigurationFile>
    </plugin>
  </gazebo>
  <gazebo reference="neck_pitch">
    <implicitSpringDamper>1</implicitSpringDamper>
  </gazebo>
  <gazebo reference="neck_roll">
    <implicitSpringDamper>1</implicitSpringDamper>
  </gazebo>
  <gazebo reference="neck_yaw">
    <implicitSpringDamper>1</implicitSpringDamper>
  </gazebo>
  <gazebo>
    <plugin name="controlboard_left_arm_no_hand" filename="libgazebo_yarp_controlboard.so">
      <yarpConfigurationFile>model://ergoCub/conf/gazebo_ergocub_left_arm.ini</yarpConfigurationFile>
      <initialConfiguration>-0.52 0.52 0 0.785 0 0 0.0</initialConfiguration>
    </plugin>
  </gazebo>
  <gazebo>
    <plugin name="gzyarp::ControlBoard" filename="gz-sim-yarp-controlboard-system">
      <yarpConfigurationFile>model://ergoCub/conf/gazebo_ergocub_left_arm.ini</yarpConfigurationFile>
      <initialConfiguration>-0.52 0.52 0 0.785 0 0 0.0</initialConfiguration>
    </plugin>
  </gazebo>
  <gazebo>
    <plugin name="controlboard_left_hand" filename="libgazebo_yarp_controlboard.so">
      <yarpConfigurationFile>model://ergoCub/conf/gazebo_ergocub_left_hand_mk5_1.ini</yarpConfigurationFile>
    </plugin>
  </gazebo>
  <gazebo>
    <plugin name="gzyarp::ControlBoard" filename="gz-sim-yarp-controlboard-system">
      <yarpConfigurationFile>model://ergoCub/conf/gazebo_ergocub_left_hand_mk5_1.ini</yarpConfigurationFile>
    </plugin>
  </gazebo>
  <gazebo reference="l_shoulder_pitch">
    <implicitSpringDamper>1</implicitSpringDamper>
  </gazebo>
  <gazebo reference="l_shoulder_roll">
    <implicitSpringDamper>1</implicitSpringDamper>
  </gazebo>
  <gazebo reference="l_shoulder_yaw">
    <implicitSpringDamper>1</implicitSpringDamper>
  </gazebo>
  <gazebo reference="l_elbow">
    <implicitSpringDamper>1</implicitSpringDamper>
  </gazebo>
  <gazebo reference="l_wrist_roll">
    <implicitSpringDamper>1</implicitSpringDamper>
  </gazebo>
  <gazebo reference="l_wrist_pitch">
    <implicitSpringDamper>1</implicitSpringDamper>
  </gazebo>
  <gazebo reference="l_wrist_yaw">
    <implicitSpringDamper>1</implicitSpringDamper>
  </gazebo>
  <gazebo>
    <plugin name="controlboard_right_arm_no_hand" filename="libgazebo_yarp_controlboard.so">
      <yarpConfigurationFile>model://ergoCub/conf/gazebo_ergocub_right_arm.ini</yarpConfigurationFile>
      <initialConfiguration>-0.52 0.52 0 0.785 0 0 0.0</initialConfiguration>
    </plugin>
  </gazebo>
  <gazebo>
    <plugin name="gzyarp::ControlBoard" filename="gz-sim-yarp-controlboard-system">
      <yarpConfigurationFile>model://ergoCub/conf/gazebo_ergocub_right_arm.ini</yarpConfigurationFile>
      <initialConfiguration>-0.52 0.52 0 0.785 0 0 0.0</initialConfiguration>
    </plugin>
  </gazebo>
  <gazebo>
    <plugin name="controlboard_right_hand" filename="libgazebo_yarp_controlboard.so">
      <yarpConfigurationFile>model://ergoCub/conf/gazebo_ergocub_right_hand_mk5_1.ini</yarpConfigurationFile>
    </plugin>
  </gazebo>
  <gazebo>
    <plugin name="gzyarp::ControlBoard" filename="gz-sim-yarp-controlboard-system">
      <yarpConfigurationFile>model://ergoCub/conf/gazebo_ergocub_right_hand_mk5_1.ini</yarpConfigurationFile>
    </plugin>
  </gazebo>
  <gazebo reference="r_shoulder_pitch">
    <implicitSpringDamper>1</implicitSpringDamper>
  </gazebo>
  <gazebo reference="r_shoulder_roll">
    <implicitSpringDamper>1</implicitSpringDamper>
  </gazebo>
  <gazebo reference="r_shoulder_yaw">
    <implicitSpringDamper>1</implicitSpringDamper>
  </gazebo>
  <gazebo reference="r_elbow">
    <implicitSpringDamper>1</implicitSpringDamper>
  </gazebo>
  <gazebo reference="r_wrist_roll">
    <implicitSpringDamper>1</implicitSpringDamper>
  </gazebo>
  <gazebo reference="r_wrist_pitch">
    <implicitSpringDamper>1</implicitSpringDamper>
  </gazebo>
  <gazebo reference="r_wrist_yaw">
    <implicitSpringDamper>1</implicitSpringDamper>
  </gazebo>
  <gazebo>
    <plugin name="robotinterface" filename="libgazebo_yarp_robotinterface.so">
      <yarpRobotInterfaceConfigurationFile>model://ergoCub/conf/ergocub.xml</yarpRobotInterfaceConfigurationFile>
    </plugin>
  </gazebo>
  <gazebo>
    <plugin name="gzyarp::RobotInterface" filename="gz-sim-yarp-robotinterface-system">
      <yarpRobotInterfaceConfigurationFile>model://ergoCub/conf/ergocub_gz_sim.xml</yarpRobotInterfaceConfigurationFile>
    </plugin>
  </gazebo>
  <gazebo>
    <plugin filename="gz-sim-forcetorque-system" name="gz::sim::systems::ForceTorque"/>
  </gazebo>
  <gazebo>
    <plugin filename="gz-sim-imu-system" name="gz::sim::systems::Imu"/>
  </gazebo>
  <gazebo>
    <pose>0.000000 0.000000 0.800000 0.000000 0.000000 0.000000</pose>
  </gazebo>
  <gazebo reference="l_arm_ft_sensor">
    <sensor name="l_arm_ft" type="force_torque">
      <always_on>1</always_on>
      <update_rate>100</update_rate>
      <force_torque>
        <frame>sensor</frame>
        <measure_direction>child_to_parent</measure_direction>
      </force_torque>
      <pose>-3.46945e-18 0 0 3.14159 1.94289e-16 -1.5708 </pose>
      <plugin name="left_arm_ft_plugin" filename="libgazebo_yarp_forcetorque.so">
        <yarpConfigurationFile>model://ergoCub/conf/FT/gazebo_ergocub_left_arm_ft.ini</yarpConfigurationFile>
      </plugin>
    </sensor>
  </gazebo>
  <sensor name="l_arm_ft" type="force_torque">
    <parent joint="l_arm_ft_sensor"/>
    <force_torque>
      <frame>sensor</frame>
      <measure_direction>child_to_parent</measure_direction>
    </force_torque>
    <origin rpy="3.14159 1.94289e-16 -1.5708 " xyz="-3.46945e-18 0 0"/>
  </sensor>
  <gazebo reference="l_foot_front_ft_sensor">
    <sensor name="l_foot_front_ft" type="force_torque">
      <always_on>1</always_on>
      <update_rate>100</update_rate>
      <force_torque>
        <frame>sensor</frame>
        <measure_direction>parent_to_child</measure_direction>
      </force_torque>
      <pose>0 0 0 1.25667e-16 2.20112e-17 -2.0944 </pose>
      <plugin name="left_foot_front_ft_plugin" filename="libgazebo_yarp_forcetorque.so">
        <yarpConfigurationFile>model://ergoCub/conf/FT/gazebo_ergocub_left_foot_front_ft.ini</yarpConfigurationFile>
      </plugin>
    </sensor>
  </gazebo>
  <sensor name="l_foot_front_ft" type="force_torque">
    <parent joint="l_foot_front_ft_sensor"/>
    <force_torque>
      <frame>sensor</frame>
      <measure_direction>parent_to_child</measure_direction>
    </force_torque>
    <origin rpy="1.25667e-16 2.20112e-17 -2.0944 " xyz="0 0 0"/>
  </sensor>
  <gazebo reference="l_foot_rear_ft_sensor">
    <sensor name="l_foot_rear_ft" type="force_torque">
      <always_on>1</always_on>
      <update_rate>100</update_rate>
      <force_torque>
        <frame>sensor</frame>
        <measure_direction>parent_to_child</measure_direction>
      </force_torque>
      <pose>0 0 0 1.25667e-16 2.20112e-17 -2.0944 </pose>
      <plugin name="left_foot_rear_ft_plugin" filename="libgazebo_yarp_forcetorque.so">
        <yarpConfigurationFile>model://ergoCub/conf/FT/gazebo_ergocub_left_foot_rear_ft.ini</yarpConfigurationFile>
      </plugin>
    </sensor>
  </gazebo>
  <sensor name="l_foot_rear_ft" type="force_torque">
    <parent joint="l_foot_rear_ft_sensor"/>
    <force_torque>
      <frame>sensor</frame>
      <measure_direction>parent_to_child</measure_direction>
    </force_torque>
    <origin rpy="1.25667e-16 2.20112e-17 -2.0944 " xyz="0 0 0"/>
  </sensor>
  <gazebo reference="l_leg_ft_sensor">
    <sensor name="l_leg_ft" type="force_torque">
      <always_on>1</always_on>
      <update_rate>100</update_rate>
      <force_torque>
        <frame>sensor</frame>
        <measure_direction>child_to_parent</measure_direction>
      </force_torque>
      <pose>5.20417e-18 0 0 3.14159 -2.02132e-15 2.61799 </pose>
      <plugin name="left_leg_ft_plugin" filename="libgazebo_yarp_forcetorque.so">
        <yarpConfigurationFile>model://ergoCub/conf/FT/gazebo_ergocub_left_leg_ft.ini</yarpConfigurationFile>
      </plugin>
    </sensor>
  </gazebo>
  <sensor name="l_leg_ft" type="force_torque">
    <parent joint="l_leg_ft_sensor"/>
    <force_torque>
      <frame>sensor</frame>
      <measure_direction>child_to_parent</measure_direction>
    </force_torque>
    <origin rpy="3.14159 -2.02132e-15 2.61799 " xyz="5.20417e-18 0 0"/>
  </sensor>
  <gazebo reference="r_arm_ft_sensor">
    <sensor name="r_arm_ft" type="force_torque">
      <always_on>1</always_on>
      <update_rate>100</update_rate>
      <force_torque>
        <frame>sensor</frame>
        <measure_direction>child_to_parent</measure_direction>
      </force_torque>
      <pose>0 0 0 -3.14159 -2.77556e-17 1.5708 </pose>
      <plugin name="right_arm_ft_plugin" filename="libgazebo_yarp_forcetorque.so">
        <yarpConfigurationFile>model://ergoCub/conf/FT/gazebo_ergocub_right_arm_ft.ini</yarpConfigurationFile>
      </plugin>
    </sensor>
  </gazebo>
  <sensor name="r_arm_ft" type="force_torque">
    <parent joint="r_arm_ft_sensor"/>
    <force_torque>
      <frame>sensor</frame>
      <measure_direction>child_to_parent</measure_direction>
    </force_torque>
    <origin rpy="-3.14159 -2.77556e-17 1.5708 " xyz="0 0 0"/>
  </sensor>
  <gazebo reference="r_foot_front_ft_sensor">
    <sensor name="r_foot_front_ft" type="force_torque">
      <always_on>1</always_on>
      <update_rate>100</update_rate>
      <force_torque>
        <frame>sensor</frame>
        <measure_direction>parent_to_child</measure_direction>
      </force_torque>
      <pose>0 1.38778e-17 1.11022e-16 -1.0903e-16 -1.44222e-16 -2.0944 </pose>
      <plugin name="right_foot_front_ft_plugin" filename="libgazebo_yarp_forcetorque.so">
        <yarpConfigurationFile>model://ergoCub/conf/FT/gazebo_ergocub_right_foot_front_ft.ini</yarpConfigurationFile>
      </plugin>
    </sensor>
  </gazebo>
  <sensor name="r_foot_front_ft" type="force_torque">
    <parent joint="r_foot_front_ft_sensor"/>
    <force_torque>
      <frame>sensor</frame>
      <measure_direction>parent_to_child</measure_direction>
    </force_torque>
    <origin rpy="-1.0903e-16 -1.44222e-16 -2.0944 " xyz="0 1.38778e-17 1.11022e-16"/>
  </sensor>
  <gazebo reference="r_foot_rear_ft_sensor">
    <sensor name="r_foot_rear_ft" type="force_torque">
      <always_on>1</always_on>
      <update_rate>100</update_rate>
      <force_torque>
        <frame>sensor</frame>
        <measure_direction>parent_to_child</measure_direction>
      </force_torque>
      <pose>3.46945e-18 0 0 -1.0903e-16 -1.44222e-16 -2.0944 </pose>
      <plugin name="right_foot_rear_ft_plugin" filename="libgazebo_yarp_forcetorque.so">
        <yarpConfigurationFile>model://ergoCub/conf/FT/gazebo_ergocub_right_foot_rear_ft.ini</yarpConfigurationFile>
      </plugin>
    </sensor>
  </gazebo>
  <sensor name="r_foot_rear_ft" type="force_torque">
    <parent joint="r_foot_rear_ft_sensor"/>
    <force_torque>
      <frame>sensor</frame>
      <measure_direction>parent_to_child</measure_direction>
    </force_torque>
    <origin rpy="-1.0903e-16 -1.44222e-16 -2.0944 " xyz="3.46945e-18 0 0"/>
  </sensor>
  <gazebo reference="r_leg_ft_sensor">
    <sensor name="r_leg_ft" type="force_torque">
      <always_on>1</always_on>
      <update_rate>100</update_rate>
      <force_torque>
        <frame>sensor</frame>
        <measure_direction>child_to_parent</measure_direction>
      </force_torque>
      <pose>1.21431e-17 2.77556e-17 5.55112e-17 3.14159 2.98881e-16 -2.61799 </pose>
      <plugin name="right_leg_ft_plugin" filename="libgazebo_yarp_forcetorque.so">
        <yarpConfigurationFile>model://ergoCub/conf/FT/gazebo_ergocub_right_leg_ft.ini</yarpConfigurationFile>
      </plugin>
    </sensor>
  </gazebo>
  <sensor name="r_leg_ft" type="force_torque">
    <parent joint="r_leg_ft_sensor"/>
    <force_torque>
      <frame>sensor</frame>
      <measure_direction>child_to_parent</measure_direction>
    </force_torque>
    <origin rpy="3.14159 2.98881e-16 -2.61799 " xyz="1.21431e-17 2.77556e-17 5.55112e-17"/>
  </sensor>
  <gazebo reference="head">
    <sensor name="head_imu_0" type="imu">
      <always_on>1</always_on>
      <update_rate>100.000000</update_rate>
      <pose>-0.0043 -0.0055 0.0382345 -3.14159 -9.68848e-15 1.5708 </pose>
      <plugin name="ergocub_yarp_gazebo_plugin_IMU" filename="libgazebo_yarp_imu.so">
        <yarpConfigurationFile>model://ergoCub/conf/gazebo_ergocub_inertial.ini</yarpConfigurationFile>
      </plugin>
    </sensor>
  </gazebo>
  <sensor name="head_imu_0" type="accelerometer">
    <parent link="head"/>
    <origin rpy="-3.14159 -9.68848e-15 1.5708 " xyz="-0.0043 -0.0055 0.0382345"/>
  </sensor>
  <gazebo reference="realsense">
    <sensor name="realsense_head_depth" type="depth">
      <always_on>1</always_on>
      <update_rate>30.000000</update_rate>
      <pose>0.00751548 -0.0115 1.73521e-08 -1.5708 3.75968e-16 -1.5708 </pose>
      <camera name="intel_realsense_depth_camera">
        <pose>0 0 0 -1.57079 -1.57079 3.14159</pose>
        <horizontal_fov>1.2217</horizontal_fov>
        <distortion>
          <k1>0</k1>
          <k2>0</k2>
          <k3>0</k3>
          <p1>0</p1>
          <p2>0</p2>
          <center>319.5 239.5</center>
        </distortion>
        <image>
          <width>640</width>
          <height>480</height>
          <format>R8G8B8</format>
        </image>
        <clip>
          <near>0.175</near>
          <far>3000</far>
        </clip>
      </camera>
      <visualize>false</visualize>
      <plugin name="ergocub_yarp_gazebo_plugin_depthCamera" filename="libgazebo_yarp_depthCamera.so">
        <yarpConfigurationFile>model://ergoCub/conf/sensors/gazebo_ergocub_rgbd_camera.ini</yarpConfigurationFile>
      </plugin>
    </sensor>
  </gazebo>
  <sensor name="realsense_head_depth" type="depth">
    <parent link="realsense"/>
    <origin rpy="-1.5708 3.75968e-16 -1.5708 " xyz="0.00751548 -0.0115 1.73521e-08"/>
  </sensor>
  <gazebo reference="realsense">
    <sensor name="realsense_head_rgb" type="camera">
      <always_on>1</always_on>
      <update_rate>30.000000</update_rate>
      <pose>0.00751548 -0.0115 1.73521e-08 -1.5708 3.75968e-16 -1.5708 </pose>
      <camera name="intel_realsense_rgb_camera">
        <pose>0 0 0 -1.57079 -1.57079 3.14159</pose>
        <horizontal_fov>1.2217</horizontal_fov>
        <distortion>
          <k1>0</k1>
          <k2>0</k2>
          <k3>0</k3>
          <p1>0</p1>
          <p2>0</p2>
          <center>319.5 239.5</center>
        </distortion>
        <image>
          <width>640</width>
          <height>480</height>
          <format>R8G8B8</format>
        </image>
        <clip>
          <near>0.02</near>
          <far>3000</far>
        </clip>
      </camera>
      <visualize>false</visualize>
      <plugin name="ergocub_yarp_gazebo_plugin_camera" filename="libgazebo_yarp_camera.so">
        <yarpConfigurationFile>model://ergoCub/conf/gazebo_ergocub_rgb_camera.ini</yarpConfigurationFile>
      </plugin>
    </sensor>
  </gazebo>
  <sensor name="realsense_head_rgb" type="camera">
    <parent link="realsense"/>
    <origin rpy="-1.5708 3.75968e-16 -1.5708 " xyz="0.00751548 -0.0115 1.73521e-08"/>
  </sensor>
  <gazebo reference="realsense">
    <sensor name="realsense_imu_0" type="imu">
      <always_on>1</always_on>
      <update_rate>100.000000</update_rate>
      <pose>0.00751548 0.01 1.73521e-08 -1.5708 3.75968e-16 -1.5708 </pose>
      <plugin name="ergocub_yarp_gazebo_plugin_IMU" filename="libgazebo_yarp_imu.so">
        <yarpConfigurationFile>model://ergoCub/conf/gazebo_ergocub_realsense_inertial.ini</yarpConfigurationFile>
      </plugin>
    </sensor>
  </gazebo>
  <sensor name="realsense_imu_0" type="accelerometer">
    <parent link="realsense"/>
    <origin rpy="-1.5708 3.75968e-16 -1.5708 " xyz="0.00751548 0.01 1.73521e-08"/>
  </sensor>
  <gazebo reference="head">
    <sensor name="lasersensor_head" type="ray">
      <always_on>1</always_on>
      <update_rate>100.000000</update_rate>
      <pose>5e-05 -1.93855e-15 0.134802 9.72195e-15 5.33157e-15 3.16761e-15 </pose>
      <always_on>1</always_on>
      <visualize>true</visualize>
      <update_rate>40</update_rate>
      <ray>
        <scan>
          <horizontal>
            <samples>360</samples>
            <resolution>2</resolution>
            <min_angle>0</min_angle>
            <max_angle>6.28</max_angle>
          </horizontal>
        </scan>
        <range>
          <min>0.04</min>
          <max>5</max>
          <resolution>0.01</resolution>
        </range>
        <noise>
          <type>gaussian</type>
          <mean>0</mean>
          <stddev>0.005</stddev>
        </noise>
      </ray>
      <plugin name="ergocub_yarp_gazebo_plugin_laser" filename="libgazebo_yarp_lasersensor.so">
        <yarpConfigurationFile>model://ergoCub/conf/sensors/gazebo_ergocub_lidar.ini</yarpConfigurationFile>
      </plugin>
    </sensor>
  </gazebo>
  <sensor name="lasersensor_head" type="ray">
    <parent link="head"/>
    <origin rpy="9.72195e-15 5.33157e-15 3.16761e-15 " xyz="5e-05 -1.93855e-15 0.134802"/>
  </sensor>
  <gazebo reference="l_foot_front">
    <sensor name="l_foot_front_ft_imu" type="imu">
      <always_on>1</always_on>
      <update_rate>100.000000</update_rate>
      <pose>0 0 0 1.25667e-16 2.20112e-17 -2.0944 </pose>
      <plugin name="ergocub_yarp_gazebo_plugin_IMU" filename="libgazebo_yarp_imu.so">
        <yarpConfigurationFile>model://ergoCub/conf/gazebo_ergocub_l_foot_front_ft_sensor_inertial.ini</yarpConfigurationFile>
      </plugin>
    </sensor>
  </gazebo>
  <sensor name="l_foot_front_ft_imu" type="accelerometer">
    <parent link="l_foot_front"/>
    <origin rpy="1.25667e-16 2.20112e-17 -2.0944 " xyz="0 0 0"/>
  </sensor>
  <gazebo reference="l_foot_rear">
    <sensor name="l_foot_rear_ft_imu" type="imu">
      <always_on>1</always_on>
      <update_rate>100.000000</update_rate>
      <pose>0 0 0 1.25667e-16 2.20112e-17 -2.0944 </pose>
      <plugin name="ergocub_yarp_gazebo_plugin_IMU" filename="libgazebo_yarp_imu.so">
        <yarpConfigurationFile>model://ergoCub/conf/gazebo_ergocub_l_foot_rear_ft_sensor_inertial.ini</yarpConfigurationFile>
      </plugin>
    </sensor>
  </gazebo>
  <sensor name="l_foot_rear_ft_imu" type="accelerometer">
    <parent link="l_foot_rear"/>
    <origin rpy="1.25667e-16 2.20112e-17 -2.0944 " xyz="0 0 0"/>
  </sensor>
  <gazebo reference="r_foot_front">
    <sensor name="r_foot_front_ft_imu" type="imu">
      <always_on>1</always_on>
      <update_rate>100.000000</update_rate>
      <pose>0 1.38778e-17 1.11022e-16 -1.0903e-16 -1.44222e-16 -2.0944 </pose>
      <plugin name="ergocub_yarp_gazebo_plugin_IMU" filename="libgazebo_yarp_imu.so">
        <yarpConfigurationFile>model://ergoCub/conf/gazebo_ergocub_r_foot_front_ft_sensor_inertial.ini</yarpConfigurationFile>
      </plugin>
    </sensor>
  </gazebo>
  <sensor name="r_foot_front_ft_imu" type="accelerometer">
    <parent link="r_foot_front"/>
    <origin rpy="-1.0903e-16 -1.44222e-16 -2.0944 " xyz="0 1.38778e-17 1.11022e-16"/>
  </sensor>
  <gazebo reference="r_foot_rear">
    <sensor name="r_foot_rear_ft_imu" type="imu">
      <always_on>1</always_on>
      <update_rate>100.000000</update_rate>
      <pose>3.46945e-18 0 0 -1.0903e-16 -1.44222e-16 -2.0944 </pose>
      <plugin name="ergocub_yarp_gazebo_plugin_IMU" filename="libgazebo_yarp_imu.so">
        <yarpConfigurationFile>model://ergoCub/conf/gazebo_ergocub_r_foot_rear_ft_sensor_inertial.ini</yarpConfigurationFile>
      </plugin>
    </sensor>
  </gazebo>
  <sensor name="r_foot_rear_ft_imu" type="accelerometer">
    <parent link="r_foot_rear"/>
    <origin rpy="-1.0903e-16 -1.44222e-16 -2.0944 " xyz="3.46945e-18 0 0"/>
  </sensor>
  <gazebo reference="l_shoulder_3">
    <sensor name="l_arm_ft_imu" type="imu">
      <always_on>1</always_on>
      <update_rate>100.000000</update_rate>
      <pose>-3.46945e-18 0 0 3.14159 1.94289e-16 -1.5708 </pose>
      <plugin name="ergocub_yarp_gazebo_plugin_IMU" filename="libgazebo_yarp_imu.so">
        <yarpConfigurationFile>model://ergoCub/conf/gazebo_ergocub_l_arm_ft_sensor_inertial.ini</yarpConfigurationFile>
      </plugin>
    </sensor>
  </gazebo>
  <sensor name="l_arm_ft_imu" type="accelerometer">
    <parent link="l_shoulder_3"/>
    <origin rpy="3.14159 1.94289e-16 -1.5708 " xyz="-3.46945e-18 0 0"/>
  </sensor>
  <gazebo reference="r_shoulder_3">
    <sensor name="r_arm_ft_imu" type="imu">
      <always_on>1</always_on>
      <update_rate>100.000000</update_rate>
      <pose>0 0 0 -3.14159 -2.77556e-17 1.5708 </pose>
      <plugin name="ergocub_yarp_gazebo_plugin_IMU" filename="libgazebo_yarp_imu.so">
        <yarpConfigurationFile>model://ergoCub/conf/gazebo_ergocub_r_arm_ft_sensor_inertial.ini</yarpConfigurationFile>
      </plugin>
    </sensor>
  </gazebo>
  <sensor name="r_arm_ft_imu" type="accelerometer">
    <parent link="r_shoulder_3"/>
    <origin rpy="-3.14159 -2.77556e-17 1.5708 " xyz="0 0 0"/>
  </sensor>
  <gazebo reference="l_hip_3">
    <sensor name="l_leg_ft_imu" type="imu">
      <always_on>1</always_on>
      <update_rate>100.000000</update_rate>
      <pose>5.20417e-18 0 0 3.14159 -2.02132e-15 2.61799 </pose>
      <plugin name="ergocub_yarp_gazebo_plugin_IMU" filename="libgazebo_yarp_imu.so">
        <yarpConfigurationFile>model://ergoCub/conf/gazebo_ergocub_l_leg_ft_sensor_inertial.ini</yarpConfigurationFile>
      </plugin>
    </sensor>
  </gazebo>
  <sensor name="l_leg_ft_imu" type="accelerometer">
    <parent link="l_hip_3"/>
    <origin rpy="3.14159 -2.02132e-15 2.61799 " xyz="5.20417e-18 0 0"/>
  </sensor>
  <gazebo reference="r_hip_3">
    <sensor name="r_leg_ft_imu" type="imu">
      <always_on>1</always_on>
      <update_rate>100.000000</update_rate>
      <pose>1.21431e-17 2.77556e-17 5.55112e-17 3.14159 2.98881e-16 -2.61799 </pose>
      <plugin name="ergocub_yarp_gazebo_plugin_IMU" filename="libgazebo_yarp_imu.so">
        <yarpConfigurationFile>model://ergoCub/conf/gazebo_ergocub_r_leg_ft_sensor_inertial.ini</yarpConfigurationFile>
      </plugin>
    </sensor>
  </gazebo>
  <sensor name="r_leg_ft_imu" type="accelerometer">
    <parent link="r_hip_3"/>
    <origin rpy="3.14159 2.98881e-16 -2.61799 " xyz="1.21431e-17 2.77556e-17 5.55112e-17"/>
  </sensor>
</robot>
